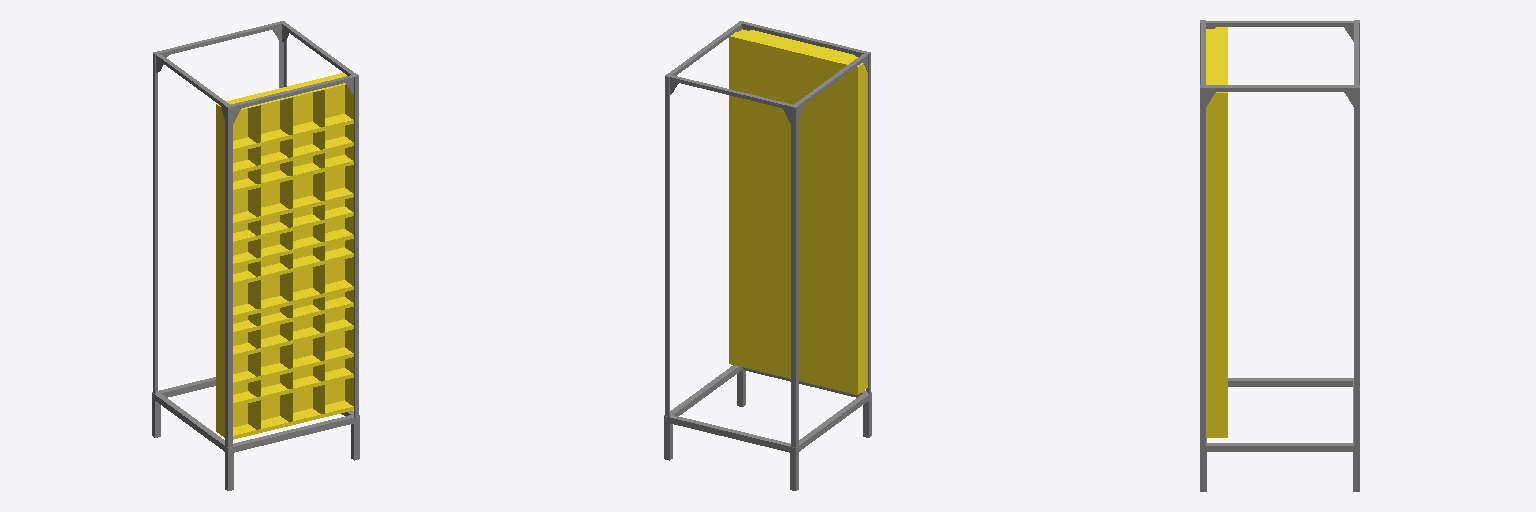
--- What the picture shows (computed from the rendered views, not written in the file) ---
The picture shows the robot from 3 angles, left to right: view 1: azimuth 30°, elevation 25°; view 2: azimuth 150°, elevation 25°; view 3: azimuth 270°, elevation 25°; orthographic projection.
Robot: pod1 — 380 links, 379 joints (379 fixed); root link pod_base_link; default pose: every joint at zero.
Visible links, largest first — view 1: pod_base_link, pod_bin_4m_back, pod_bin_3m_back, pod_bin_2m_back; view 2: pod_base_link, pod_bin_3m_back, pod_bin_4m_back, pod_bin_2m_back, pod_bin_1m_back, pod_bin_1f_back, pod_bin_1j_back, pod_bin_1a_back, pod_bin_4a_back, pod_bin_4f_back, pod_bin_4j_back, pod_bin_3a_back (+28 smaller); view 3: pod_base_link, pod_bin_4m_right, pod_bin_4j_right, pod_bin_4a_right, pod_bin_4f_right, pod_bin_4c_right.
Boxes of the visible links, x1,y1,x2,y2 form: pod_base_link: [152, 21, 359, 490]; pod_bin_4m_back: [325, 73, 344, 117]; pod_bin_3m_back: [291, 83, 312, 125]; pod_bin_2m_back: [250, 93, 279, 133]; pod_base_link: [664, 21, 871, 490]; pod_bin_3m_back: [761, 44, 792, 92]; pod_bin_4m_back: [729, 36, 760, 84]; pod_bin_2m_back: [793, 52, 824, 99]; pod_bin_1m_back: [825, 60, 857, 107]; pod_bin_1f_back: [825, 234, 857, 274]; pod_bin_1j_back: [825, 142, 857, 181]; pod_bin_1a_back: [825, 355, 857, 394]; pod_bin_4a_back: [729, 331, 760, 371]; pod_bin_4f_back: [729, 211, 760, 250]; pod_bin_4j_back: [729, 118, 760, 158]; pod_bin_3a_back: [761, 339, 790, 378]; pod_base_link: [1200, 20, 1359, 491]; pod_bin_4m_right: [1206, 93, 1226, 135]; pod_bin_4j_right: [1206, 179, 1226, 213]; pod_bin_4a_right: [1206, 404, 1226, 437]; pod_bin_4f_right: [1206, 277, 1226, 310]; pod_bin_4c_right: [1206, 352, 1226, 381].
Bounding box of the posed robot: 0.9398 × 0.9398 × 2.61 m (x, y, z).
1 mesh visuals loaded from 1 distinct referenced files (1 binary STL).

URDF robot description (pod1):
<?xml version="1.0" ?>
<!-- =================================================================================== -->
<!-- |    This document was autogenerated by xacro from pod1.xacro                     | -->
<!-- |    EDITING THIS FILE BY HAND IS NOT RECOMMENDED                                 | -->
<!-- =================================================================================== -->
<robot name="pod1">
  <material name="yellow_fabric">
    <color rgba="1 .91 .2 1"/>
  </material>
  <material name="aluminum">
    <color rgba=".6 .6 .6 1"/>
  </material>
  <link name="pod_base_link">
    <inertial>
      <mass value="30.0"/>
      <inertia ixx="0.0002835" ixy="0.0" ixz="0.0" iyy="0.0002835" iyz="0.0" izz="0.000324"/>
    </inertial>
    <visual>
      <origin rpy="0 0 0" xyz=".4699 .4699 1.303"/>
      <geometry>
        <mesh filename="package://tahoma_description/meshes/pod/pod_frame.stl"/>
      </geometry>
      <material name="aluminum"/>
    </visual>
    <collision>
      <origin rpy="0 0 0" xyz=".4699 .4699 1.303"/>
      <geometry>
        <mesh filename="package://tahoma_description/meshes/pod/pod_frame.stl"/>
      </geometry>
    </collision>
  </link>
  <link name="pod_brace"/>
  <joint name="pod_base_link_pod_brace_joint" type="fixed">
    <origin xyz="0 0 .294"/>
    <parent link="pod_base_link"/>
    <child link="pod_brace"/>
  </joint>
  <link name="pod_fabric_base"/>
  <joint name="pod_brace_pod_fabric_base" type="fixed">
    <origin xyz="0.01 0.01 .045"/>
    <parent link="pod_brace"/>
    <child link="pod_fabric_base"/>
  </joint>
  <link name="pod_shelf_a"/>
  <link name="pod_bin_1a"/>
  <link name="pod_bin_1a_bottom">
    <inertial>
      <mass value="0.01"/>
      <inertia ixx="0.0002835" ixy="0.0" ixz="0.0" iyy="0.0002835" iyz="0.0" izz="0.000324"/>
    </inertial>
    <visual>
      <origin xyz="0.1143 0.07619999999999999 -0.0005"/>
      <geometry>
        <box size="0.2286 0.15239999999999998 0.001"/>
      </geometry>
      <material name="yellow_fabric"/>
    </visual>
    <collision>
      <origin xyz="0.1143 0.07619999999999999 -0.0005"/>
      <geometry>
        <box size="0.2286 0.15239999999999998 0.001"/>
      </geometry>
    </collision>
  </link>
  <link name="pod_bin_1a_left">
    <inertial>
      <mass value="0.01"/>
      <inertia ixx="0.0002835" ixy="0.0" ixz="0.0" iyy="0.0002835" iyz="0.0" izz="0.000324"/>
    </inertial>
    <visual>
      <origin xyz="0.07619999999999999 0.111125 -0.0005"/>
      <geometry>
        <box size="0.15239999999999998 0.22225 0.001"/>
      </geometry>
      <material name="yellow_fabric"/>
    </visual>
    <collision>
      <origin xyz="0.07619999999999999 0.111125 -0.0005"/>
      <geometry>
        <box size="0.15239999999999998 0.22225 0.001"/>
      </geometry>
    </collision>
  </link>
  <link name="pod_bin_1a_right">
    <inertial>
      <mass value="0.01"/>
      <inertia ixx="0.0002835" ixy="0.0" ixz="0.0" iyy="0.0002835" iyz="0.0" izz="0.000324"/>
    </inertial>
    <visual>
      <origin xyz="0.07619999999999999 0.111125 -0.0005"/>
      <geometry>
        <box size="0.15239999999999998 0.22225 0.001"/>
      </geometry>
      <material name="yellow_fabric"/>
    </visual>
    <collision>
      <origin xyz="0.07619999999999999 0.111125 -0.0005"/>
      <geometry>
        <box size="0.15239999999999998 0.22225 0.001"/>
      </geometry>
    </collision>
  </link>
  <link name="pod_bin_1a_top">
    <inertial>
      <mass value="0.01"/>
      <inertia ixx="0.0002835" ixy="0.0" ixz="0.0" iyy="0.0002835" iyz="0.0" izz="0.000324"/>
    </inertial>
    <visual>
      <origin xyz="0.1143 0.07619999999999999 -0.0005"/>
      <geometry>
        <box size="0.2286 0.15239999999999998 0.001"/>
      </geometry>
      <material name="yellow_fabric"/>
    </visual>
    <collision>
      <origin xyz="0.1143 0.07619999999999999 -0.0005"/>
      <geometry>
        <box size="0.2286 0.15239999999999998 0.001"/>
      </geometry>
    </collision>
  </link>
  <link name="pod_bin_1a_back">
    <inertial>
      <mass value="0.01"/>
      <inertia ixx="0.0002835" ixy="0.0" ixz="0.0" iyy="0.0002835" iyz="0.0" izz="0.000324"/>
    </inertial>
    <visual>
      <origin xyz="0.1143 0.111125 -0.0005"/>
      <geometry>
        <box size="0.2286 0.22225 0.001"/>
      </geometry>
      <material name="yellow_fabric"/>
    </visual>
    <collision>
      <origin xyz="0.1143 0.111125 -0.0005"/>
      <geometry>
        <box size="0.2286 0.22225 0.001"/>
      </geometry>
    </collision>
  </link>
  <link name="pod_bin_1a_flap">
    <inertial>
      <mass value="0.01"/>
      <inertia ixx="0.0002835" ixy="0.0" ixz="0.0" iyy="0.0002835" iyz="0.0" izz="0.000324"/>
    </inertial>
    <visual>
      <origin xyz="0.1143 0.0127 -0.0005"/>
      <geometry>
        <box size="0.2286 0.0254 0.001"/>
      </geometry>
      <material name="yellow_fabric"/>
    </visual>
    <collision>
      <origin xyz="0.1143 0.0127 -0.0005"/>
      <geometry>
        <box size="0.2286 0.0254 0.001"/>
      </geometry>
    </collision>
  </link>
  <joint name="pod_bin_1a_pod_bin_1a_bottom" type="fixed">
    <parent link="pod_bin_1a"/>
    <child link="pod_bin_1a_bottom"/>
  </joint>
  <joint name="pod_bin_1a_pod_bin_1a_left" type="fixed">
    <origin rpy="1.5707963267948966 0 1.5707963267948966 " xyz="0 0 0"/>
    <parent link="pod_bin_1a"/>
    <child link="pod_bin_1a_left"/>
  </joint>
  <joint name="pod_bin_1a_pod_bin_1a_right" type="fixed">
    <origin rpy="1.5707963267948966 0 1.5707963267948966 " xyz="0.2286 0 0"/>
    <parent link="pod_bin_1a"/>
    <child link="pod_bin_1a_right"/>
  </joint>
  <joint name="pod_bin_1a_pod_bin_1a_top" type="fixed">
    <origin rpy="0 0 0" xyz="0 0 0.22225"/>
    <parent link="pod_bin_1a"/>
    <child link="pod_bin_1a_top"/>
  </joint>
  <joint name="pod_bin_1a_pod_bin_1a_back" type="fixed">
    <origin rpy="1.5707963267948966 0 0" xyz="0 0.15239999999999998 0"/>
    <parent link="pod_bin_1a"/>
    <child link="pod_bin_1a_back"/>
  </joint>
  <joint name="pod_bin_1a_pod_bin_1a_flap" type="fixed">
    <origin rpy="1.5707963267948966 0 0" xyz="0 0 0"/>
    <parent link="pod_bin_1a"/>
    <child link="pod_bin_1a_flap"/>
  </joint>
  <joint name="pod_shelf_a_pod_bin_1a_joint" type="fixed">
    <origin xyz="0.0 0 0"/>
    <parent link="pod_shelf_a"/>
    <child link="pod_bin_1a"/>
  </joint>
  <link name="pod_bin_2a"/>
  <link name="pod_bin_2a_bottom">
    <inertial>
      <mass value="0.01"/>
      <inertia ixx="0.0002835" ixy="0.0" ixz="0.0" iyy="0.0002835" iyz="0.0" izz="0.000324"/>
    </inertial>
    <visual>
      <origin xyz="0.1143 0.07619999999999999 -0.0005"/>
      <geometry>
        <box size="0.2286 0.15239999999999998 0.001"/>
      </geometry>
      <material name="yellow_fabric"/>
    </visual>
    <collision>
      <origin xyz="0.1143 0.07619999999999999 -0.0005"/>
      <geometry>
        <box size="0.2286 0.15239999999999998 0.001"/>
      </geometry>
    </collision>
  </link>
  <link name="pod_bin_2a_left">
    <inertial>
      <mass value="0.01"/>
      <inertia ixx="0.0002835" ixy="0.0" ixz="0.0" iyy="0.0002835" iyz="0.0" izz="0.000324"/>
    </inertial>
    <visual>
      <origin xyz="0.07619999999999999 0.111125 -0.0005"/>
      <geometry>
        <box size="0.15239999999999998 0.22225 0.001"/>
      </geometry>
      <material name="yellow_fabric"/>
    </visual>
    <collision>
      <origin xyz="0.07619999999999999 0.111125 -0.0005"/>
      <geometry>
        <box size="0.15239999999999998 0.22225 0.001"/>
      </geometry>
    </collision>
  </link>
  <link name="pod_bin_2a_right">
    <inertial>
      <mass value="0.01"/>
      <inertia ixx="0.0002835" ixy="0.0" ixz="0.0" iyy="0.0002835" iyz="0.0" izz="0.000324"/>
    </inertial>
    <visual>
      <origin xyz="0.07619999999999999 0.111125 -0.0005"/>
      <geometry>
        <box size="0.15239999999999998 0.22225 0.001"/>
      </geometry>
      <material name="yellow_fabric"/>
    </visual>
    <collision>
      <origin xyz="0.07619999999999999 0.111125 -0.0005"/>
      <geometry>
        <box size="0.15239999999999998 0.22225 0.001"/>
      </geometry>
    </collision>
  </link>
  <link name="pod_bin_2a_top">
    <inertial>
      <mass value="0.01"/>
      <inertia ixx="0.0002835" ixy="0.0" ixz="0.0" iyy="0.0002835" iyz="0.0" izz="0.000324"/>
    </inertial>
    <visual>
      <origin xyz="0.1143 0.07619999999999999 -0.0005"/>
      <geometry>
        <box size="0.2286 0.15239999999999998 0.001"/>
      </geometry>
      <material name="yellow_fabric"/>
    </visual>
    <collision>
      <origin xyz="0.1143 0.07619999999999999 -0.0005"/>
      <geometry>
        <box size="0.2286 0.15239999999999998 0.001"/>
      </geometry>
    </collision>
  </link>
  <link name="pod_bin_2a_back">
    <inertial>
      <mass value="0.01"/>
      <inertia ixx="0.0002835" ixy="0.0" ixz="0.0" iyy="0.0002835" iyz="0.0" izz="0.000324"/>
    </inertial>
    <visual>
      <origin xyz="0.1143 0.111125 -0.0005"/>
      <geometry>
        <box size="0.2286 0.22225 0.001"/>
      </geometry>
      <material name="yellow_fabric"/>
    </visual>
    <collision>
      <origin xyz="0.1143 0.111125 -0.0005"/>
      <geometry>
        <box size="0.2286 0.22225 0.001"/>
      </geometry>
    </collision>
  </link>
  <link name="pod_bin_2a_flap">
    <inertial>
      <mass value="0.01"/>
      <inertia ixx="0.0002835" ixy="0.0" ixz="0.0" iyy="0.0002835" iyz="0.0" izz="0.000324"/>
    </inertial>
    <visual>
      <origin xyz="0.1143 0.0127 -0.0005"/>
      <geometry>
        <box size="0.2286 0.0254 0.001"/>
      </geometry>
      <material name="yellow_fabric"/>
    </visual>
    <collision>
      <origin xyz="0.1143 0.0127 -0.0005"/>
      <geometry>
        <box size="0.2286 0.0254 0.001"/>
      </geometry>
    </collision>
  </link>
  <joint name="pod_bin_2a_pod_bin_2a_bottom" type="fixed">
    <parent link="pod_bin_2a"/>
    <child link="pod_bin_2a_bottom"/>
  </joint>
  <joint name="pod_bin_2a_pod_bin_2a_left" type="fixed">
    <origin rpy="1.5707963267948966 0 1.5707963267948966 " xyz="0 0 0"/>
    <parent link="pod_bin_2a"/>
    <child link="pod_bin_2a_left"/>
  </joint>
  <joint name="pod_bin_2a_pod_bin_2a_right" type="fixed">
    <origin rpy="1.5707963267948966 0 1.5707963267948966 " xyz="0.2286 0 0"/>
    <parent link="pod_bin_2a"/>
    <child link="pod_bin_2a_right"/>
  </joint>
  <joint name="pod_bin_2a_pod_bin_2a_top" type="fixed">
    <origin rpy="0 0 0" xyz="0 0 0.22225"/>
    <parent link="pod_bin_2a"/>
    <child link="pod_bin_2a_top"/>
  </joint>
  <joint name="pod_bin_2a_pod_bin_2a_back" type="fixed">
    <origin rpy="1.5707963267948966 0 0" xyz="0 0.15239999999999998 0"/>
    <parent link="pod_bin_2a"/>
    <child link="pod_bin_2a_back"/>
  </joint>
  <joint name="pod_bin_2a_pod_bin_2a_flap" type="fixed">
    <origin rpy="1.5707963267948966 0 0" xyz="0 0 0"/>
    <parent link="pod_bin_2a"/>
    <child link="pod_bin_2a_flap"/>
  </joint>
  <joint name="pod_shelf_a_pod_bin_2a_joint" type="fixed">
    <origin xyz="0.2286 0 0"/>
    <parent link="pod_shelf_a"/>
    <child link="pod_bin_2a"/>
  </joint>
  <link name="pod_bin_3a"/>
  <link name="pod_bin_3a_bottom">
    <inertial>
      <mass value="0.01"/>
      <inertia ixx="0.0002835" ixy="0.0" ixz="0.0" iyy="0.0002835" iyz="0.0" izz="0.000324"/>
    </inertial>
    <visual>
      <origin xyz="0.1143 0.07619999999999999 -0.0005"/>
      <geometry>
        <box size="0.2286 0.15239999999999998 0.001"/>
      </geometry>
      <material name="yellow_fabric"/>
    </visual>
    <collision>
      <origin xyz="0.1143 0.07619999999999999 -0.0005"/>
      <geometry>
        <box size="0.2286 0.15239999999999998 0.001"/>
      </geometry>
    </collision>
  </link>
  <link name="pod_bin_3a_left">
    <inertial>
      <mass value="0.01"/>
      <inertia ixx="0.0002835" ixy="0.0" ixz="0.0" iyy="0.0002835" iyz="0.0" izz="0.000324"/>
    </inertial>
    <visual>
      <origin xyz="0.07619999999999999 0.111125 -0.0005"/>
      <geometry>
        <box size="0.15239999999999998 0.22225 0.001"/>
      </geometry>
      <material name="yellow_fabric"/>
    </visual>
    <collision>
      <origin xyz="0.07619999999999999 0.111125 -0.0005"/>
      <geometry>
        <box size="0.15239999999999998 0.22225 0.001"/>
      </geometry>
    </collision>
  </link>
  <link name="pod_bin_3a_right">
    <inertial>
      <mass value="0.01"/>
      <inertia ixx="0.0002835" ixy="0.0" ixz="0.0" iyy="0.0002835" iyz="0.0" izz="0.000324"/>
    </inertial>
    <visual>
      <origin xyz="0.07619999999999999 0.111125 -0.0005"/>
      <geometry>
        <box size="0.15239999999999998 0.22225 0.001"/>
      </geometry>
      <material name="yellow_fabric"/>
    </visual>
    <collision>
      <origin xyz="0.07619999999999999 0.111125 -0.0005"/>
      <geometry>
        <box size="0.15239999999999998 0.22225 0.001"/>
      </geometry>
    </collision>
  </link>
  <link name="pod_bin_3a_top">
    <inertial>
      <mass value="0.01"/>
      <inertia ixx="0.0002835" ixy="0.0" ixz="0.0" iyy="0.0002835" iyz="0.0" izz="0.000324"/>
    </inertial>
    <visual>
      <origin xyz="0.1143 0.07619999999999999 -0.0005"/>
      <geometry>
        <box size="0.2286 0.15239999999999998 0.001"/>
      </geometry>
      <material name="yellow_fabric"/>
    </visual>
    <collision>
      <origin xyz="0.1143 0.07619999999999999 -0.0005"/>
      <geometry>
        <box size="0.2286 0.15239999999999998 0.001"/>
      </geometry>
    </collision>
  </link>
  <link name="pod_bin_3a_back">
    <inertial>
      <mass value="0.01"/>
      <inertia ixx="0.0002835" ixy="0.0" ixz="0.0" iyy="0.0002835" iyz="0.0" izz="0.000324"/>
    </inertial>
    <visual>
      <origin xyz="0.1143 0.111125 -0.0005"/>
      <geometry>
        <box size="0.2286 0.22225 0.001"/>
      </geometry>
      <material name="yellow_fabric"/>
    </visual>
    <collision>
      <origin xyz="0.1143 0.111125 -0.0005"/>
      <geometry>
        <box size="0.2286 0.22225 0.001"/>
      </geometry>
    </collision>
  </link>
  <link name="pod_bin_3a_flap">
    <inertial>
      <mass value="0.01"/>
      <inertia ixx="0.0002835" ixy="0.0" ixz="0.0" iyy="0.0002835" iyz="0.0" izz="0.000324"/>
    </inertial>
    <visual>
      <origin xyz="0.1143 0.0127 -0.0005"/>
      <geometry>
        <box size="0.2286 0.0254 0.001"/>
      </geometry>
      <material name="yellow_fabric"/>
    </visual>
    <collision>
      <origin xyz="0.1143 0.0127 -0.0005"/>
      <geometry>
        <box size="0.2286 0.0254 0.001"/>
      </geometry>
    </collision>
  </link>
  <joint name="pod_bin_3a_pod_bin_3a_bottom" type="fixed">
    <parent link="pod_bin_3a"/>
    <child link="pod_bin_3a_bottom"/>
  </joint>
  <joint name="pod_bin_3a_pod_bin_3a_left" type="fixed">
    <origin rpy="1.5707963267948966 0 1.5707963267948966 " xyz="0 0 0"/>
    <parent link="pod_bin_3a"/>
    <child link="pod_bin_3a_left"/>
  </joint>
  <joint name="pod_bin_3a_pod_bin_3a_right" type="fixed">
    <origin rpy="1.5707963267948966 0 1.5707963267948966 " xyz="0.2286 0 0"/>
    <parent link="pod_bin_3a"/>
    <child link="pod_bin_3a_right"/>
  </joint>
  <joint name="pod_bin_3a_pod_bin_3a_top" type="fixed">
    <origin rpy="0 0 0" xyz="0 0 0.22225"/>
    <parent link="pod_bin_3a"/>
    <child link="pod_bin_3a_top"/>
  </joint>
  <joint name="pod_bin_3a_pod_bin_3a_back" type="fixed">
    <origin rpy="1.5707963267948966 0 0" xyz="0 0.15239999999999998 0"/>
    <parent link="pod_bin_3a"/>
    <child link="pod_bin_3a_back"/>
  </joint>
  <joint name="pod_bin_3a_pod_bin_3a_flap" type="fixed">
    <origin rpy="1.5707963267948966 0 0" xyz="0 0 0"/>
    <parent link="pod_bin_3a"/>
    <child link="pod_bin_3a_flap"/>
  </joint>
  <joint name="pod_shelf_a_pod_bin_3a_joint" type="fixed">
    <origin xyz="0.4572 0 0"/>
    <parent link="pod_shelf_a"/>
    <child link="pod_bin_3a"/>
  </joint>
  <link name="pod_bin_4a"/>
  <link name="pod_bin_4a_bottom">
    <inertial>
      <mass value="0.01"/>
      <inertia ixx="0.0002835" ixy="0.0" ixz="0.0" iyy="0.0002835" iyz="0.0" izz="0.000324"/>
    </inertial>
    <visual>
      <origin xyz="0.1143 0.07619999999999999 -0.0005"/>
      <geometry>
        <box size="0.2286 0.15239999999999998 0.001"/>
      </geometry>
      <material name="yellow_fabric"/>
    </visual>
    <collision>
      <origin xyz="0.1143 0.07619999999999999 -0.0005"/>
      <geometry>
        <box size="0.2286 0.15239999999999998 0.001"/>
      </geometry>
    </collision>
  </link>
  <link name="pod_bin_4a_left">
    <inertial>
      <mass value="0.01"/>
      <inertia ixx="0.0002835" ixy="0.0" ixz="0.0" iyy="0.0002835" iyz="0.0" izz="0.000324"/>
    </inertial>
    <visual>
      <origin xyz="0.07619999999999999 0.111125 -0.0005"/>
      <geometry>
        <box size="0.15239999999999998 0.22225 0.001"/>
      </geometry>
      <material name="yellow_fabric"/>
    </visual>
    <collision>
      <origin xyz="0.07619999999999999 0.111125 -0.0005"/>
      <geometry>
        <box size="0.15239999999999998 0.22225 0.001"/>
      </geometry>
    </collision>
  </link>
  <link name="pod_bin_4a_right">
    <inertial>
      <mass value="0.01"/>
      <inertia ixx="0.0002835" ixy="0.0" ixz="0.0" iyy="0.0002835" iyz="0.0" izz="0.000324"/>
    </inertial>
    <visual>
      <origin xyz="0.07619999999999999 0.111125 -0.0005"/>
      <geometry>
        <box size="0.15239999999999998 0.22225 0.001"/>
      </geometry>
      <material name="yellow_fabric"/>
    </visual>
    <collision>
      <origin xyz="0.07619999999999999 0.111125 -0.0005"/>
      <geometry>
        <box size="0.15239999999999998 0.22225 0.001"/>
      </geometry>
    </collision>
  </link>
  <link name="pod_bin_4a_top">
    <inertial>
      <mass value="0.01"/>
      <inertia ixx="0.0002835" ixy="0.0" ixz="0.0" iyy="0.0002835" iyz="0.0" izz="0.000324"/>
    </inertial>
    <visual>
      <origin xyz="0.1143 0.07619999999999999 -0.0005"/>
      <geometry>
        <box size="0.2286 0.15239999999999998 0.001"/>
      </geometry>
      <material name="yellow_fabric"/>
    </visual>
    <collision>
      <origin xyz="0.1143 0.07619999999999999 -0.0005"/>
      <geometry>
        <box size="0.2286 0.15239999999999998 0.001"/>
      </geometry>
    </collision>
  </link>
  <link name="pod_bin_4a_back">
    <inertial>
      <mass value="0.01"/>
      <inertia ixx="0.0002835" ixy="0.0" ixz="0.0" iyy="0.0002835" iyz="0.0" izz="0.000324"/>
    </inertial>
    <visual>
      <origin xyz="0.1143 0.111125 -0.0005"/>
      <geometry>
        <box size="0.2286 0.22225 0.001"/>
      </geometry>
      <material name="yellow_fabric"/>
    </visual>
    <collision>
      <origin xyz="0.1143 0.111125 -0.0005"/>
      <geometry>
        <box size="0.2286 0.22225 0.001"/>
      </geometry>
    </collision>
  </link>
  <link name="pod_bin_4a_flap">
    <inertial>
      <mass value="0.01"/>
      <inertia ixx="0.0002835" ixy="0.0" ixz="0.0" iyy="0.0002835" iyz="0.0" izz="0.000324"/>
    </inertial>
    <visual>
      <origin xyz="0.1143 0.0127 -0.0005"/>
      <geometry>
        <box size="0.2286 0.0254 0.001"/>
      </geometry>
      <material name="yellow_fabric"/>
    </visual>
    <collision>
      <origin xyz="0.1143 0.0127 -0.0005"/>
      <geometry>
        <box size="0.2286 0.0254 0.001"/>
      </geometry>
    </collision>
  </link>
  <joint name="pod_bin_4a_pod_bin_4a_bottom" type="fixed">
    <parent link="pod_bin_4a"/>
    <child link="pod_bin_4a_bottom"/>
  </joint>
  <joint name="pod_bin_4a_pod_bin_4a_left" type="fixed">
    <origin rpy="1.5707963267948966 0 1.5707963267948966 " xyz="0 0 0"/>
    <parent link="pod_bin_4a"/>
    <child link="pod_bin_4a_left"/>
  </joint>
  <joint name="pod_bin_4a_pod_bin_4a_right" type="fixed">
    <origin rpy="1.5707963267948966 0 1.5707963267948966 " xyz="0.2286 0 0"/>
    <parent link="pod_bin_4a"/>
    <child link="pod_bin_4a_right"/>
  </joint>
  <joint name="pod_bin_4a_pod_bin_4a_top" type="fixed">
    <origin rpy="0 0 0" xyz="0 0 0.22225"/>
    <parent link="pod_bin_4a"/>
    <child link="pod_bin_4a_top"/>
  </joint>
  <joint name="pod_bin_4a_pod_bin_4a_back" type="fixed">
    <origin rpy="1.5707963267948966 0 0" xyz="0 0.15239999999999998 0"/>
    <parent link="pod_bin_4a"/>
    <child link="pod_bin_4a_back"/>
  </joint>
  <joint name="pod_bin_4a_pod_bin_4a_flap" type="fixed">
    <origin rpy="1.5707963267948966 0 0" xyz="0 0 0"/>
    <parent link="pod_bin_4a"/>
    <child link="pod_bin_4a_flap"/>
  </joint>
  <joint name="pod_shelf_a_pod_bin_4a_joint" type="fixed">
    <origin xyz="0.6858 0 0"/>
    <parent link="pod_shelf_a"/>
    <child link="pod_bin_4a"/>
  </joint>
  <joint name="pod_fabric_base_pod_shelf_a_joint" type="fixed">
    <origin xyz="0 0 0"/>
    <parent link="pod_fabric_base"/>
    <child link="pod_shelf_a"/>
  </joint>
  <link name="pod_shelf_b"/>
  <link name="pod_bin_1b"/>
  <link name="pod_bin_1b_bottom">
    <inertial>
      <mass value="0.01"/>
      <inertia ixx="0.0002835" ixy="0.0" ixz="0.0" iyy="0.0002835" iyz="0.0" izz="0.000324"/>
    </inertial>
    <visual>
      <origin xyz="0.1143 0.07619999999999999 -0.0005"/>
      <geometry>
        <box size="0.2286 0.15239999999999998 0.001"/>
      </geometry>
      <material name="yellow_fabric"/>
    </visual>
    <collision>
      <origin xyz="0.1143 0.07619999999999999 -0.0005"/>
      <geometry>
        <box size="0.2286 0.15239999999999998 0.001"/>
      </geometry>
    </collision>
  </link>
  <link name="pod_bin_1b_left">
    <inertial>
      <mass value="0.01"/>
      <inertia ixx="0.0002835" ixy="0.0" ixz="0.0" iyy="0.0002835" iyz="0.0" izz="0.000324"/>
    </inertial>
    <visual>
      <origin xyz="0.07619999999999999 0.06985 -0.0005"/>
      <geometry>
        <box size="0.15239999999999998 0.1397 0.001"/>
      </geometry>
      <material name="yellow_fabric"/>
    </visual>
    <collision>
      <origin xyz="0.07619999999999999 0.06985 -0.0005"/>
      <geometry>
        <box size="0.15239999999999998 0.1397 0.001"/>
      </geometry>
    </collision>
  </link>
  <link name="pod_bin_1b_right">
    <inertial>
      <mass value="0.01"/>
      <inertia ixx="0.0002835" ixy="0.0" ixz="0.0" iyy="0.0002835" iyz="0.0" izz="0.000324"/>
    </inertial>
    <visual>
      <origin xyz="0.07619999999999999 0.06985 -0.0005"/>
      <geometry>
        <box size="0.15239999999999998 0.1397 0.001"/>
      </geometry>
      <material name="yellow_fabric"/>
    </visual>
    <collision>
      <origin xyz="0.07619999999999999 0.06985 -0.0005"/>
      <geometry>
        <box size="0.15239999999999998 0.1397 0.001"/>
      </geometry>
    </collision>
  </link>
  <link name="pod_bin_1b_top">
    <inertial>
      <mass value="0.01"/>
      <inertia ixx="0.0002835" ixy="0.0" ixz="0.0" iyy="0.0002835" iyz="0.0" izz="0.000324"/>
    </inertial>
    <visual>
      <origin xyz="0.1143 0.07619999999999999 -0.0005"/>
      <geometry>
        <box size="0.2286 0.15239999999999998 0.001"/>
      </geometry>
      <material name="yellow_fabric"/>
    </visual>
    <collision>
      <origin xyz="0.1143 0.07619999999999999 -0.0005"/>
      <geometry>
        <box size="0.2286 0.15239999999999998 0.001"/>
      </geometry>
    </collision>
  </link>
  <link name="pod_bin_1b_back">
    <inertial>
      <mass value="0.01"/>
      <inertia ixx="0.0002835" ixy="0.0" ixz="0.0" iyy="0.0002835" iyz="0.0" izz="0.000324"/>
    </inertial>
    <visual>
      <origin xyz="0.1143 0.06985 -0.0005"/>
      <geometry>
        <box size="0.2286 0.1397 0.001"/>
      </geometry>
      <material name="yellow_fabric"/>
    </visual>
    <collision>
      <origin xyz="0.1143 0.06985 -0.0005"/>
      <geometry>
        <box size="0.2286 0.1397 0.001"/>
      </geometry>
    </collision>
  </link>
  <link name="pod_bin_1b_flap">
    <inertial>
      <mass value="0.01"/>
      <inertia ixx="0.0002835" ixy="0.0" ixz="0.0" iyy="0.0002835" iyz="0.0" izz="0.000324"/>
    </inertial>
    <visual>
      <origin xyz="0.1143 0.0127 -0.0005"/>
      <geometry>
        <box size="0.2286 0.0254 0.001"/>
      </geometry>
      <material name="yellow_fabric"/>
    </visual>
    <collision>
      <origin xyz="0.1143 0.0127 -0.0005"/>
      <geometry>
        <box size="0.2286 0.0254 0.001"/>
      </geometry>
    </collision>
  </link>
  <joint name="pod_bin_1b_pod_bin_1b_bottom" type="fixed">
    <parent link="pod_bin_1b"/>
    <child link="pod_bin_1b_bottom"/>
  </joint>
  <joint name="pod_bin_1b_pod_bin_1b_left" type="fixed">
    <origin rpy="1.5707963267948966 0 1.5707963267948966 " xyz="0 0 0"/>
    <parent link="pod_bin_1b"/>
    <child link="pod_bin_1b_left"/>
  </joint>
  <joint name="pod_bin_1b_pod_bin_1b_right" type="fixed">
    <origin rpy="1.5707963267948966 0 1.5707963267948966 " xyz="0.2286 0 0"/>
    <parent link="pod_bin_1b"/>
    <child link="pod_bin_1b_right"/>
  </joint>
  <joint name="pod_bin_1b_pod_bin_1b_top" type="fixed">
    <origin rpy="0 0 0" xyz="0 0 0.1397"/>
    <parent link="pod_bin_1b"/>
    <child link="pod_bin_1b_top"/>
  </joint>
  <joint name="pod_bin_1b_pod_bin_1b_back" type="fixed">
    <origin rpy="1.5707963267948966 0 0" xyz="0 0.15239999999999998 0"/>
    <parent link="pod_bin_1b"/>
    <child link="pod_bin_1b_back"/>
  </joint>
  <joint name="pod_bin_1b_pod_bin_1b_flap" type="fixed">
    <origin rpy="1.5707963267948966 0 0" xyz="0 0 0"/>
    <parent link="pod_bin_1b"/>
    <child link="pod_bin_1b_flap"/>
  </joint>
  <joint name="pod_shelf_b_pod_bin_1b_joint" type="fixed">
    <origin xyz="0.0 0 0"/>
    <parent link="pod_shelf_b"/>
    <child link="pod_bin_1b"/>
  </joint>
  <link name="pod_bin_2b"/>
  <link name="pod_bin_2b_bottom">
    <inertial>
      <mass value="0.01"/>
      <inertia ixx="0.0002835" ixy="0.0" ixz="0.0" iyy="0.0002835" iyz="0.0" izz="0.000324"/>
    </inertial>
    <visual>
      <origin xyz="0.1143 0.07619999999999999 -0.0005"/>
      <geometry>
        <box size="0.2286 0.15239999999999998 0.001"/>
      </geometry>
      <material name="yellow_fabric"/>
    </visual>
    <collision>
      <origin xyz="0.1143 0.07619999999999999 -0.0005"/>
      <geometry>
        <box size="0.2286 0.15239999999999998 0.001"/>
      </geometry>
    </collision>
  </link>
  <link name="pod_bin_2b_left">
    <inertial>
      <mass value="0.01"/>
      <inertia ixx="0.0002835" ixy="0.0" ixz="0.0" iyy="0.0002835" iyz="0.0" izz="0.000324"/>
    </inertial>
    <visual>
      <origin xyz="0.07619999999999999 0.06985 -0.0005"/>
      <geometry>
        <box size="0.15239999999999998 0.1397 0.001"/>
      </geometry>
      <material name="yellow_fabric"/>
    </visual>
    <collision>
      <origin xyz="0.07619999999999999 0.06985 -0.0005"/>
      <geometry>
        <box size="0.15239999999999998 0.1397 0.001"/>
      </geometry>
    </collision>
  </link>
  <link name="pod_bin_2b_right">
    <inertial>
      <mass value="0.01"/>
      <inertia ixx="0.0002835" ixy="0.0" ixz="0.0" iyy="0.0002835" iyz="0.0" izz="0.000324"/>
    </inertial>
    <visual>
      <origin xyz="0.07619999999999999 0.06985 -0.0005"/>
      <geometry>
        <box size="0.15239999999999998 0.1397 0.001"/>
      </geometry>
      <material name="yellow_fabric"/>
    </visual>
    <collision>
      <origin xyz="0.07619999999999999 0.06985 -0.0005"/>
      <geometry>
        <box size="0.15239999999999998 0.1397 0.001"/>
      </geometry>
    </collision>
  </link>
  <link name="pod_bin_2b_top">
    <inertial>
      <mass value="0.01"/>
      <inertia ixx="0.0002835" ixy="0.0" ixz="0.0" iyy="0.0002835" iyz="0.0" izz="0.000324"/>
    </inertial>
    <visual>
      <origin xyz="0.1143 0.07619999999999999 -0.0005"/>
      <geometry>
        <box size="0.2286 0.15239999999999998 0.001"/>
      </geometry>
      <material name="yellow_fabric"/>
    </visual>
    <collision>
      <origin xyz="0.1143 0.07619999999999999 -0.0005"/>
      <geometry>
        <box size="0.2286 0.15239999999999998 0.001"/>
      </geometry>
    </collision>
  </link>
  <link name="pod_bin_2b_back">
    <inertial>
      <mass value="0.01"/>
      <inertia ixx="0.0002835" ixy="0.0" ixz="0.0" iyy="0.0002835" iyz="0.0" izz="0.000324"/>
    </inertial>
    <visual>
      <origin xyz="0.1143 0.06985 -0.0005"/>
      <geometry>
        <box size="0.2286 0.1397 0.001"/>
      </geometry>
      <material name="yellow_fabric"/>
    </visual>
    <collision>
      <origin xyz="0.1143 0.06985 -0.0005"/>
      <geometry>
        <box size="0.2286 0.1397 0.001"/>
      </geometry>
    </collision>
  </link>
  <link name="pod_bin_2b_flap">
    <inertial>
      <mass value="0.01"/>
      <inertia ixx="0.0002835" ixy="0.0" ixz="0.0" iyy="0.0002835" iyz="0.0" izz="0.000324"/>
    </inertial>
    <visual>
      <origin xyz="0.1143 0.0127 -0.0005"/>
      <geometry>
        <box size="0.2286 0.0254 0.001"/>
      </geometry>
      <material name="yellow_fabric"/>
    </visual>
    <collision>
      <origin xyz="0.1143 0.0127 -0.0005"/>
      <geometry>
        <box size="0.2286 0.0254 0.001"/>
      </geometry>
    </collision>
  </link>
  <joint name="pod_bin_2b_pod_bin_2b_bottom" type="fixed">
    <parent link="pod_bin_2b"/>
    <child link="pod_bin_2b_bottom"/>
  </joint>
  <joint name="pod_bin_2b_pod_bin_2b_left" type="fixed">
    <origin rpy="1.5707963267948966 0 1.5707963267948966 " xyz="0 0 0"/>
    <parent link="pod_bin_2b"/>
    <child link="pod_bin_2b_left"/>
  </joint>
  <joint name="pod_bin_2b_pod_bin_2b_right" type="fixed">
    <origin rpy="1.5707963267948966 0 1.5707963267948966 " xyz="0.2286 0 0"/>
    <parent link="pod_bin_2b"/>
    <child link="pod_bin_2b_right"/>
  </joint>
  <joint name="pod_bin_2b_pod_bin_2b_top" type="fixed">
    <origin rpy="0 0 0" xyz="0 0 0.1397"/>
    <parent link="pod_bin_2b"/>
    <child link="pod_bin_2b_top"/>
  </joint>
  <joint name="pod_bin_2b_pod_bin_2b_back" type="fixed">
    <origin rpy="1.5707963267948966 0 0" xyz="0 0.15239999999999998 0"/>
    <parent link="pod_bin_2b"/>
    <child link="pod_bin_2b_back"/>
  </joint>
  <joint name="pod_bin_2b_pod_bin_2b_flap" type="fixed">
    <origin rpy="1.5707963267948966 0 0" xyz="0 0 0"/>
    <parent link="pod_bin_2b"/>
    <child link="pod_bin_2b_flap"/>
  </joint>
  <joint name="pod_shelf_b_pod_bin_2b_joint" type="fixed">
    <origin xyz="0.2286 0 0"/>
    <parent link="pod_shelf_b"/>
    <child link="pod_bin_2b"/>
  </joint>
  <link name="pod_bin_3b"/>
  <link name="pod_bin_3b_bottom">
    <inertial>
      <mass value="0.01"/>
      <inertia ixx="0.0002835" ixy="0.0" ixz="0.0" iyy="0.0002835" iyz="0.0" izz="0.000324"/>
    </inertial>
    <visual>
      <origin xyz="0.1143 0.07619999999999999 -0.0005"/>
      <geometry>
        <box size="0.2286 0.15239999999999998 0.001"/>
      </geometry>
      <material name="yellow_fabric"/>
    </visual>
    <collision>
      <origin xyz="0.1143 0.07619999999999999 -0.0005"/>
      <geometry>
        <box size="0.2286 0.15239999999999998 0.001"/>
      </geometry>
    </collision>
  </link>
  <link name="pod_bin_3b_left">
    <inertial>
      <mass value="0.01"/>
      <inertia ixx="0.0002835" ixy="0.0" ixz="0.0" iyy="0.0002835" iyz="0.0" izz="0.000324"/>
    </inertial>
    <visual>
      <origin xyz="0.07619999999999999 0.06985 -0.0005"/>
      <geometry>
        <box size="0.15239999999999998 0.1397 0.001"/>
      </geometry>
      <material name="yellow_fabric"/>
    </visual>
    <collision>
      <origin xyz="0.07619999999999999 0.06985 -0.0005"/>
      <geometry>
        <box size="0.15239999999999998 0.1397 0.001"/>
      </geometry>
    </collision>
  </link>
  <link name="pod_bin_3b_right">
    <inertial>
      <mass value="0.01"/>
      <inertia ixx="0.0002835" ixy="0.0" ixz="0.0" iyy="0.0002835" iyz="0.0" izz="0.000324"/>
    </inertial>
    <visual>
      <origin xyz="0.07619999999999999 0.06985 -0.0005"/>
      <geometry>
        <box size="0.15239999999999998 0.1397 0.001"/>
      </geometry>
      <material name="yellow_fabric"/>
    </visual>
    <collision>
      <origin xyz="0.07619999999999999 0.06985 -0.0005"/>
      <geometry>
        <box size="0.15239999999999998 0.1397 0.001"/>
      </geometry>
    </collision>
  </link>
  <link name="pod_bin_3b_top">
    <inertial>
      <mass value="0.01"/>
      <inertia ixx="0.0002835" ixy="0.0" ixz="0.0" iyy="0.0002835" iyz="0.0" izz="0.000324"/>
    </inertial>
    <visual>
      <origin xyz="0.1143 0.07619999999999999 -0.0005"/>
      <geometry>
        <box size="0.2286 0.15239999999999998 0.001"/>
      </geometry>
      <material name="yellow_fabric"/>
    </visual>
    <collision>
      <origin xyz="0.1143 0.07619999999999999 -0.0005"/>
      <geometry>
        <box size="0.2286 0.15239999999999998 0.001"/>
      </geometry>
    </collision>
  </link>
  <link name="pod_bin_3b_back">
    <inertial>
      <mass value="0.01"/>
      <inertia ixx="0.0002835" ixy="0.0" ixz="0.0" iyy="0.0002835" iyz="0.0" izz="0.000324"/>
    </inertial>
    <visual>
      <origin xyz="0.1143 0.06985 -0.0005"/>
      <geometry>
        <box size="0.2286 0.1397 0.001"/>
      </geometry>
      <material name="yellow_fabric"/>
    </visual>
    <collision>
      <origin xyz="0.1143 0.06985 -0.0005"/>
      <geometry>
        <box size="0.2286 0.1397 0.001"/>
      </geometry>
    </collision>
  </link>
  <link name="pod_bin_3b_flap">
    <inertial>
      <mass value="0.01"/>
      <inertia ixx="0.0002835" ixy="0.0" ixz="0.0" iyy="0.0002835" iyz="0.0" izz="0.000324"/>
    </inertial>
    <visual>
      <origin xyz="0.1143 0.0127 -0.0005"/>
      <geometry>
        <box size="0.2286 0.0254 0.001"/>
      </geometry>
      <material name="yellow_fabric"/>
    </visual>
    <collision>
      <origin xyz="0.1143 0.0127 -0.0005"/>
      <geometry>
        <box size="0.2286 0.0254 0.001"/>
      </geometry>
    </collision>
  </link>
  <joint name="pod_bin_3b_pod_bin_3b_bottom" type="fixed">
    <parent link="pod_bin_3b"/>
    <child link="pod_bin_3b_bottom"/>
  </joint>
  <joint name="pod_bin_3b_pod_bin_3b_left" type="fixed">
    <origin rpy="1.5707963267948966 0 1.5707963267948966 " xyz="0 0 0"/>
    <parent link="pod_bin_3b"/>
    <child link="pod_bin_3b_left"/>
  </joint>
  <joint name="pod_bin_3b_pod_bin_3b_right" type="fixed">
    <origin rpy="1.5707963267948966 0 1.5707963267948966 " xyz="0.2286 0 0"/>
    <parent link="pod_bin_3b"/>
    <child link="pod_bin_3b_right"/>
  </joint>
  <joint name="pod_bin_3b_pod_bin_3b_top" type="fixed">
    <origin rpy="0 0 0" xyz="0 0 0.1397"/>
    <parent link="pod_bin_3b"/>
    <child link="pod_bin_3b_top"/>
  </joint>
  <joint name="pod_bin_3b_pod_bin_3b_back" type="fixed">
    <origin rpy="1.5707963267948966 0 0" xyz="0 0.15239999999999998 0"/>
    <parent link="pod_bin_3b"/>
    <child link="pod_bin_3b_back"/>
  </joint>
  <joint name="pod_bin_3b_pod_bin_3b_flap" type="fixed">
    <origin rpy="1.5707963267948966 0 0" xyz="0 0 0"/>
    <parent link="pod_bin_3b"/>
    <child link="pod_bin_3b_flap"/>
  </joint>
  <joint name="pod_shelf_b_pod_bin_3b_joint" type="fixed">
    <origin xyz="0.4572 0 0"/>
    <parent link="pod_shelf_b"/>
    <child link="pod_bin_3b"/>
  </joint>
  <link name="pod_bin_4b"/>
  <link name="pod_bin_4b_bottom">
    <inertial>
      <mass value="0.01"/>
      <inertia ixx="0.0002835" ixy="0.0" ixz="0.0" iyy="0.0002835" iyz="0.0" izz="0.000324"/>
    </inertial>
    <visual>
      <origin xyz="0.1143 0.07619999999999999 -0.0005"/>
      <geometry>
        <box size="0.2286 0.15239999999999998 0.001"/>
      </geometry>
      <material name="yellow_fabric"/>
    </visual>
    <collision>
      <origin xyz="0.1143 0.07619999999999999 -0.0005"/>
      <geometry>
        <box size="0.2286 0.15239999999999998 0.001"/>
      </geometry>
    </collision>
  </link>
  <link name="pod_bin_4b_left">
    <inertial>
      <mass value="0.01"/>
      <inertia ixx="0.0002835" ixy="0.0" ixz="0.0" iyy="0.0002835" iyz="0.0" izz="0.000324"/>
    </inertial>
    <visual>
      <origin xyz="0.07619999999999999 0.06985 -0.0005"/>
      <geometry>
        <box size="0.15239999999999998 0.1397 0.001"/>
      </geometry>
      <material name="yellow_fabric"/>
    </visual>
    <collision>
      <origin xyz="0.07619999999999999 0.06985 -0.0005"/>
      <geometry>
        <box size="0.15239999999999998 0.1397 0.001"/>
      </geometry>
    </collision>
  </link>
  <link name="pod_bin_4b_right">
    <inertial>
      <mass value="0.01"/>
      <inertia ixx="0.0002835" ixy="0.0" ixz="0.0" iyy="0.0002835" iyz="0.0" izz="0.000324"/>
    </inertial>
    <visual>
      <origin xyz="0.07619999999999999 0.06985 -0.0005"/>
      <geometry>
        <box size="0.15239999999999998 0.1397 0.001"/>
      </geometry>
      <material name="yellow_fabric"/>
    </visual>
    <collision>
      <origin xyz="0.07619999999999999 0.06985 -0.0005"/>
      <geometry>
        <box size="0.15239999999999998 0.1397 0.001"/>
      </geometry>
    </collision>
  </link>
  <link name="pod_bin_4b_top">
    <inertial>
      <mass value="0.01"/>
      <inertia ixx="0.0002835" ixy="0.0" ixz="0.0" iyy="0.0002835" iyz="0.0" izz="0.000324"/>
    </inertial>
    <visual>
      <origin xyz="0.1143 0.07619999999999999 -0.0005"/>
      <geometry>
        <box size="0.2286 0.15239999999999998 0.001"/>
      </geometry>
      <material name="yellow_fabric"/>
    </visual>
    <collision>
      <origin xyz="0.1143 0.07619999999999999 -0.0005"/>
      <geometry>
        <box size="0.2286 0.15239999999999998 0.001"/>
      </geometry>
    </collision>
  </link>
  <link name="pod_bin_4b_back">
    <inertial>
      <mass value="0.01"/>
      <inertia ixx="0.0002835" ixy="0.0" ixz="0.0" iyy="0.0002835" iyz="0.0" izz="0.000324"/>
    </inertial>
    <visual>
      <origin xyz="0.1143 0.06985 -0.0005"/>
      <geometry>
        <box size="0.2286 0.1397 0.001"/>
      </geometry>
      <material name="yellow_fabric"/>
    </visual>
    <collision>
      <origin xyz="0.1143 0.06985 -0.0005"/>
      <geometry>
        <box size="0.2286 0.1397 0.001"/>
      </geometry>
    </collision>
  </link>
  <link name="pod_bin_4b_flap">
    <inertial>
      <mass value="0.01"/>
      <inertia ixx="0.0002835" ixy="0.0" ixz="0.0" iyy="0.0002835" iyz="0.0" izz="0.000324"/>
    </inertial>
    <visual>
      <origin xyz="0.1143 0.0127 -0.0005"/>
      <geometry>
        <box size="0.2286 0.0254 0.001"/>
      </geometry>
      <material name="yellow_fabric"/>
    </visual>
    <collision>
      <origin xyz="0.1143 0.0127 -0.0005"/>
      <geometry>
        <box size="0.2286 0.0254 0.001"/>
      </geometry>
    </collision>
  </link>
  <joint name="pod_bin_4b_pod_bin_4b_bottom" type="fixed">
    <parent link="pod_bin_4b"/>
    <child link="pod_bin_4b_bottom"/>
  </joint>
  <joint name="pod_bin_4b_pod_bin_4b_left" type="fixed">
    <origin rpy="1.5707963267948966 0 1.5707963267948966 " xyz="0 0 0"/>
    <parent link="pod_bin_4b"/>
    <child link="pod_bin_4b_left"/>
  </joint>
  <joint name="pod_bin_4b_pod_bin_4b_right" type="fixed">
    <origin rpy="1.5707963267948966 0 1.5707963267948966 " xyz="0.2286 0 0"/>
    <parent link="pod_bin_4b"/>
    <child link="pod_bin_4b_right"/>
  </joint>
  <joint name="pod_bin_4b_pod_bin_4b_top" type="fixed">
    <origin rpy="0 0 0" xyz="0 0 0.1397"/>
    <parent link="pod_bin_4b"/>
    <child link="pod_bin_4b_top"/>
  </joint>
  <joint name="pod_bin_4b_pod_bin_4b_back" type="fixed">
    <origin rpy="1.5707963267948966 0 0" xyz="0 0.15239999999999998 0"/>
    <parent link="pod_bin_4b"/>
    <child link="pod_bin_4b_back"/>
  </joint>
  <joint name="pod_bin_4b_pod_bin_4b_flap" type="fixed">
    <origin rpy="1.5707963267948966 0 0" xyz="0 0 0"/>
    <parent link="pod_bin_4b"/>
    <child link="pod_bin_4b_flap"/>
  </joint>
  <joint name="pod_shelf_b_pod_bin_4b_joint" type="fixed">
    <origin xyz="0.6858 0 0"/>
    <parent link="pod_shelf_b"/>
    <child link="pod_bin_4b"/>
  </joint>
  <joint name="pod_fabric_base_pod_shelf_b_joint" type="fixed">
    <origin xyz="0 0 0.22225"/>
    <parent link="pod_fabric_base"/>
    <child link="pod_shelf_b"/>
  </joint>
  <link name="pod_shelf_c"/>
  <link name="pod_bin_1c"/>
  <link name="pod_bin_1c_bottom">
    <inertial>
      <mass value="0.01"/>
      <inertia ixx="0.0002835" ixy="0.0" ixz="0.0" iyy="0.0002835" iyz="0.0" izz="0.000324"/>
    </inertial>
    <visual>
      <origin xyz="0.1143 0.07619999999999999 -0.0005"/>
      <geometry>
        <box size="0.2286 0.15239999999999998 0.001"/>
      </geometry>
      <material name="yellow_fabric"/>
    </visual>
    <collision>
      <origin xyz="0.1143 0.07619999999999999 -0.0005"/>
      <geometry>
        <box size="0.2286 0.15239999999999998 0.001"/>
      </geometry>
    </collision>
  </link>
  <link name="pod_bin_1c_left">
    <inertial>
      <mass value="0.01"/>
      <inertia ixx="0.0002835" ixy="0.0" ixz="0.0" iyy="0.0002835" iyz="0.0" izz="0.000324"/>
    </inertial>
    <visual>
      <origin xyz="0.07619999999999999 0.09525 -0.0005"/>
      <geometry>
        <box size="0.15239999999999998 0.1905 0.001"/>
      </geometry>
      <material name="yellow_fabric"/>
    </visual>
    <collision>
      <origin xyz="0.07619999999999999 0.09525 -0.0005"/>
      <geometry>
        <box size="0.15239999999999998 0.1905 0.001"/>
      </geometry>
    </collision>
  </link>
  <link name="pod_bin_1c_right">
    <inertial>
      <mass value="0.01"/>
      <inertia ixx="0.0002835" ixy="0.0" ixz="0.0" iyy="0.0002835" iyz="0.0" izz="0.000324"/>
    </inertial>
    <visual>
      <origin xyz="0.07619999999999999 0.09525 -0.0005"/>
      <geometry>
        <box size="0.15239999999999998 0.1905 0.001"/>
      </geometry>
      <material name="yellow_fabric"/>
    </visual>
    <collision>
      <origin xyz="0.07619999999999999 0.09525 -0.0005"/>
      <geometry>
        <box size="0.15239999999999998 0.1905 0.001"/>
      </geometry>
    </collision>
  </link>
  <link name="pod_bin_1c_top">
    <inertial>
      <mass value="0.01"/>
      <inertia ixx="0.0002835" ixy="0.0" ixz="0.0" iyy="0.0002835" iyz="0.0" izz="0.000324"/>
    </inertial>
    <visual>
      <origin xyz="0.1143 0.07619999999999999 -0.0005"/>
      <geometry>
        <box size="0.2286 0.15239999999999998 0.001"/>
      </geometry>
      <material name="yellow_fabric"/>
    </visual>
    <collision>
      <origin xyz="0.1143 0.07619999999999999 -0.0005"/>
      <geometry>
        <box size="0.2286 0.15239999999999998 0.001"/>
      </geometry>
    </collision>
  </link>
  <link name="pod_bin_1c_back">
    <inertial>
      <mass value="0.01"/>
      <inertia ixx="0.0002835" ixy="0.0" ixz="0.0" iyy="0.0002835" iyz="0.0" izz="0.000324"/>
    </inertial>
    <visual>
      <origin xyz="0.1143 0.09525 -0.0005"/>
      <geometry>
        <box size="0.2286 0.1905 0.001"/>
      </geometry>
      <material name="yellow_fabric"/>
    </visual>
    <collision>
      <origin xyz="0.1143 0.09525 -0.0005"/>
      <geometry>
        <box size="0.2286 0.1905 0.001"/>
      </geometry>
    </collision>
  </link>
  <link name="pod_bin_1c_flap">
    <inertial>
      <mass value="0.01"/>
      <inertia ixx="0.0002835" ixy="0.0" ixz="0.0" iyy="0.0002835" iyz="0.0" izz="0.000324"/>
    </inertial>
    <visual>
      <origin xyz="0.1143 0.0127 -0.0005"/>
      <geometry>
        <box size="0.2286 0.0254 0.001"/>
      </geometry>
      <material name="yellow_fabric"/>
    </visual>
    <collision>
      <origin xyz="0.1143 0.0127 -0.0005"/>
      <geometry>
        <box size="0.2286 0.0254 0.001"/>
      </geometry>
    </collision>
  </link>
  <joint name="pod_bin_1c_pod_bin_1c_bottom" type="fixed">
    <parent link="pod_bin_1c"/>
    <child link="pod_bin_1c_bottom"/>
  </joint>
  <joint name="pod_bin_1c_pod_bin_1c_left" type="fixed">
    <origin rpy="1.5707963267948966 0 1.5707963267948966 " xyz="0 0 0"/>
    <parent link="pod_bin_1c"/>
    <child link="pod_bin_1c_left"/>
  </joint>
  <joint name="pod_bin_1c_pod_bin_1c_right" type="fixed">
    <origin rpy="1.5707963267948966 0 1.5707963267948966 " xyz="0.2286 0 0"/>
    <parent link="pod_bin_1c"/>
    <child link="pod_bin_1c_right"/>
  </joint>
  <joint name="pod_bin_1c_pod_bin_1c_top" type="fixed">
    <origin rpy="0 0 0" xyz="0 0 0.1905"/>
    <parent link="pod_bin_1c"/>
    <child link="pod_bin_1c_top"/>
  </joint>
  <joint name="pod_bin_1c_pod_bin_1c_back" type="fixed">
    <origin rpy="1.5707963267948966 0 0" xyz="0 0.15239999999999998 0"/>
    <parent link="pod_bin_1c"/>
    <child link="pod_bin_1c_back"/>
  </joint>
  <joint name="pod_bin_1c_pod_bin_1c_flap" type="fixed">
    <origin rpy="1.5707963267948966 0 0" xyz="0 0 0"/>
    <parent link="pod_bin_1c"/>
    <child link="pod_bin_1c_flap"/>
  </joint>
  <joint name="pod_shelf_c_pod_bin_1c_joint" type="fixed">
    <origin xyz="0.0 0 0"/>
    <parent link="pod_shelf_c"/>
    <child link="pod_bin_1c"/>
  </joint>
  <link name="pod_bin_2c"/>
  <link name="pod_bin_2c_bottom">
    <inertial>
      <mass value="0.01"/>
      <inertia ixx="0.0002835" ixy="0.0" ixz="0.0" iyy="0.0002835" iyz="0.0" izz="0.000324"/>
    </inertial>
    <visual>
      <origin xyz="0.1143 0.07619999999999999 -0.0005"/>
      <geometry>
        <box size="0.2286 0.15239999999999998 0.001"/>
      </geometry>
      <material name="yellow_fabric"/>
    </visual>
    <collision>
      <origin xyz="0.1143 0.07619999999999999 -0.0005"/>
      <geometry>
        <box size="0.2286 0.15239999999999998 0.001"/>
      </geometry>
    </collision>
  </link>
  <link name="pod_bin_2c_left">
    <inertial>
      <mass value="0.01"/>
      <inertia ixx="0.0002835" ixy="0.0" ixz="0.0" iyy="0.0002835" iyz="0.0" izz="0.000324"/>
    </inertial>
    <visual>
      <origin xyz="0.07619999999999999 0.09525 -0.0005"/>
      <geometry>
        <box size="0.15239999999999998 0.1905 0.001"/>
      </geometry>
      <material name="yellow_fabric"/>
    </visual>
    <collision>
      <origin xyz="0.07619999999999999 0.09525 -0.0005"/>
      <geometry>
        <box size="0.15239999999999998 0.1905 0.001"/>
      </geometry>
    </collision>
  </link>
  <link name="pod_bin_2c_right">
    <inertial>
      <mass value="0.01"/>
      <inertia ixx="0.0002835" ixy="0.0" ixz="0.0" iyy="0.0002835" iyz="0.0" izz="0.000324"/>
    </inertial>
    <visual>
      <origin xyz="0.07619999999999999 0.09525 -0.0005"/>
      <geometry>
        <box size="0.15239999999999998 0.1905 0.001"/>
      </geometry>
      <material name="yellow_fabric"/>
    </visual>
    <collision>
      <origin xyz="0.07619999999999999 0.09525 -0.0005"/>
      <geometry>
        <box size="0.15239999999999998 0.1905 0.001"/>
      </geometry>
    </collision>
  </link>
  <link name="pod_bin_2c_top">
    <inertial>
      <mass value="0.01"/>
      <inertia ixx="0.0002835" ixy="0.0" ixz="0.0" iyy="0.0002835" iyz="0.0" izz="0.000324"/>
    </inertial>
    <visual>
      <origin xyz="0.1143 0.07619999999999999 -0.0005"/>
      <geometry>
        <box size="0.2286 0.15239999999999998 0.001"/>
      </geometry>
      <material name="yellow_fabric"/>
    </visual>
    <collision>
      <origin xyz="0.1143 0.07619999999999999 -0.0005"/>
      <geometry>
        <box size="0.2286 0.15239999999999998 0.001"/>
      </geometry>
    </collision>
  </link>
  <link name="pod_bin_2c_back">
    <inertial>
      <mass value="0.01"/>
      <inertia ixx="0.0002835" ixy="0.0" ixz="0.0" iyy="0.0002835" iyz="0.0" izz="0.000324"/>
    </inertial>
    <visual>
      <origin xyz="0.1143 0.09525 -0.0005"/>
      <geometry>
        <box size="0.2286 0.1905 0.001"/>
      </geometry>
      <material name="yellow_fabric"/>
    </visual>
    <collision>
      <origin xyz="0.1143 0.09525 -0.0005"/>
      <geometry>
        <box size="0.2286 0.1905 0.001"/>
      </geometry>
    </collision>
  </link>
  <link name="pod_bin_2c_flap">
    <inertial>
      <mass value="0.01"/>
      <inertia ixx="0.0002835" ixy="0.0" ixz="0.0" iyy="0.0002835" iyz="0.0" izz="0.000324"/>
    </inertial>
    <visual>
      <origin xyz="0.1143 0.0127 -0.0005"/>
      <geometry>
        <box size="0.2286 0.0254 0.001"/>
      </geometry>
      <material name="yellow_fabric"/>
    </visual>
    <collision>
      <origin xyz="0.1143 0.0127 -0.0005"/>
      <geometry>
        <box size="0.2286 0.0254 0.001"/>
      </geometry>
    </collision>
  </link>
  <joint name="pod_bin_2c_pod_bin_2c_bottom" type="fixed">
    <parent link="pod_bin_2c"/>
    <child link="pod_bin_2c_bottom"/>
  </joint>
  <joint name="pod_bin_2c_pod_bin_2c_left" type="fixed">
    <origin rpy="1.5707963267948966 0 1.5707963267948966 " xyz="0 0 0"/>
    <parent link="pod_bin_2c"/>
    <child link="pod_bin_2c_left"/>
  </joint>
  <joint name="pod_bin_2c_pod_bin_2c_right" type="fixed">
    <origin rpy="1.5707963267948966 0 1.5707963267948966 " xyz="0.2286 0 0"/>
    <parent link="pod_bin_2c"/>
    <child link="pod_bin_2c_right"/>
  </joint>
  <joint name="pod_bin_2c_pod_bin_2c_top" type="fixed">
    <origin rpy="0 0 0" xyz="0 0 0.1905"/>
    <parent link="pod_bin_2c"/>
    <child link="pod_bin_2c_top"/>
  </joint>
  <joint name="pod_bin_2c_pod_bin_2c_back" type="fixed">
    <origin rpy="1.5707963267948966 0 0" xyz="0 0.15239999999999998 0"/>
    <parent link="pod_bin_2c"/>
    <child link="pod_bin_2c_back"/>
  </joint>
  <joint name="pod_bin_2c_pod_bin_2c_flap" type="fixed">
    <origin rpy="1.5707963267948966 0 0" xyz="0 0 0"/>
    <parent link="pod_bin_2c"/>
    <child link="pod_bin_2c_flap"/>
  </joint>
  <joint name="pod_shelf_c_pod_bin_2c_joint" type="fixed">
    <origin xyz="0.2286 0 0"/>
    <parent link="pod_shelf_c"/>
    <child link="pod_bin_2c"/>
  </joint>
  <link name="pod_bin_3c"/>
  <link name="pod_bin_3c_bottom">
    <inertial>
      <mass value="0.01"/>
      <inertia ixx="0.0002835" ixy="0.0" ixz="0.0" iyy="0.0002835" iyz="0.0" izz="0.000324"/>
    </inertial>
    <visual>
      <origin xyz="0.1143 0.07619999999999999 -0.0005"/>
      <geometry>
        <box size="0.2286 0.15239999999999998 0.001"/>
      </geometry>
      <material name="yellow_fabric"/>
    </visual>
    <collision>
      <origin xyz="0.1143 0.07619999999999999 -0.0005"/>
      <geometry>
        <box size="0.2286 0.15239999999999998 0.001"/>
      </geometry>
    </collision>
  </link>
  <link name="pod_bin_3c_left">
    <inertial>
      <mass value="0.01"/>
      <inertia ixx="0.0002835" ixy="0.0" ixz="0.0" iyy="0.0002835" iyz="0.0" izz="0.000324"/>
    </inertial>
    <visual>
      <origin xyz="0.07619999999999999 0.09525 -0.0005"/>
      <geometry>
        <box size="0.15239999999999998 0.1905 0.001"/>
      </geometry>
      <material name="yellow_fabric"/>
    </visual>
    <collision>
      <origin xyz="0.07619999999999999 0.09525 -0.0005"/>
      <geometry>
        <box size="0.15239999999999998 0.1905 0.001"/>
      </geometry>
    </collision>
  </link>
  <link name="pod_bin_3c_right">
    <inertial>
      <mass value="0.01"/>
      <inertia ixx="0.0002835" ixy="0.0" ixz="0.0" iyy="0.0002835" iyz="0.0" izz="0.000324"/>
    </inertial>
    <visual>
      <origin xyz="0.07619999999999999 0.09525 -0.0005"/>
      <geometry>
        <box size="0.15239999999999998 0.1905 0.001"/>
      </geometry>
      <material name="yellow_fabric"/>
    </visual>
    <collision>
      <origin xyz="0.07619999999999999 0.09525 -0.0005"/>
      <geometry>
        <box size="0.15239999999999998 0.1905 0.001"/>
      </geometry>
    </collision>
  </link>
  <link name="pod_bin_3c_top">
    <inertial>
      <mass value="0.01"/>
      <inertia ixx="0.0002835" ixy="0.0" ixz="0.0" iyy="0.0002835" iyz="0.0" izz="0.000324"/>
    </inertial>
    <visual>
      <origin xyz="0.1143 0.07619999999999999 -0.0005"/>
      <geometry>
        <box size="0.2286 0.15239999999999998 0.001"/>
      </geometry>
      <material name="yellow_fabric"/>
    </visual>
    <collision>
      <origin xyz="0.1143 0.07619999999999999 -0.0005"/>
      <geometry>
        <box size="0.2286 0.15239999999999998 0.001"/>
      </geometry>
    </collision>
  </link>
  <link name="pod_bin_3c_back">
    <inertial>
      <mass value="0.01"/>
      <inertia ixx="0.0002835" ixy="0.0" ixz="0.0" iyy="0.0002835" iyz="0.0" izz="0.000324"/>
    </inertial>
    <visual>
      <origin xyz="0.1143 0.09525 -0.0005"/>
      <geometry>
        <box size="0.2286 0.1905 0.001"/>
      </geometry>
      <material name="yellow_fabric"/>
    </visual>
    <collision>
      <origin xyz="0.1143 0.09525 -0.0005"/>
      <geometry>
        <box size="0.2286 0.1905 0.001"/>
      </geometry>
    </collision>
  </link>
  <link name="pod_bin_3c_flap">
    <inertial>
      <mass value="0.01"/>
      <inertia ixx="0.0002835" ixy="0.0" ixz="0.0" iyy="0.0002835" iyz="0.0" izz="0.000324"/>
    </inertial>
    <visual>
      <origin xyz="0.1143 0.0127 -0.0005"/>
      <geometry>
        <box size="0.2286 0.0254 0.001"/>
      </geometry>
      <material name="yellow_fabric"/>
    </visual>
    <collision>
      <origin xyz="0.1143 0.0127 -0.0005"/>
      <geometry>
        <box size="0.2286 0.0254 0.001"/>
      </geometry>
    </collision>
  </link>
  <joint name="pod_bin_3c_pod_bin_3c_bottom" type="fixed">
    <parent link="pod_bin_3c"/>
    <child link="pod_bin_3c_bottom"/>
  </joint>
  <joint name="pod_bin_3c_pod_bin_3c_left" type="fixed">
    <origin rpy="1.5707963267948966 0 1.5707963267948966 " xyz="0 0 0"/>
    <parent link="pod_bin_3c"/>
    <child link="pod_bin_3c_left"/>
  </joint>
  <joint name="pod_bin_3c_pod_bin_3c_right" type="fixed">
    <origin rpy="1.5707963267948966 0 1.5707963267948966 " xyz="0.2286 0 0"/>
    <parent link="pod_bin_3c"/>
    <child link="pod_bin_3c_right"/>
  </joint>
  <joint name="pod_bin_3c_pod_bin_3c_top" type="fixed">
    <origin rpy="0 0 0" xyz="0 0 0.1905"/>
    <parent link="pod_bin_3c"/>
    <child link="pod_bin_3c_top"/>
  </joint>
  <joint name="pod_bin_3c_pod_bin_3c_back" type="fixed">
    <origin rpy="1.5707963267948966 0 0" xyz="0 0.15239999999999998 0"/>
    <parent link="pod_bin_3c"/>
    <child link="pod_bin_3c_back"/>
  </joint>
  <joint name="pod_bin_3c_pod_bin_3c_flap" type="fixed">
    <origin rpy="1.5707963267948966 0 0" xyz="0 0 0"/>
    <parent link="pod_bin_3c"/>
    <child link="pod_bin_3c_flap"/>
  </joint>
  <joint name="pod_shelf_c_pod_bin_3c_joint" type="fixed">
    <origin xyz="0.4572 0 0"/>
    <parent link="pod_shelf_c"/>
    <child link="pod_bin_3c"/>
  </joint>
  <link name="pod_bin_4c"/>
  <link name="pod_bin_4c_bottom">
    <inertial>
      <mass value="0.01"/>
      <inertia ixx="0.0002835" ixy="0.0" ixz="0.0" iyy="0.0002835" iyz="0.0" izz="0.000324"/>
    </inertial>
    <visual>
      <origin xyz="0.1143 0.07619999999999999 -0.0005"/>
      <geometry>
        <box size="0.2286 0.15239999999999998 0.001"/>
      </geometry>
      <material name="yellow_fabric"/>
    </visual>
    <collision>
      <origin xyz="0.1143 0.07619999999999999 -0.0005"/>
      <geometry>
        <box size="0.2286 0.15239999999999998 0.001"/>
      </geometry>
    </collision>
  </link>
  <link name="pod_bin_4c_left">
    <inertial>
      <mass value="0.01"/>
      <inertia ixx="0.0002835" ixy="0.0" ixz="0.0" iyy="0.0002835" iyz="0.0" izz="0.000324"/>
    </inertial>
    <visual>
      <origin xyz="0.07619999999999999 0.09525 -0.0005"/>
      <geometry>
        <box size="0.15239999999999998 0.1905 0.001"/>
      </geometry>
      <material name="yellow_fabric"/>
    </visual>
    <collision>
      <origin xyz="0.07619999999999999 0.09525 -0.0005"/>
      <geometry>
        <box size="0.15239999999999998 0.1905 0.001"/>
      </geometry>
    </collision>
  </link>
  <link name="pod_bin_4c_right">
    <inertial>
      <mass value="0.01"/>
      <inertia ixx="0.0002835" ixy="0.0" ixz="0.0" iyy="0.0002835" iyz="0.0" izz="0.000324"/>
    </inertial>
    <visual>
      <origin xyz="0.07619999999999999 0.09525 -0.0005"/>
      <geometry>
        <box size="0.15239999999999998 0.1905 0.001"/>
      </geometry>
      <material name="yellow_fabric"/>
    </visual>
    <collision>
      <origin xyz="0.07619999999999999 0.09525 -0.0005"/>
      <geometry>
        <box size="0.15239999999999998 0.1905 0.001"/>
      </geometry>
    </collision>
  </link>
  <link name="pod_bin_4c_top">
    <inertial>
      <mass value="0.01"/>
      <inertia ixx="0.0002835" ixy="0.0" ixz="0.0" iyy="0.0002835" iyz="0.0" izz="0.000324"/>
    </inertial>
    <visual>
      <origin xyz="0.1143 0.07619999999999999 -0.0005"/>
      <geometry>
        <box size="0.2286 0.15239999999999998 0.001"/>
      </geometry>
      <material name="yellow_fabric"/>
    </visual>
    <collision>
      <origin xyz="0.1143 0.07619999999999999 -0.0005"/>
      <geometry>
        <box size="0.2286 0.15239999999999998 0.001"/>
      </geometry>
    </collision>
  </link>
  <link name="pod_bin_4c_back">
    <inertial>
      <mass value="0.01"/>
      <inertia ixx="0.0002835" ixy="0.0" ixz="0.0" iyy="0.0002835" iyz="0.0" izz="0.000324"/>
    </inertial>
    <visual>
      <origin xyz="0.1143 0.09525 -0.0005"/>
      <geometry>
        <box size="0.2286 0.1905 0.001"/>
      </geometry>
      <material name="yellow_fabric"/>
    </visual>
    <collision>
      <origin xyz="0.1143 0.09525 -0.0005"/>
      <geometry>
        <box size="0.2286 0.1905 0.001"/>
      </geometry>
    </collision>
  </link>
  <link name="pod_bin_4c_flap">
    <inertial>
      <mass value="0.01"/>
      <inertia ixx="0.0002835" ixy="0.0" ixz="0.0" iyy="0.0002835" iyz="0.0" izz="0.000324"/>
    </inertial>
    <visual>
      <origin xyz="0.1143 0.0127 -0.0005"/>
      <geometry>
        <box size="0.2286 0.0254 0.001"/>
      </geometry>
      <material name="yellow_fabric"/>
    </visual>
    <collision>
      <origin xyz="0.1143 0.0127 -0.0005"/>
      <geometry>
        <box size="0.2286 0.0254 0.001"/>
      </geometry>
    </collision>
  </link>
  <joint name="pod_bin_4c_pod_bin_4c_bottom" type="fixed">
    <parent link="pod_bin_4c"/>
    <child link="pod_bin_4c_bottom"/>
  </joint>
  <joint name="pod_bin_4c_pod_bin_4c_left" type="fixed">
    <origin rpy="1.5707963267948966 0 1.5707963267948966 " xyz="0 0 0"/>
    <parent link="pod_bin_4c"/>
    <child link="pod_bin_4c_left"/>
  </joint>
  <joint name="pod_bin_4c_pod_bin_4c_right" type="fixed">
    <origin rpy="1.5707963267948966 0 1.5707963267948966 " xyz="0.2286 0 0"/>
    <parent link="pod_bin_4c"/>
    <child link="pod_bin_4c_right"/>
  </joint>
  <joint name="pod_bin_4c_pod_bin_4c_top" type="fixed">
    <origin rpy="0 0 0" xyz="0 0 0.1905"/>
    <parent link="pod_bin_4c"/>
    <child link="pod_bin_4c_top"/>
  </joint>
  <joint name="pod_bin_4c_pod_bin_4c_back" type="fixed">
    <origin rpy="1.5707963267948966 0 0" xyz="0 0.15239999999999998 0"/>
    <parent link="pod_bin_4c"/>
    <child link="pod_bin_4c_back"/>
  </joint>
  <joint name="pod_bin_4c_pod_bin_4c_flap" type="fixed">
    <origin rpy="1.5707963267948966 0 0" xyz="0 0 0"/>
    <parent link="pod_bin_4c"/>
    <child link="pod_bin_4c_flap"/>
  </joint>
  <joint name="pod_shelf_c_pod_bin_4c_joint" type="fixed">
    <origin xyz="0.6858 0 0"/>
    <parent link="pod_shelf_c"/>
    <child link="pod_bin_4c"/>
  </joint>
  <joint name="pod_fabric_base_pod_shelf_c_joint" type="fixed">
    <origin xyz="0 0 0.36195"/>
    <parent link="pod_fabric_base"/>
    <child link="pod_shelf_c"/>
  </joint>
  <link name="pod_shelf_d"/>
  <link name="pod_bin_1d"/>
  <link name="pod_bin_1d_bottom">
    <inertial>
      <mass value="0.01"/>
      <inertia ixx="0.0002835" ixy="0.0" ixz="0.0" iyy="0.0002835" iyz="0.0" izz="0.000324"/>
    </inertial>
    <visual>
      <origin xyz="0.1143 0.07619999999999999 -0.0005"/>
      <geometry>
        <box size="0.2286 0.15239999999999998 0.001"/>
      </geometry>
      <material name="yellow_fabric"/>
    </visual>
    <collision>
      <origin xyz="0.1143 0.07619999999999999 -0.0005"/>
      <geometry>
        <box size="0.2286 0.15239999999999998 0.001"/>
      </geometry>
    </collision>
  </link>
  <link name="pod_bin_1d_left">
    <inertial>
      <mass value="0.01"/>
      <inertia ixx="0.0002835" ixy="0.0" ixz="0.0" iyy="0.0002835" iyz="0.0" izz="0.000324"/>
    </inertial>
    <visual>
      <origin xyz="0.07619999999999999 0.07619999999999999 -0.0005"/>
      <geometry>
        <box size="0.15239999999999998 0.15239999999999998 0.001"/>
      </geometry>
      <material name="yellow_fabric"/>
    </visual>
    <collision>
      <origin xyz="0.07619999999999999 0.07619999999999999 -0.0005"/>
      <geometry>
        <box size="0.15239999999999998 0.15239999999999998 0.001"/>
      </geometry>
    </collision>
  </link>
  <link name="pod_bin_1d_right">
    <inertial>
      <mass value="0.01"/>
      <inertia ixx="0.0002835" ixy="0.0" ixz="0.0" iyy="0.0002835" iyz="0.0" izz="0.000324"/>
    </inertial>
    <visual>
      <origin xyz="0.07619999999999999 0.07619999999999999 -0.0005"/>
      <geometry>
        <box size="0.15239999999999998 0.15239999999999998 0.001"/>
      </geometry>
      <material name="yellow_fabric"/>
    </visual>
    <collision>
      <origin xyz="0.07619999999999999 0.07619999999999999 -0.0005"/>
      <geometry>
        <box size="0.15239999999999998 0.15239999999999998 0.001"/>
      </geometry>
    </collision>
  </link>
  <link name="pod_bin_1d_top">
    <inertial>
      <mass value="0.01"/>
      <inertia ixx="0.0002835" ixy="0.0" ixz="0.0" iyy="0.0002835" iyz="0.0" izz="0.000324"/>
    </inertial>
    <visual>
      <origin xyz="0.1143 0.07619999999999999 -0.0005"/>
      <geometry>
        <box size="0.2286 0.15239999999999998 0.001"/>
      </geometry>
      <material name="yellow_fabric"/>
    </visual>
    <collision>
      <origin xyz="0.1143 0.07619999999999999 -0.0005"/>
      <geometry>
        <box size="0.2286 0.15239999999999998 0.001"/>
      </geometry>
    </collision>
  </link>
  <link name="pod_bin_1d_back">
    <inertial>
      <mass value="0.01"/>
      <inertia ixx="0.0002835" ixy="0.0" ixz="0.0" iyy="0.0002835" iyz="0.0" izz="0.000324"/>
    </inertial>
    <visual>
      <origin xyz="0.1143 0.07619999999999999 -0.0005"/>
      <geometry>
        <box size="0.2286 0.15239999999999998 0.001"/>
      </geometry>
      <material name="yellow_fabric"/>
    </visual>
    <collision>
      <origin xyz="0.1143 0.07619999999999999 -0.0005"/>
      <geometry>
        <box size="0.2286 0.15239999999999998 0.001"/>
      </geometry>
    </collision>
  </link>
  <link name="pod_bin_1d_flap">
    <inertial>
      <mass value="0.01"/>
      <inertia ixx="0.0002835" ixy="0.0" ixz="0.0" iyy="0.0002835" iyz="0.0" izz="0.000324"/>
    </inertial>
    <visual>
      <origin xyz="0.1143 0.0127 -0.0005"/>
      <geometry>
        <box size="0.2286 0.0254 0.001"/>
      </geometry>
      <material name="yellow_fabric"/>
    </visual>
    <collision>
      <origin xyz="0.1143 0.0127 -0.0005"/>
      <geometry>
        <box size="0.2286 0.0254 0.001"/>
      </geometry>
    </collision>
  </link>
  <joint name="pod_bin_1d_pod_bin_1d_bottom" type="fixed">
    <parent link="pod_bin_1d"/>
    <child link="pod_bin_1d_bottom"/>
  </joint>
  <joint name="pod_bin_1d_pod_bin_1d_left" type="fixed">
    <origin rpy="1.5707963267948966 0 1.5707963267948966 " xyz="0 0 0"/>
    <parent link="pod_bin_1d"/>
    <child link="pod_bin_1d_left"/>
  </joint>
  <joint name="pod_bin_1d_pod_bin_1d_right" type="fixed">
    <origin rpy="1.5707963267948966 0 1.5707963267948966 " xyz="0.2286 0 0"/>
    <parent link="pod_bin_1d"/>
    <child link="pod_bin_1d_right"/>
  </joint>
  <joint name="pod_bin_1d_pod_bin_1d_top" type="fixed">
    <origin rpy="0 0 0" xyz="0 0 0.15239999999999998"/>
    <parent link="pod_bin_1d"/>
    <child link="pod_bin_1d_top"/>
  </joint>
  <joint name="pod_bin_1d_pod_bin_1d_back" type="fixed">
    <origin rpy="1.5707963267948966 0 0" xyz="0 0.15239999999999998 0"/>
    <parent link="pod_bin_1d"/>
    <child link="pod_bin_1d_back"/>
  </joint>
  <joint name="pod_bin_1d_pod_bin_1d_flap" type="fixed">
    <origin rpy="1.5707963267948966 0 0" xyz="0 0 0"/>
    <parent link="pod_bin_1d"/>
    <child link="pod_bin_1d_flap"/>
  </joint>
  <joint name="pod_shelf_d_pod_bin_1d_joint" type="fixed">
    <origin xyz="0.0 0 0"/>
    <parent link="pod_shelf_d"/>
    <child link="pod_bin_1d"/>
  </joint>
  <link name="pod_bin_2d"/>
  <link name="pod_bin_2d_bottom">
    <inertial>
      <mass value="0.01"/>
      <inertia ixx="0.0002835" ixy="0.0" ixz="0.0" iyy="0.0002835" iyz="0.0" izz="0.000324"/>
    </inertial>
    <visual>
      <origin xyz="0.1143 0.07619999999999999 -0.0005"/>
      <geometry>
        <box size="0.2286 0.15239999999999998 0.001"/>
      </geometry>
      <material name="yellow_fabric"/>
    </visual>
    <collision>
      <origin xyz="0.1143 0.07619999999999999 -0.0005"/>
      <geometry>
        <box size="0.2286 0.15239999999999998 0.001"/>
      </geometry>
    </collision>
  </link>
  <link name="pod_bin_2d_left">
    <inertial>
      <mass value="0.01"/>
      <inertia ixx="0.0002835" ixy="0.0" ixz="0.0" iyy="0.0002835" iyz="0.0" izz="0.000324"/>
    </inertial>
    <visual>
      <origin xyz="0.07619999999999999 0.07619999999999999 -0.0005"/>
      <geometry>
        <box size="0.15239999999999998 0.15239999999999998 0.001"/>
      </geometry>
      <material name="yellow_fabric"/>
    </visual>
    <collision>
      <origin xyz="0.07619999999999999 0.07619999999999999 -0.0005"/>
      <geometry>
        <box size="0.15239999999999998 0.15239999999999998 0.001"/>
      </geometry>
    </collision>
  </link>
  <link name="pod_bin_2d_right">
    <inertial>
      <mass value="0.01"/>
      <inertia ixx="0.0002835" ixy="0.0" ixz="0.0" iyy="0.0002835" iyz="0.0" izz="0.000324"/>
    </inertial>
    <visual>
      <origin xyz="0.07619999999999999 0.07619999999999999 -0.0005"/>
      <geometry>
        <box size="0.15239999999999998 0.15239999999999998 0.001"/>
      </geometry>
      <material name="yellow_fabric"/>
    </visual>
    <collision>
      <origin xyz="0.07619999999999999 0.07619999999999999 -0.0005"/>
      <geometry>
        <box size="0.15239999999999998 0.15239999999999998 0.001"/>
      </geometry>
    </collision>
  </link>
  <link name="pod_bin_2d_top">
    <inertial>
      <mass value="0.01"/>
      <inertia ixx="0.0002835" ixy="0.0" ixz="0.0" iyy="0.0002835" iyz="0.0" izz="0.000324"/>
    </inertial>
    <visual>
      <origin xyz="0.1143 0.07619999999999999 -0.0005"/>
      <geometry>
        <box size="0.2286 0.15239999999999998 0.001"/>
      </geometry>
      <material name="yellow_fabric"/>
    </visual>
    <collision>
      <origin xyz="0.1143 0.07619999999999999 -0.0005"/>
      <geometry>
        <box size="0.2286 0.15239999999999998 0.001"/>
      </geometry>
    </collision>
  </link>
  <link name="pod_bin_2d_back">
    <inertial>
      <mass value="0.01"/>
      <inertia ixx="0.0002835" ixy="0.0" ixz="0.0" iyy="0.0002835" iyz="0.0" izz="0.000324"/>
    </inertial>
    <visual>
      <origin xyz="0.1143 0.07619999999999999 -0.0005"/>
      <geometry>
        <box size="0.2286 0.15239999999999998 0.001"/>
      </geometry>
      <material name="yellow_fabric"/>
    </visual>
    <collision>
      <origin xyz="0.1143 0.07619999999999999 -0.0005"/>
      <geometry>
        <box size="0.2286 0.15239999999999998 0.001"/>
      </geometry>
    </collision>
  </link>
  <link name="pod_bin_2d_flap">
    <inertial>
      <mass value="0.01"/>
      <inertia ixx="0.0002835" ixy="0.0" ixz="0.0" iyy="0.0002835" iyz="0.0" izz="0.000324"/>
    </inertial>
    <visual>
      <origin xyz="0.1143 0.0127 -0.0005"/>
      <geometry>
        <box size="0.2286 0.0254 0.001"/>
      </geometry>
      <material name="yellow_fabric"/>
    </visual>
    <collision>
      <origin xyz="0.1143 0.0127 -0.0005"/>
      <geometry>
        <box size="0.2286 0.0254 0.001"/>
      </geometry>
    </collision>
  </link>
  <joint name="pod_bin_2d_pod_bin_2d_bottom" type="fixed">
    <parent link="pod_bin_2d"/>
    <child link="pod_bin_2d_bottom"/>
  </joint>
  <joint name="pod_bin_2d_pod_bin_2d_left" type="fixed">
    <origin rpy="1.5707963267948966 0 1.5707963267948966 " xyz="0 0 0"/>
    <parent link="pod_bin_2d"/>
    <child link="pod_bin_2d_left"/>
  </joint>
  <joint name="pod_bin_2d_pod_bin_2d_right" type="fixed">
    <origin rpy="1.5707963267948966 0 1.5707963267948966 " xyz="0.2286 0 0"/>
    <parent link="pod_bin_2d"/>
    <child link="pod_bin_2d_right"/>
  </joint>
  <joint name="pod_bin_2d_pod_bin_2d_top" type="fixed">
    <origin rpy="0 0 0" xyz="0 0 0.15239999999999998"/>
    <parent link="pod_bin_2d"/>
    <child link="pod_bin_2d_top"/>
  </joint>
  <joint name="pod_bin_2d_pod_bin_2d_back" type="fixed">
    <origin rpy="1.5707963267948966 0 0" xyz="0 0.15239999999999998 0"/>
    <parent link="pod_bin_2d"/>
    <child link="pod_bin_2d_back"/>
  </joint>
  <joint name="pod_bin_2d_pod_bin_2d_flap" type="fixed">
    <origin rpy="1.5707963267948966 0 0" xyz="0 0 0"/>
    <parent link="pod_bin_2d"/>
    <child link="pod_bin_2d_flap"/>
  </joint>
  <joint name="pod_shelf_d_pod_bin_2d_joint" type="fixed">
    <origin xyz="0.2286 0 0"/>
    <parent link="pod_shelf_d"/>
    <child link="pod_bin_2d"/>
  </joint>
  <link name="pod_bin_3d"/>
  <link name="pod_bin_3d_bottom">
    <inertial>
      <mass value="0.01"/>
      <inertia ixx="0.0002835" ixy="0.0" ixz="0.0" iyy="0.0002835" iyz="0.0" izz="0.000324"/>
    </inertial>
    <visual>
      <origin xyz="0.1143 0.07619999999999999 -0.0005"/>
      <geometry>
        <box size="0.2286 0.15239999999999998 0.001"/>
      </geometry>
      <material name="yellow_fabric"/>
    </visual>
    <collision>
      <origin xyz="0.1143 0.07619999999999999 -0.0005"/>
      <geometry>
        <box size="0.2286 0.15239999999999998 0.001"/>
      </geometry>
    </collision>
  </link>
  <link name="pod_bin_3d_left">
    <inertial>
      <mass value="0.01"/>
      <inertia ixx="0.0002835" ixy="0.0" ixz="0.0" iyy="0.0002835" iyz="0.0" izz="0.000324"/>
    </inertial>
    <visual>
      <origin xyz="0.07619999999999999 0.07619999999999999 -0.0005"/>
      <geometry>
        <box size="0.15239999999999998 0.15239999999999998 0.001"/>
      </geometry>
      <material name="yellow_fabric"/>
    </visual>
    <collision>
      <origin xyz="0.07619999999999999 0.07619999999999999 -0.0005"/>
      <geometry>
        <box size="0.15239999999999998 0.15239999999999998 0.001"/>
      </geometry>
    </collision>
  </link>
  <link name="pod_bin_3d_right">
    <inertial>
      <mass value="0.01"/>
      <inertia ixx="0.0002835" ixy="0.0" ixz="0.0" iyy="0.0002835" iyz="0.0" izz="0.000324"/>
    </inertial>
    <visual>
      <origin xyz="0.07619999999999999 0.07619999999999999 -0.0005"/>
      <geometry>
        <box size="0.15239999999999998 0.15239999999999998 0.001"/>
      </geometry>
      <material name="yellow_fabric"/>
    </visual>
    <collision>
      <origin xyz="0.07619999999999999 0.07619999999999999 -0.0005"/>
      <geometry>
        <box size="0.15239999999999998 0.15239999999999998 0.001"/>
      </geometry>
    </collision>
  </link>
  <link name="pod_bin_3d_top">
    <inertial>
      <mass value="0.01"/>
      <inertia ixx="0.0002835" ixy="0.0" ixz="0.0" iyy="0.0002835" iyz="0.0" izz="0.000324"/>
    </inertial>
    <visual>
      <origin xyz="0.1143 0.07619999999999999 -0.0005"/>
      <geometry>
        <box size="0.2286 0.15239999999999998 0.001"/>
      </geometry>
      <material name="yellow_fabric"/>
    </visual>
    <collision>
      <origin xyz="0.1143 0.07619999999999999 -0.0005"/>
      <geometry>
        <box size="0.2286 0.15239999999999998 0.001"/>
      </geometry>
    </collision>
  </link>
  <link name="pod_bin_3d_back">
    <inertial>
      <mass value="0.01"/>
      <inertia ixx="0.0002835" ixy="0.0" ixz="0.0" iyy="0.0002835" iyz="0.0" izz="0.000324"/>
    </inertial>
    <visual>
      <origin xyz="0.1143 0.07619999999999999 -0.0005"/>
      <geometry>
        <box size="0.2286 0.15239999999999998 0.001"/>
      </geometry>
      <material name="yellow_fabric"/>
    </visual>
    <collision>
      <origin xyz="0.1143 0.07619999999999999 -0.0005"/>
      <geometry>
        <box size="0.2286 0.15239999999999998 0.001"/>
      </geometry>
    </collision>
  </link>
  <link name="pod_bin_3d_flap">
    <inertial>
      <mass value="0.01"/>
      <inertia ixx="0.0002835" ixy="0.0" ixz="0.0" iyy="0.0002835" iyz="0.0" izz="0.000324"/>
    </inertial>
    <visual>
      <origin xyz="0.1143 0.0127 -0.0005"/>
      <geometry>
        <box size="0.2286 0.0254 0.001"/>
      </geometry>
      <material name="yellow_fabric"/>
    </visual>
    <collision>
      <origin xyz="0.1143 0.0127 -0.0005"/>
      <geometry>
        <box size="0.2286 0.0254 0.001"/>
      </geometry>
    </collision>
  </link>
  <joint name="pod_bin_3d_pod_bin_3d_bottom" type="fixed">
    <parent link="pod_bin_3d"/>
    <child link="pod_bin_3d_bottom"/>
  </joint>
  <joint name="pod_bin_3d_pod_bin_3d_left" type="fixed">
    <origin rpy="1.5707963267948966 0 1.5707963267948966 " xyz="0 0 0"/>
    <parent link="pod_bin_3d"/>
    <child link="pod_bin_3d_left"/>
  </joint>
  <joint name="pod_bin_3d_pod_bin_3d_right" type="fixed">
    <origin rpy="1.5707963267948966 0 1.5707963267948966 " xyz="0.2286 0 0"/>
    <parent link="pod_bin_3d"/>
    <child link="pod_bin_3d_right"/>
  </joint>
  <joint name="pod_bin_3d_pod_bin_3d_top" type="fixed">
    <origin rpy="0 0 0" xyz="0 0 0.15239999999999998"/>
    <parent link="pod_bin_3d"/>
    <child link="pod_bin_3d_top"/>
  </joint>
  <joint name="pod_bin_3d_pod_bin_3d_back" type="fixed">
    <origin rpy="1.5707963267948966 0 0" xyz="0 0.15239999999999998 0"/>
    <parent link="pod_bin_3d"/>
    <child link="pod_bin_3d_back"/>
  </joint>
  <joint name="pod_bin_3d_pod_bin_3d_flap" type="fixed">
    <origin rpy="1.5707963267948966 0 0" xyz="0 0 0"/>
    <parent link="pod_bin_3d"/>
    <child link="pod_bin_3d_flap"/>
  </joint>
  <joint name="pod_shelf_d_pod_bin_3d_joint" type="fixed">
    <origin xyz="0.4572 0 0"/>
    <parent link="pod_shelf_d"/>
    <child link="pod_bin_3d"/>
  </joint>
  <link name="pod_bin_4d"/>
  <link name="pod_bin_4d_bottom">
    <inertial>
      <mass value="0.01"/>
      <inertia ixx="0.0002835" ixy="0.0" ixz="0.0" iyy="0.0002835" iyz="0.0" izz="0.000324"/>
    </inertial>
    <visual>
      <origin xyz="0.1143 0.07619999999999999 -0.0005"/>
      <geometry>
        <box size="0.2286 0.15239999999999998 0.001"/>
      </geometry>
      <material name="yellow_fabric"/>
    </visual>
    <collision>
      <origin xyz="0.1143 0.07619999999999999 -0.0005"/>
      <geometry>
        <box size="0.2286 0.15239999999999998 0.001"/>
      </geometry>
    </collision>
  </link>
  <link name="pod_bin_4d_left">
    <inertial>
      <mass value="0.01"/>
      <inertia ixx="0.0002835" ixy="0.0" ixz="0.0" iyy="0.0002835" iyz="0.0" izz="0.000324"/>
    </inertial>
    <visual>
      <origin xyz="0.07619999999999999 0.07619999999999999 -0.0005"/>
      <geometry>
        <box size="0.15239999999999998 0.15239999999999998 0.001"/>
      </geometry>
      <material name="yellow_fabric"/>
    </visual>
    <collision>
      <origin xyz="0.07619999999999999 0.07619999999999999 -0.0005"/>
      <geometry>
        <box size="0.15239999999999998 0.15239999999999998 0.001"/>
      </geometry>
    </collision>
  </link>
  <link name="pod_bin_4d_right">
    <inertial>
      <mass value="0.01"/>
      <inertia ixx="0.0002835" ixy="0.0" ixz="0.0" iyy="0.0002835" iyz="0.0" izz="0.000324"/>
    </inertial>
    <visual>
      <origin xyz="0.07619999999999999 0.07619999999999999 -0.0005"/>
      <geometry>
        <box size="0.15239999999999998 0.15239999999999998 0.001"/>
      </geometry>
      <material name="yellow_fabric"/>
    </visual>
    <collision>
      <origin xyz="0.07619999999999999 0.07619999999999999 -0.0005"/>
      <geometry>
        <box size="0.15239999999999998 0.15239999999999998 0.001"/>
      </geometry>
    </collision>
  </link>
  <link name="pod_bin_4d_top">
    <inertial>
      <mass value="0.01"/>
      <inertia ixx="0.0002835" ixy="0.0" ixz="0.0" iyy="0.0002835" iyz="0.0" izz="0.000324"/>
    </inertial>
    <visual>
      <origin xyz="0.1143 0.07619999999999999 -0.0005"/>
      <geometry>
        <box size="0.2286 0.15239999999999998 0.001"/>
      </geometry>
      <material name="yellow_fabric"/>
    </visual>
    <collision>
      <origin xyz="0.1143 0.07619999999999999 -0.0005"/>
      <geometry>
        <box size="0.2286 0.15239999999999998 0.001"/>
      </geometry>
    </collision>
  </link>
  <link name="pod_bin_4d_back">
    <inertial>
      <mass value="0.01"/>
      <inertia ixx="0.0002835" ixy="0.0" ixz="0.0" iyy="0.0002835" iyz="0.0" izz="0.000324"/>
    </inertial>
    <visual>
      <origin xyz="0.1143 0.07619999999999999 -0.0005"/>
      <geometry>
        <box size="0.2286 0.15239999999999998 0.001"/>
      </geometry>
      <material name="yellow_fabric"/>
    </visual>
    <collision>
      <origin xyz="0.1143 0.07619999999999999 -0.0005"/>
      <geometry>
        <box size="0.2286 0.15239999999999998 0.001"/>
      </geometry>
    </collision>
  </link>
  <link name="pod_bin_4d_flap">
    <inertial>
      <mass value="0.01"/>
      <inertia ixx="0.0002835" ixy="0.0" ixz="0.0" iyy="0.0002835" iyz="0.0" izz="0.000324"/>
    </inertial>
    <visual>
      <origin xyz="0.1143 0.0127 -0.0005"/>
      <geometry>
        <box size="0.2286 0.0254 0.001"/>
      </geometry>
      <material name="yellow_fabric"/>
    </visual>
    <collision>
      <origin xyz="0.1143 0.0127 -0.0005"/>
      <geometry>
        <box size="0.2286 0.0254 0.001"/>
      </geometry>
    </collision>
  </link>
  <joint name="pod_bin_4d_pod_bin_4d_bottom" type="fixed">
    <parent link="pod_bin_4d"/>
    <child link="pod_bin_4d_bottom"/>
  </joint>
  <joint name="pod_bin_4d_pod_bin_4d_left" type="fixed">
    <origin rpy="1.5707963267948966 0 1.5707963267948966 " xyz="0 0 0"/>
    <parent link="pod_bin_4d"/>
    <child link="pod_bin_4d_left"/>
  </joint>
  <joint name="pod_bin_4d_pod_bin_4d_right" type="fixed">
    <origin rpy="1.5707963267948966 0 1.5707963267948966 " xyz="0.2286 0 0"/>
    <parent link="pod_bin_4d"/>
    <child link="pod_bin_4d_right"/>
  </joint>
  <joint name="pod_bin_4d_pod_bin_4d_top" type="fixed">
    <origin rpy="0 0 0" xyz="0 0 0.15239999999999998"/>
    <parent link="pod_bin_4d"/>
    <child link="pod_bin_4d_top"/>
  </joint>
  <joint name="pod_bin_4d_pod_bin_4d_back" type="fixed">
    <origin rpy="1.5707963267948966 0 0" xyz="0 0.15239999999999998 0"/>
    <parent link="pod_bin_4d"/>
    <child link="pod_bin_4d_back"/>
  </joint>
  <joint name="pod_bin_4d_pod_bin_4d_flap" type="fixed">
    <origin rpy="1.5707963267948966 0 0" xyz="0 0 0"/>
    <parent link="pod_bin_4d"/>
    <child link="pod_bin_4d_flap"/>
  </joint>
  <joint name="pod_shelf_d_pod_bin_4d_joint" type="fixed">
    <origin xyz="0.6858 0 0"/>
    <parent link="pod_shelf_d"/>
    <child link="pod_bin_4d"/>
  </joint>
  <joint name="pod_fabric_base_pod_shelf_d_joint" type="fixed">
    <origin xyz="0 0 0.55245"/>
    <parent link="pod_fabric_base"/>
    <child link="pod_shelf_d"/>
  </joint>
  <link name="pod_shelf_e"/>
  <link name="pod_bin_1e"/>
  <link name="pod_bin_1e_bottom">
    <inertial>
      <mass value="0.01"/>
      <inertia ixx="0.0002835" ixy="0.0" ixz="0.0" iyy="0.0002835" iyz="0.0" izz="0.000324"/>
    </inertial>
    <visual>
      <origin xyz="0.1143 0.07619999999999999 -0.0005"/>
      <geometry>
        <box size="0.2286 0.15239999999999998 0.001"/>
      </geometry>
      <material name="yellow_fabric"/>
    </visual>
    <collision>
      <origin xyz="0.1143 0.07619999999999999 -0.0005"/>
      <geometry>
        <box size="0.2286 0.15239999999999998 0.001"/>
      </geometry>
    </collision>
  </link>
  <link name="pod_bin_1e_left">
    <inertial>
      <mass value="0.01"/>
      <inertia ixx="0.0002835" ixy="0.0" ixz="0.0" iyy="0.0002835" iyz="0.0" izz="0.000324"/>
    </inertial>
    <visual>
      <origin xyz="0.07619999999999999 0.05715 -0.0005"/>
      <geometry>
        <box size="0.15239999999999998 0.1143 0.001"/>
      </geometry>
      <material name="yellow_fabric"/>
    </visual>
    <collision>
      <origin xyz="0.07619999999999999 0.05715 -0.0005"/>
      <geometry>
        <box size="0.15239999999999998 0.1143 0.001"/>
      </geometry>
    </collision>
  </link>
  <link name="pod_bin_1e_right">
    <inertial>
      <mass value="0.01"/>
      <inertia ixx="0.0002835" ixy="0.0" ixz="0.0" iyy="0.0002835" iyz="0.0" izz="0.000324"/>
    </inertial>
    <visual>
      <origin xyz="0.07619999999999999 0.05715 -0.0005"/>
      <geometry>
        <box size="0.15239999999999998 0.1143 0.001"/>
      </geometry>
      <material name="yellow_fabric"/>
    </visual>
    <collision>
      <origin xyz="0.07619999999999999 0.05715 -0.0005"/>
      <geometry>
        <box size="0.15239999999999998 0.1143 0.001"/>
      </geometry>
    </collision>
  </link>
  <link name="pod_bin_1e_top">
    <inertial>
      <mass value="0.01"/>
      <inertia ixx="0.0002835" ixy="0.0" ixz="0.0" iyy="0.0002835" iyz="0.0" izz="0.000324"/>
    </inertial>
    <visual>
      <origin xyz="0.1143 0.07619999999999999 -0.0005"/>
      <geometry>
        <box size="0.2286 0.15239999999999998 0.001"/>
      </geometry>
      <material name="yellow_fabric"/>
    </visual>
    <collision>
      <origin xyz="0.1143 0.07619999999999999 -0.0005"/>
      <geometry>
        <box size="0.2286 0.15239999999999998 0.001"/>
      </geometry>
    </collision>
  </link>
  <link name="pod_bin_1e_back">
    <inertial>
      <mass value="0.01"/>
      <inertia ixx="0.0002835" ixy="0.0" ixz="0.0" iyy="0.0002835" iyz="0.0" izz="0.000324"/>
    </inertial>
    <visual>
      <origin xyz="0.1143 0.05715 -0.0005"/>
      <geometry>
        <box size="0.2286 0.1143 0.001"/>
      </geometry>
      <material name="yellow_fabric"/>
    </visual>
    <collision>
      <origin xyz="0.1143 0.05715 -0.0005"/>
      <geometry>
        <box size="0.2286 0.1143 0.001"/>
      </geometry>
    </collision>
  </link>
  <link name="pod_bin_1e_flap">
    <inertial>
      <mass value="0.01"/>
      <inertia ixx="0.0002835" ixy="0.0" ixz="0.0" iyy="0.0002835" iyz="0.0" izz="0.000324"/>
    </inertial>
    <visual>
      <origin xyz="0.1143 0.0127 -0.0005"/>
      <geometry>
        <box size="0.2286 0.0254 0.001"/>
      </geometry>
      <material name="yellow_fabric"/>
    </visual>
    <collision>
      <origin xyz="0.1143 0.0127 -0.0005"/>
      <geometry>
        <box size="0.2286 0.0254 0.001"/>
      </geometry>
    </collision>
  </link>
  <joint name="pod_bin_1e_pod_bin_1e_bottom" type="fixed">
    <parent link="pod_bin_1e"/>
    <child link="pod_bin_1e_bottom"/>
  </joint>
  <joint name="pod_bin_1e_pod_bin_1e_left" type="fixed">
    <origin rpy="1.5707963267948966 0 1.5707963267948966 " xyz="0 0 0"/>
    <parent link="pod_bin_1e"/>
    <child link="pod_bin_1e_left"/>
  </joint>
  <joint name="pod_bin_1e_pod_bin_1e_right" type="fixed">
    <origin rpy="1.5707963267948966 0 1.5707963267948966 " xyz="0.2286 0 0"/>
    <parent link="pod_bin_1e"/>
    <child link="pod_bin_1e_right"/>
  </joint>
  <joint name="pod_bin_1e_pod_bin_1e_top" type="fixed">
    <origin rpy="0 0 0" xyz="0 0 0.1143"/>
    <parent link="pod_bin_1e"/>
    <child link="pod_bin_1e_top"/>
  </joint>
  <joint name="pod_bin_1e_pod_bin_1e_back" type="fixed">
    <origin rpy="1.5707963267948966 0 0" xyz="0 0.15239999999999998 0"/>
    <parent link="pod_bin_1e"/>
    <child link="pod_bin_1e_back"/>
  </joint>
  <joint name="pod_bin_1e_pod_bin_1e_flap" type="fixed">
    <origin rpy="1.5707963267948966 0 0" xyz="0 0 0"/>
    <parent link="pod_bin_1e"/>
    <child link="pod_bin_1e_flap"/>
  </joint>
  <joint name="pod_shelf_e_pod_bin_1e_joint" type="fixed">
    <origin xyz="0.0 0 0"/>
    <parent link="pod_shelf_e"/>
    <child link="pod_bin_1e"/>
  </joint>
  <link name="pod_bin_2e"/>
  <link name="pod_bin_2e_bottom">
    <inertial>
      <mass value="0.01"/>
      <inertia ixx="0.0002835" ixy="0.0" ixz="0.0" iyy="0.0002835" iyz="0.0" izz="0.000324"/>
    </inertial>
    <visual>
      <origin xyz="0.1143 0.07619999999999999 -0.0005"/>
      <geometry>
        <box size="0.2286 0.15239999999999998 0.001"/>
      </geometry>
      <material name="yellow_fabric"/>
    </visual>
    <collision>
      <origin xyz="0.1143 0.07619999999999999 -0.0005"/>
      <geometry>
        <box size="0.2286 0.15239999999999998 0.001"/>
      </geometry>
    </collision>
  </link>
  <link name="pod_bin_2e_left">
    <inertial>
      <mass value="0.01"/>
      <inertia ixx="0.0002835" ixy="0.0" ixz="0.0" iyy="0.0002835" iyz="0.0" izz="0.000324"/>
    </inertial>
    <visual>
      <origin xyz="0.07619999999999999 0.05715 -0.0005"/>
      <geometry>
        <box size="0.15239999999999998 0.1143 0.001"/>
      </geometry>
      <material name="yellow_fabric"/>
    </visual>
    <collision>
      <origin xyz="0.07619999999999999 0.05715 -0.0005"/>
      <geometry>
        <box size="0.15239999999999998 0.1143 0.001"/>
      </geometry>
    </collision>
  </link>
  <link name="pod_bin_2e_right">
    <inertial>
      <mass value="0.01"/>
      <inertia ixx="0.0002835" ixy="0.0" ixz="0.0" iyy="0.0002835" iyz="0.0" izz="0.000324"/>
    </inertial>
    <visual>
      <origin xyz="0.07619999999999999 0.05715 -0.0005"/>
      <geometry>
        <box size="0.15239999999999998 0.1143 0.001"/>
      </geometry>
      <material name="yellow_fabric"/>
    </visual>
    <collision>
      <origin xyz="0.07619999999999999 0.05715 -0.0005"/>
      <geometry>
        <box size="0.15239999999999998 0.1143 0.001"/>
      </geometry>
    </collision>
  </link>
  <link name="pod_bin_2e_top">
    <inertial>
      <mass value="0.01"/>
      <inertia ixx="0.0002835" ixy="0.0" ixz="0.0" iyy="0.0002835" iyz="0.0" izz="0.000324"/>
    </inertial>
    <visual>
      <origin xyz="0.1143 0.07619999999999999 -0.0005"/>
      <geometry>
        <box size="0.2286 0.15239999999999998 0.001"/>
      </geometry>
      <material name="yellow_fabric"/>
    </visual>
    <collision>
      <origin xyz="0.1143 0.07619999999999999 -0.0005"/>
      <geometry>
        <box size="0.2286 0.15239999999999998 0.001"/>
      </geometry>
    </collision>
  </link>
  <link name="pod_bin_2e_back">
    <inertial>
      <mass value="0.01"/>
      <inertia ixx="0.0002835" ixy="0.0" ixz="0.0" iyy="0.0002835" iyz="0.0" izz="0.000324"/>
    </inertial>
    <visual>
      <origin xyz="0.1143 0.05715 -0.0005"/>
      <geometry>
        <box size="0.2286 0.1143 0.001"/>
      </geometry>
      <material name="yellow_fabric"/>
    </visual>
    <collision>
      <origin xyz="0.1143 0.05715 -0.0005"/>
      <geometry>
        <box size="0.2286 0.1143 0.001"/>
      </geometry>
    </collision>
  </link>
  <link name="pod_bin_2e_flap">
    <inertial>
      <mass value="0.01"/>
      <inertia ixx="0.0002835" ixy="0.0" ixz="0.0" iyy="0.0002835" iyz="0.0" izz="0.000324"/>
    </inertial>
    <visual>
      <origin xyz="0.1143 0.0127 -0.0005"/>
      <geometry>
        <box size="0.2286 0.0254 0.001"/>
      </geometry>
      <material name="yellow_fabric"/>
    </visual>
    <collision>
      <origin xyz="0.1143 0.0127 -0.0005"/>
      <geometry>
        <box size="0.2286 0.0254 0.001"/>
      </geometry>
    </collision>
  </link>
  <joint name="pod_bin_2e_pod_bin_2e_bottom" type="fixed">
    <parent link="pod_bin_2e"/>
    <child link="pod_bin_2e_bottom"/>
  </joint>
  <joint name="pod_bin_2e_pod_bin_2e_left" type="fixed">
    <origin rpy="1.5707963267948966 0 1.5707963267948966 " xyz="0 0 0"/>
    <parent link="pod_bin_2e"/>
    <child link="pod_bin_2e_left"/>
  </joint>
  <joint name="pod_bin_2e_pod_bin_2e_right" type="fixed">
    <origin rpy="1.5707963267948966 0 1.5707963267948966 " xyz="0.2286 0 0"/>
    <parent link="pod_bin_2e"/>
    <child link="pod_bin_2e_right"/>
  </joint>
  <joint name="pod_bin_2e_pod_bin_2e_top" type="fixed">
    <origin rpy="0 0 0" xyz="0 0 0.1143"/>
    <parent link="pod_bin_2e"/>
    <child link="pod_bin_2e_top"/>
  </joint>
  <joint name="pod_bin_2e_pod_bin_2e_back" type="fixed">
    <origin rpy="1.5707963267948966 0 0" xyz="0 0.15239999999999998 0"/>
    <parent link="pod_bin_2e"/>
    <child link="pod_bin_2e_back"/>
  </joint>
  <joint name="pod_bin_2e_pod_bin_2e_flap" type="fixed">
    <origin rpy="1.5707963267948966 0 0" xyz="0 0 0"/>
    <parent link="pod_bin_2e"/>
    <child link="pod_bin_2e_flap"/>
  </joint>
  <joint name="pod_shelf_e_pod_bin_2e_joint" type="fixed">
    <origin xyz="0.2286 0 0"/>
    <parent link="pod_shelf_e"/>
    <child link="pod_bin_2e"/>
  </joint>
  <link name="pod_bin_3e"/>
  <link name="pod_bin_3e_bottom">
    <inertial>
      <mass value="0.01"/>
      <inertia ixx="0.0002835" ixy="0.0" ixz="0.0" iyy="0.0002835" iyz="0.0" izz="0.000324"/>
    </inertial>
    <visual>
      <origin xyz="0.1143 0.07619999999999999 -0.0005"/>
      <geometry>
        <box size="0.2286 0.15239999999999998 0.001"/>
      </geometry>
      <material name="yellow_fabric"/>
    </visual>
    <collision>
      <origin xyz="0.1143 0.07619999999999999 -0.0005"/>
      <geometry>
        <box size="0.2286 0.15239999999999998 0.001"/>
      </geometry>
    </collision>
  </link>
  <link name="pod_bin_3e_left">
    <inertial>
      <mass value="0.01"/>
      <inertia ixx="0.0002835" ixy="0.0" ixz="0.0" iyy="0.0002835" iyz="0.0" izz="0.000324"/>
    </inertial>
    <visual>
      <origin xyz="0.07619999999999999 0.05715 -0.0005"/>
      <geometry>
        <box size="0.15239999999999998 0.1143 0.001"/>
      </geometry>
      <material name="yellow_fabric"/>
    </visual>
    <collision>
      <origin xyz="0.07619999999999999 0.05715 -0.0005"/>
      <geometry>
        <box size="0.15239999999999998 0.1143 0.001"/>
      </geometry>
    </collision>
  </link>
  <link name="pod_bin_3e_right">
    <inertial>
      <mass value="0.01"/>
      <inertia ixx="0.0002835" ixy="0.0" ixz="0.0" iyy="0.0002835" iyz="0.0" izz="0.000324"/>
    </inertial>
    <visual>
      <origin xyz="0.07619999999999999 0.05715 -0.0005"/>
      <geometry>
        <box size="0.15239999999999998 0.1143 0.001"/>
      </geometry>
      <material name="yellow_fabric"/>
    </visual>
    <collision>
      <origin xyz="0.07619999999999999 0.05715 -0.0005"/>
      <geometry>
        <box size="0.15239999999999998 0.1143 0.001"/>
      </geometry>
    </collision>
  </link>
  <link name="pod_bin_3e_top">
    <inertial>
      <mass value="0.01"/>
      <inertia ixx="0.0002835" ixy="0.0" ixz="0.0" iyy="0.0002835" iyz="0.0" izz="0.000324"/>
    </inertial>
    <visual>
      <origin xyz="0.1143 0.07619999999999999 -0.0005"/>
      <geometry>
        <box size="0.2286 0.15239999999999998 0.001"/>
      </geometry>
      <material name="yellow_fabric"/>
    </visual>
    <collision>
      <origin xyz="0.1143 0.07619999999999999 -0.0005"/>
      <geometry>
        <box size="0.2286 0.15239999999999998 0.001"/>
      </geometry>
    </collision>
  </link>
  <link name="pod_bin_3e_back">
    <inertial>
      <mass value="0.01"/>
      <inertia ixx="0.0002835" ixy="0.0" ixz="0.0" iyy="0.0002835" iyz="0.0" izz="0.000324"/>
    </inertial>
    <visual>
      <origin xyz="0.1143 0.05715 -0.0005"/>
      <geometry>
        <box size="0.2286 0.1143 0.001"/>
      </geometry>
      <material name="yellow_fabric"/>
    </visual>
    <collision>
      <origin xyz="0.1143 0.05715 -0.0005"/>
      <geometry>
        <box size="0.2286 0.1143 0.001"/>
      </geometry>
    </collision>
  </link>
  <link name="pod_bin_3e_flap">
    <inertial>
      <mass value="0.01"/>
      <inertia ixx="0.0002835" ixy="0.0" ixz="0.0" iyy="0.0002835" iyz="0.0" izz="0.000324"/>
    </inertial>
    <visual>
      <origin xyz="0.1143 0.0127 -0.0005"/>
      <geometry>
        <box size="0.2286 0.0254 0.001"/>
      </geometry>
      <material name="yellow_fabric"/>
    </visual>
    <collision>
      <origin xyz="0.1143 0.0127 -0.0005"/>
      <geometry>
        <box size="0.2286 0.0254 0.001"/>
      </geometry>
    </collision>
  </link>
  <joint name="pod_bin_3e_pod_bin_3e_bottom" type="fixed">
    <parent link="pod_bin_3e"/>
    <child link="pod_bin_3e_bottom"/>
  </joint>
  <joint name="pod_bin_3e_pod_bin_3e_left" type="fixed">
    <origin rpy="1.5707963267948966 0 1.5707963267948966 " xyz="0 0 0"/>
    <parent link="pod_bin_3e"/>
    <child link="pod_bin_3e_left"/>
  </joint>
  <joint name="pod_bin_3e_pod_bin_3e_right" type="fixed">
    <origin rpy="1.5707963267948966 0 1.5707963267948966 " xyz="0.2286 0 0"/>
    <parent link="pod_bin_3e"/>
    <child link="pod_bin_3e_right"/>
  </joint>
  <joint name="pod_bin_3e_pod_bin_3e_top" type="fixed">
    <origin rpy="0 0 0" xyz="0 0 0.1143"/>
    <parent link="pod_bin_3e"/>
    <child link="pod_bin_3e_top"/>
  </joint>
  <joint name="pod_bin_3e_pod_bin_3e_back" type="fixed">
    <origin rpy="1.5707963267948966 0 0" xyz="0 0.15239999999999998 0"/>
    <parent link="pod_bin_3e"/>
    <child link="pod_bin_3e_back"/>
  </joint>
  <joint name="pod_bin_3e_pod_bin_3e_flap" type="fixed">
    <origin rpy="1.5707963267948966 0 0" xyz="0 0 0"/>
    <parent link="pod_bin_3e"/>
    <child link="pod_bin_3e_flap"/>
  </joint>
  <joint name="pod_shelf_e_pod_bin_3e_joint" type="fixed">
    <origin xyz="0.4572 0 0"/>
    <parent link="pod_shelf_e"/>
    <child link="pod_bin_3e"/>
  </joint>
  <link name="pod_bin_4e"/>
  <link name="pod_bin_4e_bottom">
    <inertial>
      <mass value="0.01"/>
      <inertia ixx="0.0002835" ixy="0.0" ixz="0.0" iyy="0.0002835" iyz="0.0" izz="0.000324"/>
    </inertial>
    <visual>
      <origin xyz="0.1143 0.07619999999999999 -0.0005"/>
      <geometry>
        <box size="0.2286 0.15239999999999998 0.001"/>
      </geometry>
      <material name="yellow_fabric"/>
    </visual>
    <collision>
      <origin xyz="0.1143 0.07619999999999999 -0.0005"/>
      <geometry>
        <box size="0.2286 0.15239999999999998 0.001"/>
      </geometry>
    </collision>
  </link>
  <link name="pod_bin_4e_left">
    <inertial>
      <mass value="0.01"/>
      <inertia ixx="0.0002835" ixy="0.0" ixz="0.0" iyy="0.0002835" iyz="0.0" izz="0.000324"/>
    </inertial>
    <visual>
      <origin xyz="0.07619999999999999 0.05715 -0.0005"/>
      <geometry>
        <box size="0.15239999999999998 0.1143 0.001"/>
      </geometry>
      <material name="yellow_fabric"/>
    </visual>
    <collision>
      <origin xyz="0.07619999999999999 0.05715 -0.0005"/>
      <geometry>
        <box size="0.15239999999999998 0.1143 0.001"/>
      </geometry>
    </collision>
  </link>
  <link name="pod_bin_4e_right">
    <inertial>
      <mass value="0.01"/>
      <inertia ixx="0.0002835" ixy="0.0" ixz="0.0" iyy="0.0002835" iyz="0.0" izz="0.000324"/>
    </inertial>
    <visual>
      <origin xyz="0.07619999999999999 0.05715 -0.0005"/>
      <geometry>
        <box size="0.15239999999999998 0.1143 0.001"/>
      </geometry>
      <material name="yellow_fabric"/>
    </visual>
    <collision>
      <origin xyz="0.07619999999999999 0.05715 -0.0005"/>
      <geometry>
        <box size="0.15239999999999998 0.1143 0.001"/>
      </geometry>
    </collision>
  </link>
  <link name="pod_bin_4e_top">
    <inertial>
      <mass value="0.01"/>
      <inertia ixx="0.0002835" ixy="0.0" ixz="0.0" iyy="0.0002835" iyz="0.0" izz="0.000324"/>
    </inertial>
    <visual>
      <origin xyz="0.1143 0.07619999999999999 -0.0005"/>
      <geometry>
        <box size="0.2286 0.15239999999999998 0.001"/>
      </geometry>
      <material name="yellow_fabric"/>
    </visual>
    <collision>
      <origin xyz="0.1143 0.07619999999999999 -0.0005"/>
      <geometry>
        <box size="0.2286 0.15239999999999998 0.001"/>
      </geometry>
    </collision>
  </link>
  <link name="pod_bin_4e_back">
    <inertial>
      <mass value="0.01"/>
      <inertia ixx="0.0002835" ixy="0.0" ixz="0.0" iyy="0.0002835" iyz="0.0" izz="0.000324"/>
    </inertial>
    <visual>
      <origin xyz="0.1143 0.05715 -0.0005"/>
      <geometry>
        <box size="0.2286 0.1143 0.001"/>
      </geometry>
      <material name="yellow_fabric"/>
    </visual>
    <collision>
      <origin xyz="0.1143 0.05715 -0.0005"/>
      <geometry>
        <box size="0.2286 0.1143 0.001"/>
      </geometry>
    </collision>
  </link>
  <link name="pod_bin_4e_flap">
    <inertial>
      <mass value="0.01"/>
      <inertia ixx="0.0002835" ixy="0.0" ixz="0.0" iyy="0.0002835" iyz="0.0" izz="0.000324"/>
    </inertial>
    <visual>
      <origin xyz="0.1143 0.0127 -0.0005"/>
      <geometry>
        <box size="0.2286 0.0254 0.001"/>
      </geometry>
      <material name="yellow_fabric"/>
    </visual>
    <collision>
      <origin xyz="0.1143 0.0127 -0.0005"/>
      <geometry>
        <box size="0.2286 0.0254 0.001"/>
      </geometry>
    </collision>
  </link>
  <joint name="pod_bin_4e_pod_bin_4e_bottom" type="fixed">
    <parent link="pod_bin_4e"/>
    <child link="pod_bin_4e_bottom"/>
  </joint>
  <joint name="pod_bin_4e_pod_bin_4e_left" type="fixed">
    <origin rpy="1.5707963267948966 0 1.5707963267948966 " xyz="0 0 0"/>
    <parent link="pod_bin_4e"/>
    <child link="pod_bin_4e_left"/>
  </joint>
  <joint name="pod_bin_4e_pod_bin_4e_right" type="fixed">
    <origin rpy="1.5707963267948966 0 1.5707963267948966 " xyz="0.2286 0 0"/>
    <parent link="pod_bin_4e"/>
    <child link="pod_bin_4e_right"/>
  </joint>
  <joint name="pod_bin_4e_pod_bin_4e_top" type="fixed">
    <origin rpy="0 0 0" xyz="0 0 0.1143"/>
    <parent link="pod_bin_4e"/>
    <child link="pod_bin_4e_top"/>
  </joint>
  <joint name="pod_bin_4e_pod_bin_4e_back" type="fixed">
    <origin rpy="1.5707963267948966 0 0" xyz="0 0.15239999999999998 0"/>
    <parent link="pod_bin_4e"/>
    <child link="pod_bin_4e_back"/>
  </joint>
  <joint name="pod_bin_4e_pod_bin_4e_flap" type="fixed">
    <origin rpy="1.5707963267948966 0 0" xyz="0 0 0"/>
    <parent link="pod_bin_4e"/>
    <child link="pod_bin_4e_flap"/>
  </joint>
  <joint name="pod_shelf_e_pod_bin_4e_joint" type="fixed">
    <origin xyz="0.6858 0 0"/>
    <parent link="pod_shelf_e"/>
    <child link="pod_bin_4e"/>
  </joint>
  <joint name="pod_fabric_base_pod_shelf_e_joint" type="fixed">
    <origin xyz="0 0 0.70485"/>
    <parent link="pod_fabric_base"/>
    <child link="pod_shelf_e"/>
  </joint>
  <link name="pod_shelf_f"/>
  <link name="pod_bin_1f"/>
  <link name="pod_bin_1f_bottom">
    <inertial>
      <mass value="0.01"/>
      <inertia ixx="0.0002835" ixy="0.0" ixz="0.0" iyy="0.0002835" iyz="0.0" izz="0.000324"/>
    </inertial>
    <visual>
      <origin xyz="0.1143 0.07619999999999999 -0.0005"/>
      <geometry>
        <box size="0.2286 0.15239999999999998 0.001"/>
      </geometry>
      <material name="yellow_fabric"/>
    </visual>
    <collision>
      <origin xyz="0.1143 0.07619999999999999 -0.0005"/>
      <geometry>
        <box size="0.2286 0.15239999999999998 0.001"/>
      </geometry>
    </collision>
  </link>
  <link name="pod_bin_1f_left">
    <inertial>
      <mass value="0.01"/>
      <inertia ixx="0.0002835" ixy="0.0" ixz="0.0" iyy="0.0002835" iyz="0.0" izz="0.000324"/>
    </inertial>
    <visual>
      <origin xyz="0.07619999999999999 0.111125 -0.0005"/>
      <geometry>
        <box size="0.15239999999999998 0.22225 0.001"/>
      </geometry>
      <material name="yellow_fabric"/>
    </visual>
    <collision>
      <origin xyz="0.07619999999999999 0.111125 -0.0005"/>
      <geometry>
        <box size="0.15239999999999998 0.22225 0.001"/>
      </geometry>
    </collision>
  </link>
  <link name="pod_bin_1f_right">
    <inertial>
      <mass value="0.01"/>
      <inertia ixx="0.0002835" ixy="0.0" ixz="0.0" iyy="0.0002835" iyz="0.0" izz="0.000324"/>
    </inertial>
    <visual>
      <origin xyz="0.07619999999999999 0.111125 -0.0005"/>
      <geometry>
        <box size="0.15239999999999998 0.22225 0.001"/>
      </geometry>
      <material name="yellow_fabric"/>
    </visual>
    <collision>
      <origin xyz="0.07619999999999999 0.111125 -0.0005"/>
      <geometry>
        <box size="0.15239999999999998 0.22225 0.001"/>
      </geometry>
    </collision>
  </link>
  <link name="pod_bin_1f_top">
    <inertial>
      <mass value="0.01"/>
      <inertia ixx="0.0002835" ixy="0.0" ixz="0.0" iyy="0.0002835" iyz="0.0" izz="0.000324"/>
    </inertial>
    <visual>
      <origin xyz="0.1143 0.07619999999999999 -0.0005"/>
      <geometry>
        <box size="0.2286 0.15239999999999998 0.001"/>
      </geometry>
      <material name="yellow_fabric"/>
    </visual>
    <collision>
      <origin xyz="0.1143 0.07619999999999999 -0.0005"/>
      <geometry>
        <box size="0.2286 0.15239999999999998 0.001"/>
      </geometry>
    </collision>
  </link>
  <link name="pod_bin_1f_back">
    <inertial>
      <mass value="0.01"/>
      <inertia ixx="0.0002835" ixy="0.0" ixz="0.0" iyy="0.0002835" iyz="0.0" izz="0.000324"/>
    </inertial>
    <visual>
      <origin xyz="0.1143 0.111125 -0.0005"/>
      <geometry>
        <box size="0.2286 0.22225 0.001"/>
      </geometry>
      <material name="yellow_fabric"/>
    </visual>
    <collision>
      <origin xyz="0.1143 0.111125 -0.0005"/>
      <geometry>
        <box size="0.2286 0.22225 0.001"/>
      </geometry>
    </collision>
  </link>
  <link name="pod_bin_1f_flap">
    <inertial>
      <mass value="0.01"/>
      <inertia ixx="0.0002835" ixy="0.0" ixz="0.0" iyy="0.0002835" iyz="0.0" izz="0.000324"/>
    </inertial>
    <visual>
      <origin xyz="0.1143 0.0127 -0.0005"/>
      <geometry>
        <box size="0.2286 0.0254 0.001"/>
      </geometry>
      <material name="yellow_fabric"/>
    </visual>
    <collision>
      <origin xyz="0.1143 0.0127 -0.0005"/>
      <geometry>
        <box size="0.2286 0.0254 0.001"/>
      </geometry>
    </collision>
  </link>
  <joint name="pod_bin_1f_pod_bin_1f_bottom" type="fixed">
    <parent link="pod_bin_1f"/>
    <child link="pod_bin_1f_bottom"/>
  </joint>
  <joint name="pod_bin_1f_pod_bin_1f_left" type="fixed">
    <origin rpy="1.5707963267948966 0 1.5707963267948966 " xyz="0 0 0"/>
    <parent link="pod_bin_1f"/>
    <child link="pod_bin_1f_left"/>
  </joint>
  <joint name="pod_bin_1f_pod_bin_1f_right" type="fixed">
    <origin rpy="1.5707963267948966 0 1.5707963267948966 " xyz="0.2286 0 0"/>
    <parent link="pod_bin_1f"/>
    <child link="pod_bin_1f_right"/>
  </joint>
  <joint name="pod_bin_1f_pod_bin_1f_top" type="fixed">
    <origin rpy="0 0 0" xyz="0 0 0.22225"/>
    <parent link="pod_bin_1f"/>
    <child link="pod_bin_1f_top"/>
  </joint>
  <joint name="pod_bin_1f_pod_bin_1f_back" type="fixed">
    <origin rpy="1.5707963267948966 0 0" xyz="0 0.15239999999999998 0"/>
    <parent link="pod_bin_1f"/>
    <child link="pod_bin_1f_back"/>
  </joint>
  <joint name="pod_bin_1f_pod_bin_1f_flap" type="fixed">
    <origin rpy="1.5707963267948966 0 0" xyz="0 0 0"/>
    <parent link="pod_bin_1f"/>
    <child link="pod_bin_1f_flap"/>
  </joint>
  <joint name="pod_shelf_f_pod_bin_1f_joint" type="fixed">
    <origin xyz="0.0 0 0"/>
    <parent link="pod_shelf_f"/>
    <child link="pod_bin_1f"/>
  </joint>
  <link name="pod_bin_2f"/>
  <link name="pod_bin_2f_bottom">
    <inertial>
      <mass value="0.01"/>
      <inertia ixx="0.0002835" ixy="0.0" ixz="0.0" iyy="0.0002835" iyz="0.0" izz="0.000324"/>
    </inertial>
    <visual>
      <origin xyz="0.1143 0.07619999999999999 -0.0005"/>
      <geometry>
        <box size="0.2286 0.15239999999999998 0.001"/>
      </geometry>
      <material name="yellow_fabric"/>
    </visual>
    <collision>
      <origin xyz="0.1143 0.07619999999999999 -0.0005"/>
      <geometry>
        <box size="0.2286 0.15239999999999998 0.001"/>
      </geometry>
    </collision>
  </link>
  <link name="pod_bin_2f_left">
    <inertial>
      <mass value="0.01"/>
      <inertia ixx="0.0002835" ixy="0.0" ixz="0.0" iyy="0.0002835" iyz="0.0" izz="0.000324"/>
    </inertial>
    <visual>
      <origin xyz="0.07619999999999999 0.111125 -0.0005"/>
      <geometry>
        <box size="0.15239999999999998 0.22225 0.001"/>
      </geometry>
      <material name="yellow_fabric"/>
    </visual>
    <collision>
      <origin xyz="0.07619999999999999 0.111125 -0.0005"/>
      <geometry>
        <box size="0.15239999999999998 0.22225 0.001"/>
      </geometry>
    </collision>
  </link>
  <link name="pod_bin_2f_right">
    <inertial>
      <mass value="0.01"/>
      <inertia ixx="0.0002835" ixy="0.0" ixz="0.0" iyy="0.0002835" iyz="0.0" izz="0.000324"/>
    </inertial>
    <visual>
      <origin xyz="0.07619999999999999 0.111125 -0.0005"/>
      <geometry>
        <box size="0.15239999999999998 0.22225 0.001"/>
      </geometry>
      <material name="yellow_fabric"/>
    </visual>
    <collision>
      <origin xyz="0.07619999999999999 0.111125 -0.0005"/>
      <geometry>
        <box size="0.15239999999999998 0.22225 0.001"/>
      </geometry>
    </collision>
  </link>
  <link name="pod_bin_2f_top">
    <inertial>
      <mass value="0.01"/>
      <inertia ixx="0.0002835" ixy="0.0" ixz="0.0" iyy="0.0002835" iyz="0.0" izz="0.000324"/>
    </inertial>
    <visual>
      <origin xyz="0.1143 0.07619999999999999 -0.0005"/>
      <geometry>
        <box size="0.2286 0.15239999999999998 0.001"/>
      </geometry>
      <material name="yellow_fabric"/>
    </visual>
    <collision>
      <origin xyz="0.1143 0.07619999999999999 -0.0005"/>
      <geometry>
        <box size="0.2286 0.15239999999999998 0.001"/>
      </geometry>
    </collision>
  </link>
  <link name="pod_bin_2f_back">
    <inertial>
      <mass value="0.01"/>
      <inertia ixx="0.0002835" ixy="0.0" ixz="0.0" iyy="0.0002835" iyz="0.0" izz="0.000324"/>
    </inertial>
    <visual>
      <origin xyz="0.1143 0.111125 -0.0005"/>
      <geometry>
        <box size="0.2286 0.22225 0.001"/>
      </geometry>
      <material name="yellow_fabric"/>
    </visual>
    <collision>
      <origin xyz="0.1143 0.111125 -0.0005"/>
      <geometry>
        <box size="0.2286 0.22225 0.001"/>
      </geometry>
    </collision>
  </link>
  <link name="pod_bin_2f_flap">
    <inertial>
      <mass value="0.01"/>
      <inertia ixx="0.0002835" ixy="0.0" ixz="0.0" iyy="0.0002835" iyz="0.0" izz="0.000324"/>
    </inertial>
    <visual>
      <origin xyz="0.1143 0.0127 -0.0005"/>
      <geometry>
        <box size="0.2286 0.0254 0.001"/>
      </geometry>
      <material name="yellow_fabric"/>
    </visual>
    <collision>
      <origin xyz="0.1143 0.0127 -0.0005"/>
      <geometry>
        <box size="0.2286 0.0254 0.001"/>
      </geometry>
    </collision>
  </link>
  <joint name="pod_bin_2f_pod_bin_2f_bottom" type="fixed">
    <parent link="pod_bin_2f"/>
    <child link="pod_bin_2f_bottom"/>
  </joint>
  <joint name="pod_bin_2f_pod_bin_2f_left" type="fixed">
    <origin rpy="1.5707963267948966 0 1.5707963267948966 " xyz="0 0 0"/>
    <parent link="pod_bin_2f"/>
    <child link="pod_bin_2f_left"/>
  </joint>
  <joint name="pod_bin_2f_pod_bin_2f_right" type="fixed">
    <origin rpy="1.5707963267948966 0 1.5707963267948966 " xyz="0.2286 0 0"/>
    <parent link="pod_bin_2f"/>
    <child link="pod_bin_2f_right"/>
  </joint>
  <joint name="pod_bin_2f_pod_bin_2f_top" type="fixed">
    <origin rpy="0 0 0" xyz="0 0 0.22225"/>
    <parent link="pod_bin_2f"/>
    <child link="pod_bin_2f_top"/>
  </joint>
  <joint name="pod_bin_2f_pod_bin_2f_back" type="fixed">
    <origin rpy="1.5707963267948966 0 0" xyz="0 0.15239999999999998 0"/>
    <parent link="pod_bin_2f"/>
    <child link="pod_bin_2f_back"/>
  </joint>
  <joint name="pod_bin_2f_pod_bin_2f_flap" type="fixed">
    <origin rpy="1.5707963267948966 0 0" xyz="0 0 0"/>
    <parent link="pod_bin_2f"/>
    <child link="pod_bin_2f_flap"/>
  </joint>
  <joint name="pod_shelf_f_pod_bin_2f_joint" type="fixed">
    <origin xyz="0.2286 0 0"/>
    <parent link="pod_shelf_f"/>
    <child link="pod_bin_2f"/>
  </joint>
  <link name="pod_bin_3f"/>
  <link name="pod_bin_3f_bottom">
    <inertial>
      <mass value="0.01"/>
      <inertia ixx="0.0002835" ixy="0.0" ixz="0.0" iyy="0.0002835" iyz="0.0" izz="0.000324"/>
    </inertial>
    <visual>
      <origin xyz="0.1143 0.07619999999999999 -0.0005"/>
      <geometry>
        <box size="0.2286 0.15239999999999998 0.001"/>
      </geometry>
      <material name="yellow_fabric"/>
    </visual>
    <collision>
      <origin xyz="0.1143 0.07619999999999999 -0.0005"/>
      <geometry>
        <box size="0.2286 0.15239999999999998 0.001"/>
      </geometry>
    </collision>
  </link>
  <link name="pod_bin_3f_left">
    <inertial>
      <mass value="0.01"/>
      <inertia ixx="0.0002835" ixy="0.0" ixz="0.0" iyy="0.0002835" iyz="0.0" izz="0.000324"/>
    </inertial>
    <visual>
      <origin xyz="0.07619999999999999 0.111125 -0.0005"/>
      <geometry>
        <box size="0.15239999999999998 0.22225 0.001"/>
      </geometry>
      <material name="yellow_fabric"/>
    </visual>
    <collision>
      <origin xyz="0.07619999999999999 0.111125 -0.0005"/>
      <geometry>
        <box size="0.15239999999999998 0.22225 0.001"/>
      </geometry>
    </collision>
  </link>
  <link name="pod_bin_3f_right">
    <inertial>
      <mass value="0.01"/>
      <inertia ixx="0.0002835" ixy="0.0" ixz="0.0" iyy="0.0002835" iyz="0.0" izz="0.000324"/>
    </inertial>
    <visual>
      <origin xyz="0.07619999999999999 0.111125 -0.0005"/>
      <geometry>
        <box size="0.15239999999999998 0.22225 0.001"/>
      </geometry>
      <material name="yellow_fabric"/>
    </visual>
    <collision>
      <origin xyz="0.07619999999999999 0.111125 -0.0005"/>
      <geometry>
        <box size="0.15239999999999998 0.22225 0.001"/>
      </geometry>
    </collision>
  </link>
  <link name="pod_bin_3f_top">
    <inertial>
      <mass value="0.01"/>
      <inertia ixx="0.0002835" ixy="0.0" ixz="0.0" iyy="0.0002835" iyz="0.0" izz="0.000324"/>
    </inertial>
    <visual>
      <origin xyz="0.1143 0.07619999999999999 -0.0005"/>
      <geometry>
        <box size="0.2286 0.15239999999999998 0.001"/>
      </geometry>
      <material name="yellow_fabric"/>
    </visual>
    <collision>
      <origin xyz="0.1143 0.07619999999999999 -0.0005"/>
      <geometry>
        <box size="0.2286 0.15239999999999998 0.001"/>
      </geometry>
    </collision>
  </link>
  <link name="pod_bin_3f_back">
    <inertial>
      <mass value="0.01"/>
      <inertia ixx="0.0002835" ixy="0.0" ixz="0.0" iyy="0.0002835" iyz="0.0" izz="0.000324"/>
    </inertial>
    <visual>
      <origin xyz="0.1143 0.111125 -0.0005"/>
      <geometry>
        <box size="0.2286 0.22225 0.001"/>
      </geometry>
      <material name="yellow_fabric"/>
    </visual>
    <collision>
      <origin xyz="0.1143 0.111125 -0.0005"/>
      <geometry>
        <box size="0.2286 0.22225 0.001"/>
      </geometry>
    </collision>
  </link>
  <link name="pod_bin_3f_flap">
    <inertial>
      <mass value="0.01"/>
      <inertia ixx="0.0002835" ixy="0.0" ixz="0.0" iyy="0.0002835" iyz="0.0" izz="0.000324"/>
    </inertial>
    <visual>
      <origin xyz="0.1143 0.0127 -0.0005"/>
      <geometry>
        <box size="0.2286 0.0254 0.001"/>
      </geometry>
      <material name="yellow_fabric"/>
    </visual>
    <collision>
      <origin xyz="0.1143 0.0127 -0.0005"/>
      <geometry>
        <box size="0.2286 0.0254 0.001"/>
      </geometry>
    </collision>
  </link>
  <joint name="pod_bin_3f_pod_bin_3f_bottom" type="fixed">
    <parent link="pod_bin_3f"/>
    <child link="pod_bin_3f_bottom"/>
  </joint>
  <joint name="pod_bin_3f_pod_bin_3f_left" type="fixed">
    <origin rpy="1.5707963267948966 0 1.5707963267948966 " xyz="0 0 0"/>
    <parent link="pod_bin_3f"/>
    <child link="pod_bin_3f_left"/>
  </joint>
  <joint name="pod_bin_3f_pod_bin_3f_right" type="fixed">
    <origin rpy="1.5707963267948966 0 1.5707963267948966 " xyz="0.2286 0 0"/>
    <parent link="pod_bin_3f"/>
    <child link="pod_bin_3f_right"/>
  </joint>
  <joint name="pod_bin_3f_pod_bin_3f_top" type="fixed">
    <origin rpy="0 0 0" xyz="0 0 0.22225"/>
    <parent link="pod_bin_3f"/>
    <child link="pod_bin_3f_top"/>
  </joint>
  <joint name="pod_bin_3f_pod_bin_3f_back" type="fixed">
    <origin rpy="1.5707963267948966 0 0" xyz="0 0.15239999999999998 0"/>
    <parent link="pod_bin_3f"/>
    <child link="pod_bin_3f_back"/>
  </joint>
  <joint name="pod_bin_3f_pod_bin_3f_flap" type="fixed">
    <origin rpy="1.5707963267948966 0 0" xyz="0 0 0"/>
    <parent link="pod_bin_3f"/>
    <child link="pod_bin_3f_flap"/>
  </joint>
  <joint name="pod_shelf_f_pod_bin_3f_joint" type="fixed">
    <origin xyz="0.4572 0 0"/>
    <parent link="pod_shelf_f"/>
    <child link="pod_bin_3f"/>
  </joint>
  <link name="pod_bin_4f"/>
  <link name="pod_bin_4f_bottom">
    <inertial>
      <mass value="0.01"/>
      <inertia ixx="0.0002835" ixy="0.0" ixz="0.0" iyy="0.0002835" iyz="0.0" izz="0.000324"/>
    </inertial>
    <visual>
      <origin xyz="0.1143 0.07619999999999999 -0.0005"/>
      <geometry>
        <box size="0.2286 0.15239999999999998 0.001"/>
      </geometry>
      <material name="yellow_fabric"/>
    </visual>
    <collision>
      <origin xyz="0.1143 0.07619999999999999 -0.0005"/>
      <geometry>
        <box size="0.2286 0.15239999999999998 0.001"/>
      </geometry>
    </collision>
  </link>
  <link name="pod_bin_4f_left">
    <inertial>
      <mass value="0.01"/>
      <inertia ixx="0.0002835" ixy="0.0" ixz="0.0" iyy="0.0002835" iyz="0.0" izz="0.000324"/>
    </inertial>
    <visual>
      <origin xyz="0.07619999999999999 0.111125 -0.0005"/>
      <geometry>
        <box size="0.15239999999999998 0.22225 0.001"/>
      </geometry>
      <material name="yellow_fabric"/>
    </visual>
    <collision>
      <origin xyz="0.07619999999999999 0.111125 -0.0005"/>
      <geometry>
        <box size="0.15239999999999998 0.22225 0.001"/>
      </geometry>
    </collision>
  </link>
  <link name="pod_bin_4f_right">
    <inertial>
      <mass value="0.01"/>
      <inertia ixx="0.0002835" ixy="0.0" ixz="0.0" iyy="0.0002835" iyz="0.0" izz="0.000324"/>
    </inertial>
    <visual>
      <origin xyz="0.07619999999999999 0.111125 -0.0005"/>
      <geometry>
        <box size="0.15239999999999998 0.22225 0.001"/>
      </geometry>
      <material name="yellow_fabric"/>
    </visual>
    <collision>
      <origin xyz="0.07619999999999999 0.111125 -0.0005"/>
      <geometry>
        <box size="0.15239999999999998 0.22225 0.001"/>
      </geometry>
    </collision>
  </link>
  <link name="pod_bin_4f_top">
    <inertial>
      <mass value="0.01"/>
      <inertia ixx="0.0002835" ixy="0.0" ixz="0.0" iyy="0.0002835" iyz="0.0" izz="0.000324"/>
    </inertial>
    <visual>
      <origin xyz="0.1143 0.07619999999999999 -0.0005"/>
      <geometry>
        <box size="0.2286 0.15239999999999998 0.001"/>
      </geometry>
      <material name="yellow_fabric"/>
    </visual>
    <collision>
      <origin xyz="0.1143 0.07619999999999999 -0.0005"/>
      <geometry>
        <box size="0.2286 0.15239999999999998 0.001"/>
      </geometry>
    </collision>
  </link>
  <link name="pod_bin_4f_back">
    <inertial>
      <mass value="0.01"/>
      <inertia ixx="0.0002835" ixy="0.0" ixz="0.0" iyy="0.0002835" iyz="0.0" izz="0.000324"/>
    </inertial>
    <visual>
      <origin xyz="0.1143 0.111125 -0.0005"/>
      <geometry>
        <box size="0.2286 0.22225 0.001"/>
      </geometry>
      <material name="yellow_fabric"/>
    </visual>
    <collision>
      <origin xyz="0.1143 0.111125 -0.0005"/>
      <geometry>
        <box size="0.2286 0.22225 0.001"/>
      </geometry>
    </collision>
  </link>
  <link name="pod_bin_4f_flap">
    <inertial>
      <mass value="0.01"/>
      <inertia ixx="0.0002835" ixy="0.0" ixz="0.0" iyy="0.0002835" iyz="0.0" izz="0.000324"/>
    </inertial>
    <visual>
      <origin xyz="0.1143 0.0127 -0.0005"/>
      <geometry>
        <box size="0.2286 0.0254 0.001"/>
      </geometry>
      <material name="yellow_fabric"/>
    </visual>
    <collision>
      <origin xyz="0.1143 0.0127 -0.0005"/>
      <geometry>
        <box size="0.2286 0.0254 0.001"/>
      </geometry>
    </collision>
  </link>
  <joint name="pod_bin_4f_pod_bin_4f_bottom" type="fixed">
    <parent link="pod_bin_4f"/>
    <child link="pod_bin_4f_bottom"/>
  </joint>
  <joint name="pod_bin_4f_pod_bin_4f_left" type="fixed">
    <origin rpy="1.5707963267948966 0 1.5707963267948966 " xyz="0 0 0"/>
    <parent link="pod_bin_4f"/>
    <child link="pod_bin_4f_left"/>
  </joint>
  <joint name="pod_bin_4f_pod_bin_4f_right" type="fixed">
    <origin rpy="1.5707963267948966 0 1.5707963267948966 " xyz="0.2286 0 0"/>
    <parent link="pod_bin_4f"/>
    <child link="pod_bin_4f_right"/>
  </joint>
  <joint name="pod_bin_4f_pod_bin_4f_top" type="fixed">
    <origin rpy="0 0 0" xyz="0 0 0.22225"/>
    <parent link="pod_bin_4f"/>
    <child link="pod_bin_4f_top"/>
  </joint>
  <joint name="pod_bin_4f_pod_bin_4f_back" type="fixed">
    <origin rpy="1.5707963267948966 0 0" xyz="0 0.15239999999999998 0"/>
    <parent link="pod_bin_4f"/>
    <child link="pod_bin_4f_back"/>
  </joint>
  <joint name="pod_bin_4f_pod_bin_4f_flap" type="fixed">
    <origin rpy="1.5707963267948966 0 0" xyz="0 0 0"/>
    <parent link="pod_bin_4f"/>
    <child link="pod_bin_4f_flap"/>
  </joint>
  <joint name="pod_shelf_f_pod_bin_4f_joint" type="fixed">
    <origin xyz="0.6858 0 0"/>
    <parent link="pod_shelf_f"/>
    <child link="pod_bin_4f"/>
  </joint>
  <joint name="pod_fabric_base_pod_shelf_f_joint" type="fixed">
    <origin xyz="0 0 0.8191499999999999"/>
    <parent link="pod_fabric_base"/>
    <child link="pod_shelf_f"/>
  </joint>
  <link name="pod_shelf_g"/>
  <link name="pod_bin_1g"/>
  <link name="pod_bin_1g_bottom">
    <inertial>
      <mass value="0.01"/>
      <inertia ixx="0.0002835" ixy="0.0" ixz="0.0" iyy="0.0002835" iyz="0.0" izz="0.000324"/>
    </inertial>
    <visual>
      <origin xyz="0.1143 0.07619999999999999 -0.0005"/>
      <geometry>
        <box size="0.2286 0.15239999999999998 0.001"/>
      </geometry>
      <material name="yellow_fabric"/>
    </visual>
    <collision>
      <origin xyz="0.1143 0.07619999999999999 -0.0005"/>
      <geometry>
        <box size="0.2286 0.15239999999999998 0.001"/>
      </geometry>
    </collision>
  </link>
  <link name="pod_bin_1g_left">
    <inertial>
      <mass value="0.01"/>
      <inertia ixx="0.0002835" ixy="0.0" ixz="0.0" iyy="0.0002835" iyz="0.0" izz="0.000324"/>
    </inertial>
    <visual>
      <origin xyz="0.07619999999999999 0.0635 -0.0005"/>
      <geometry>
        <box size="0.15239999999999998 0.127 0.001"/>
      </geometry>
      <material name="yellow_fabric"/>
    </visual>
    <collision>
      <origin xyz="0.07619999999999999 0.0635 -0.0005"/>
      <geometry>
        <box size="0.15239999999999998 0.127 0.001"/>
      </geometry>
    </collision>
  </link>
  <link name="pod_bin_1g_right">
    <inertial>
      <mass value="0.01"/>
      <inertia ixx="0.0002835" ixy="0.0" ixz="0.0" iyy="0.0002835" iyz="0.0" izz="0.000324"/>
    </inertial>
    <visual>
      <origin xyz="0.07619999999999999 0.0635 -0.0005"/>
      <geometry>
        <box size="0.15239999999999998 0.127 0.001"/>
      </geometry>
      <material name="yellow_fabric"/>
    </visual>
    <collision>
      <origin xyz="0.07619999999999999 0.0635 -0.0005"/>
      <geometry>
        <box size="0.15239999999999998 0.127 0.001"/>
      </geometry>
    </collision>
  </link>
  <link name="pod_bin_1g_top">
    <inertial>
      <mass value="0.01"/>
      <inertia ixx="0.0002835" ixy="0.0" ixz="0.0" iyy="0.0002835" iyz="0.0" izz="0.000324"/>
    </inertial>
    <visual>
      <origin xyz="0.1143 0.07619999999999999 -0.0005"/>
      <geometry>
        <box size="0.2286 0.15239999999999998 0.001"/>
      </geometry>
      <material name="yellow_fabric"/>
    </visual>
    <collision>
      <origin xyz="0.1143 0.07619999999999999 -0.0005"/>
      <geometry>
        <box size="0.2286 0.15239999999999998 0.001"/>
      </geometry>
    </collision>
  </link>
  <link name="pod_bin_1g_back">
    <inertial>
      <mass value="0.01"/>
      <inertia ixx="0.0002835" ixy="0.0" ixz="0.0" iyy="0.0002835" iyz="0.0" izz="0.000324"/>
    </inertial>
    <visual>
      <origin xyz="0.1143 0.0635 -0.0005"/>
      <geometry>
        <box size="0.2286 0.127 0.001"/>
      </geometry>
      <material name="yellow_fabric"/>
    </visual>
    <collision>
      <origin xyz="0.1143 0.0635 -0.0005"/>
      <geometry>
        <box size="0.2286 0.127 0.001"/>
      </geometry>
    </collision>
  </link>
  <link name="pod_bin_1g_flap">
    <inertial>
      <mass value="0.01"/>
      <inertia ixx="0.0002835" ixy="0.0" ixz="0.0" iyy="0.0002835" iyz="0.0" izz="0.000324"/>
    </inertial>
    <visual>
      <origin xyz="0.1143 0.0127 -0.0005"/>
      <geometry>
        <box size="0.2286 0.0254 0.001"/>
      </geometry>
      <material name="yellow_fabric"/>
    </visual>
    <collision>
      <origin xyz="0.1143 0.0127 -0.0005"/>
      <geometry>
        <box size="0.2286 0.0254 0.001"/>
      </geometry>
    </collision>
  </link>
  <joint name="pod_bin_1g_pod_bin_1g_bottom" type="fixed">
    <parent link="pod_bin_1g"/>
    <child link="pod_bin_1g_bottom"/>
  </joint>
  <joint name="pod_bin_1g_pod_bin_1g_left" type="fixed">
    <origin rpy="1.5707963267948966 0 1.5707963267948966 " xyz="0 0 0"/>
    <parent link="pod_bin_1g"/>
    <child link="pod_bin_1g_left"/>
  </joint>
  <joint name="pod_bin_1g_pod_bin_1g_right" type="fixed">
    <origin rpy="1.5707963267948966 0 1.5707963267948966 " xyz="0.2286 0 0"/>
    <parent link="pod_bin_1g"/>
    <child link="pod_bin_1g_right"/>
  </joint>
  <joint name="pod_bin_1g_pod_bin_1g_top" type="fixed">
    <origin rpy="0 0 0" xyz="0 0 0.127"/>
    <parent link="pod_bin_1g"/>
    <child link="pod_bin_1g_top"/>
  </joint>
  <joint name="pod_bin_1g_pod_bin_1g_back" type="fixed">
    <origin rpy="1.5707963267948966 0 0" xyz="0 0.15239999999999998 0"/>
    <parent link="pod_bin_1g"/>
    <child link="pod_bin_1g_back"/>
  </joint>
  <joint name="pod_bin_1g_pod_bin_1g_flap" type="fixed">
    <origin rpy="1.5707963267948966 0 0" xyz="0 0 0"/>
    <parent link="pod_bin_1g"/>
    <child link="pod_bin_1g_flap"/>
  </joint>
  <joint name="pod_shelf_g_pod_bin_1g_joint" type="fixed">
    <origin xyz="0.0 0 0"/>
    <parent link="pod_shelf_g"/>
    <child link="pod_bin_1g"/>
  </joint>
  <link name="pod_bin_2g"/>
  <link name="pod_bin_2g_bottom">
    <inertial>
      <mass value="0.01"/>
      <inertia ixx="0.0002835" ixy="0.0" ixz="0.0" iyy="0.0002835" iyz="0.0" izz="0.000324"/>
    </inertial>
    <visual>
      <origin xyz="0.1143 0.07619999999999999 -0.0005"/>
      <geometry>
        <box size="0.2286 0.15239999999999998 0.001"/>
      </geometry>
      <material name="yellow_fabric"/>
    </visual>
    <collision>
      <origin xyz="0.1143 0.07619999999999999 -0.0005"/>
      <geometry>
        <box size="0.2286 0.15239999999999998 0.001"/>
      </geometry>
    </collision>
  </link>
  <link name="pod_bin_2g_left">
    <inertial>
      <mass value="0.01"/>
      <inertia ixx="0.0002835" ixy="0.0" ixz="0.0" iyy="0.0002835" iyz="0.0" izz="0.000324"/>
    </inertial>
    <visual>
      <origin xyz="0.07619999999999999 0.0635 -0.0005"/>
      <geometry>
        <box size="0.15239999999999998 0.127 0.001"/>
      </geometry>
      <material name="yellow_fabric"/>
    </visual>
    <collision>
      <origin xyz="0.07619999999999999 0.0635 -0.0005"/>
      <geometry>
        <box size="0.15239999999999998 0.127 0.001"/>
      </geometry>
    </collision>
  </link>
  <link name="pod_bin_2g_right">
    <inertial>
      <mass value="0.01"/>
      <inertia ixx="0.0002835" ixy="0.0" ixz="0.0" iyy="0.0002835" iyz="0.0" izz="0.000324"/>
    </inertial>
    <visual>
      <origin xyz="0.07619999999999999 0.0635 -0.0005"/>
      <geometry>
        <box size="0.15239999999999998 0.127 0.001"/>
      </geometry>
      <material name="yellow_fabric"/>
    </visual>
    <collision>
      <origin xyz="0.07619999999999999 0.0635 -0.0005"/>
      <geometry>
        <box size="0.15239999999999998 0.127 0.001"/>
      </geometry>
    </collision>
  </link>
  <link name="pod_bin_2g_top">
    <inertial>
      <mass value="0.01"/>
      <inertia ixx="0.0002835" ixy="0.0" ixz="0.0" iyy="0.0002835" iyz="0.0" izz="0.000324"/>
    </inertial>
    <visual>
      <origin xyz="0.1143 0.07619999999999999 -0.0005"/>
      <geometry>
        <box size="0.2286 0.15239999999999998 0.001"/>
      </geometry>
      <material name="yellow_fabric"/>
    </visual>
    <collision>
      <origin xyz="0.1143 0.07619999999999999 -0.0005"/>
      <geometry>
        <box size="0.2286 0.15239999999999998 0.001"/>
      </geometry>
    </collision>
  </link>
  <link name="pod_bin_2g_back">
    <inertial>
      <mass value="0.01"/>
      <inertia ixx="0.0002835" ixy="0.0" ixz="0.0" iyy="0.0002835" iyz="0.0" izz="0.000324"/>
    </inertial>
    <visual>
      <origin xyz="0.1143 0.0635 -0.0005"/>
      <geometry>
        <box size="0.2286 0.127 0.001"/>
      </geometry>
      <material name="yellow_fabric"/>
    </visual>
    <collision>
      <origin xyz="0.1143 0.0635 -0.0005"/>
      <geometry>
        <box size="0.2286 0.127 0.001"/>
      </geometry>
    </collision>
  </link>
  <link name="pod_bin_2g_flap">
    <inertial>
      <mass value="0.01"/>
      <inertia ixx="0.0002835" ixy="0.0" ixz="0.0" iyy="0.0002835" iyz="0.0" izz="0.000324"/>
    </inertial>
    <visual>
      <origin xyz="0.1143 0.0127 -0.0005"/>
      <geometry>
        <box size="0.2286 0.0254 0.001"/>
      </geometry>
      <material name="yellow_fabric"/>
    </visual>
    <collision>
      <origin xyz="0.1143 0.0127 -0.0005"/>
      <geometry>
        <box size="0.2286 0.0254 0.001"/>
      </geometry>
    </collision>
  </link>
  <joint name="pod_bin_2g_pod_bin_2g_bottom" type="fixed">
    <parent link="pod_bin_2g"/>
    <child link="pod_bin_2g_bottom"/>
  </joint>
  <joint name="pod_bin_2g_pod_bin_2g_left" type="fixed">
    <origin rpy="1.5707963267948966 0 1.5707963267948966 " xyz="0 0 0"/>
    <parent link="pod_bin_2g"/>
    <child link="pod_bin_2g_left"/>
  </joint>
  <joint name="pod_bin_2g_pod_bin_2g_right" type="fixed">
    <origin rpy="1.5707963267948966 0 1.5707963267948966 " xyz="0.2286 0 0"/>
    <parent link="pod_bin_2g"/>
    <child link="pod_bin_2g_right"/>
  </joint>
  <joint name="pod_bin_2g_pod_bin_2g_top" type="fixed">
    <origin rpy="0 0 0" xyz="0 0 0.127"/>
    <parent link="pod_bin_2g"/>
    <child link="pod_bin_2g_top"/>
  </joint>
  <joint name="pod_bin_2g_pod_bin_2g_back" type="fixed">
    <origin rpy="1.5707963267948966 0 0" xyz="0 0.15239999999999998 0"/>
    <parent link="pod_bin_2g"/>
    <child link="pod_bin_2g_back"/>
  </joint>
  <joint name="pod_bin_2g_pod_bin_2g_flap" type="fixed">
    <origin rpy="1.5707963267948966 0 0" xyz="0 0 0"/>
    <parent link="pod_bin_2g"/>
    <child link="pod_bin_2g_flap"/>
  </joint>
  <joint name="pod_shelf_g_pod_bin_2g_joint" type="fixed">
    <origin xyz="0.2286 0 0"/>
    <parent link="pod_shelf_g"/>
    <child link="pod_bin_2g"/>
  </joint>
  <link name="pod_bin_3g"/>
  <link name="pod_bin_3g_bottom">
    <inertial>
      <mass value="0.01"/>
      <inertia ixx="0.0002835" ixy="0.0" ixz="0.0" iyy="0.0002835" iyz="0.0" izz="0.000324"/>
    </inertial>
    <visual>
      <origin xyz="0.1143 0.07619999999999999 -0.0005"/>
      <geometry>
        <box size="0.2286 0.15239999999999998 0.001"/>
      </geometry>
      <material name="yellow_fabric"/>
    </visual>
    <collision>
      <origin xyz="0.1143 0.07619999999999999 -0.0005"/>
      <geometry>
        <box size="0.2286 0.15239999999999998 0.001"/>
      </geometry>
    </collision>
  </link>
  <link name="pod_bin_3g_left">
    <inertial>
      <mass value="0.01"/>
      <inertia ixx="0.0002835" ixy="0.0" ixz="0.0" iyy="0.0002835" iyz="0.0" izz="0.000324"/>
    </inertial>
    <visual>
      <origin xyz="0.07619999999999999 0.0635 -0.0005"/>
      <geometry>
        <box size="0.15239999999999998 0.127 0.001"/>
      </geometry>
      <material name="yellow_fabric"/>
    </visual>
    <collision>
      <origin xyz="0.07619999999999999 0.0635 -0.0005"/>
      <geometry>
        <box size="0.15239999999999998 0.127 0.001"/>
      </geometry>
    </collision>
  </link>
  <link name="pod_bin_3g_right">
    <inertial>
      <mass value="0.01"/>
      <inertia ixx="0.0002835" ixy="0.0" ixz="0.0" iyy="0.0002835" iyz="0.0" izz="0.000324"/>
    </inertial>
    <visual>
      <origin xyz="0.07619999999999999 0.0635 -0.0005"/>
      <geometry>
        <box size="0.15239999999999998 0.127 0.001"/>
      </geometry>
      <material name="yellow_fabric"/>
    </visual>
    <collision>
      <origin xyz="0.07619999999999999 0.0635 -0.0005"/>
      <geometry>
        <box size="0.15239999999999998 0.127 0.001"/>
      </geometry>
    </collision>
  </link>
  <link name="pod_bin_3g_top">
    <inertial>
      <mass value="0.01"/>
      <inertia ixx="0.0002835" ixy="0.0" ixz="0.0" iyy="0.0002835" iyz="0.0" izz="0.000324"/>
    </inertial>
    <visual>
      <origin xyz="0.1143 0.07619999999999999 -0.0005"/>
      <geometry>
        <box size="0.2286 0.15239999999999998 0.001"/>
      </geometry>
      <material name="yellow_fabric"/>
    </visual>
    <collision>
      <origin xyz="0.1143 0.07619999999999999 -0.0005"/>
      <geometry>
        <box size="0.2286 0.15239999999999998 0.001"/>
      </geometry>
    </collision>
  </link>
  <link name="pod_bin_3g_back">
    <inertial>
      <mass value="0.01"/>
      <inertia ixx="0.0002835" ixy="0.0" ixz="0.0" iyy="0.0002835" iyz="0.0" izz="0.000324"/>
    </inertial>
    <visual>
      <origin xyz="0.1143 0.0635 -0.0005"/>
      <geometry>
        <box size="0.2286 0.127 0.001"/>
      </geometry>
      <material name="yellow_fabric"/>
    </visual>
    <collision>
      <origin xyz="0.1143 0.0635 -0.0005"/>
      <geometry>
        <box size="0.2286 0.127 0.001"/>
      </geometry>
    </collision>
  </link>
  <link name="pod_bin_3g_flap">
    <inertial>
      <mass value="0.01"/>
      <inertia ixx="0.0002835" ixy="0.0" ixz="0.0" iyy="0.0002835" iyz="0.0" izz="0.000324"/>
    </inertial>
    <visual>
      <origin xyz="0.1143 0.0127 -0.0005"/>
      <geometry>
        <box size="0.2286 0.0254 0.001"/>
      </geometry>
      <material name="yellow_fabric"/>
    </visual>
    <collision>
      <origin xyz="0.1143 0.0127 -0.0005"/>
      <geometry>
        <box size="0.2286 0.0254 0.001"/>
      </geometry>
    </collision>
  </link>
  <joint name="pod_bin_3g_pod_bin_3g_bottom" type="fixed">
    <parent link="pod_bin_3g"/>
    <child link="pod_bin_3g_bottom"/>
  </joint>
  <joint name="pod_bin_3g_pod_bin_3g_left" type="fixed">
    <origin rpy="1.5707963267948966 0 1.5707963267948966 " xyz="0 0 0"/>
    <parent link="pod_bin_3g"/>
    <child link="pod_bin_3g_left"/>
  </joint>
  <joint name="pod_bin_3g_pod_bin_3g_right" type="fixed">
    <origin rpy="1.5707963267948966 0 1.5707963267948966 " xyz="0.2286 0 0"/>
    <parent link="pod_bin_3g"/>
    <child link="pod_bin_3g_right"/>
  </joint>
  <joint name="pod_bin_3g_pod_bin_3g_top" type="fixed">
    <origin rpy="0 0 0" xyz="0 0 0.127"/>
    <parent link="pod_bin_3g"/>
    <child link="pod_bin_3g_top"/>
  </joint>
  <joint name="pod_bin_3g_pod_bin_3g_back" type="fixed">
    <origin rpy="1.5707963267948966 0 0" xyz="0 0.15239999999999998 0"/>
    <parent link="pod_bin_3g"/>
    <child link="pod_bin_3g_back"/>
  </joint>
  <joint name="pod_bin_3g_pod_bin_3g_flap" type="fixed">
    <origin rpy="1.5707963267948966 0 0" xyz="0 0 0"/>
    <parent link="pod_bin_3g"/>
    <child link="pod_bin_3g_flap"/>
  </joint>
  <joint name="pod_shelf_g_pod_bin_3g_joint" type="fixed">
    <origin xyz="0.4572 0 0"/>
    <parent link="pod_shelf_g"/>
    <child link="pod_bin_3g"/>
  </joint>
  <link name="pod_bin_4g"/>
  <link name="pod_bin_4g_bottom">
    <inertial>
      <mass value="0.01"/>
      <inertia ixx="0.0002835" ixy="0.0" ixz="0.0" iyy="0.0002835" iyz="0.0" izz="0.000324"/>
    </inertial>
    <visual>
      <origin xyz="0.1143 0.07619999999999999 -0.0005"/>
      <geometry>
        <box size="0.2286 0.15239999999999998 0.001"/>
      </geometry>
      <material name="yellow_fabric"/>
    </visual>
    <collision>
      <origin xyz="0.1143 0.07619999999999999 -0.0005"/>
      <geometry>
        <box size="0.2286 0.15239999999999998 0.001"/>
      </geometry>
    </collision>
  </link>
  <link name="pod_bin_4g_left">
    <inertial>
      <mass value="0.01"/>
      <inertia ixx="0.0002835" ixy="0.0" ixz="0.0" iyy="0.0002835" iyz="0.0" izz="0.000324"/>
    </inertial>
    <visual>
      <origin xyz="0.07619999999999999 0.0635 -0.0005"/>
      <geometry>
        <box size="0.15239999999999998 0.127 0.001"/>
      </geometry>
      <material name="yellow_fabric"/>
    </visual>
    <collision>
      <origin xyz="0.07619999999999999 0.0635 -0.0005"/>
      <geometry>
        <box size="0.15239999999999998 0.127 0.001"/>
      </geometry>
    </collision>
  </link>
  <link name="pod_bin_4g_right">
    <inertial>
      <mass value="0.01"/>
      <inertia ixx="0.0002835" ixy="0.0" ixz="0.0" iyy="0.0002835" iyz="0.0" izz="0.000324"/>
    </inertial>
    <visual>
      <origin xyz="0.07619999999999999 0.0635 -0.0005"/>
      <geometry>
        <box size="0.15239999999999998 0.127 0.001"/>
      </geometry>
      <material name="yellow_fabric"/>
    </visual>
    <collision>
      <origin xyz="0.07619999999999999 0.0635 -0.0005"/>
      <geometry>
        <box size="0.15239999999999998 0.127 0.001"/>
      </geometry>
    </collision>
  </link>
  <link name="pod_bin_4g_top">
    <inertial>
      <mass value="0.01"/>
      <inertia ixx="0.0002835" ixy="0.0" ixz="0.0" iyy="0.0002835" iyz="0.0" izz="0.000324"/>
    </inertial>
    <visual>
      <origin xyz="0.1143 0.07619999999999999 -0.0005"/>
      <geometry>
        <box size="0.2286 0.15239999999999998 0.001"/>
      </geometry>
      <material name="yellow_fabric"/>
    </visual>
    <collision>
      <origin xyz="0.1143 0.07619999999999999 -0.0005"/>
      <geometry>
        <box size="0.2286 0.15239999999999998 0.001"/>
      </geometry>
    </collision>
  </link>
  <link name="pod_bin_4g_back">
    <inertial>
      <mass value="0.01"/>
      <inertia ixx="0.0002835" ixy="0.0" ixz="0.0" iyy="0.0002835" iyz="0.0" izz="0.000324"/>
    </inertial>
    <visual>
      <origin xyz="0.1143 0.0635 -0.0005"/>
      <geometry>
        <box size="0.2286 0.127 0.001"/>
      </geometry>
      <material name="yellow_fabric"/>
    </visual>
    <collision>
      <origin xyz="0.1143 0.0635 -0.0005"/>
      <geometry>
        <box size="0.2286 0.127 0.001"/>
      </geometry>
    </collision>
  </link>
  <link name="pod_bin_4g_flap">
    <inertial>
      <mass value="0.01"/>
      <inertia ixx="0.0002835" ixy="0.0" ixz="0.0" iyy="0.0002835" iyz="0.0" izz="0.000324"/>
    </inertial>
    <visual>
      <origin xyz="0.1143 0.0127 -0.0005"/>
      <geometry>
        <box size="0.2286 0.0254 0.001"/>
      </geometry>
      <material name="yellow_fabric"/>
    </visual>
    <collision>
      <origin xyz="0.1143 0.0127 -0.0005"/>
      <geometry>
        <box size="0.2286 0.0254 0.001"/>
      </geometry>
    </collision>
  </link>
  <joint name="pod_bin_4g_pod_bin_4g_bottom" type="fixed">
    <parent link="pod_bin_4g"/>
    <child link="pod_bin_4g_bottom"/>
  </joint>
  <joint name="pod_bin_4g_pod_bin_4g_left" type="fixed">
    <origin rpy="1.5707963267948966 0 1.5707963267948966 " xyz="0 0 0"/>
    <parent link="pod_bin_4g"/>
    <child link="pod_bin_4g_left"/>
  </joint>
  <joint name="pod_bin_4g_pod_bin_4g_right" type="fixed">
    <origin rpy="1.5707963267948966 0 1.5707963267948966 " xyz="0.2286 0 0"/>
    <parent link="pod_bin_4g"/>
    <child link="pod_bin_4g_right"/>
  </joint>
  <joint name="pod_bin_4g_pod_bin_4g_top" type="fixed">
    <origin rpy="0 0 0" xyz="0 0 0.127"/>
    <parent link="pod_bin_4g"/>
    <child link="pod_bin_4g_top"/>
  </joint>
  <joint name="pod_bin_4g_pod_bin_4g_back" type="fixed">
    <origin rpy="1.5707963267948966 0 0" xyz="0 0.15239999999999998 0"/>
    <parent link="pod_bin_4g"/>
    <child link="pod_bin_4g_back"/>
  </joint>
  <joint name="pod_bin_4g_pod_bin_4g_flap" type="fixed">
    <origin rpy="1.5707963267948966 0 0" xyz="0 0 0"/>
    <parent link="pod_bin_4g"/>
    <child link="pod_bin_4g_flap"/>
  </joint>
  <joint name="pod_shelf_g_pod_bin_4g_joint" type="fixed">
    <origin xyz="0.6858 0 0"/>
    <parent link="pod_shelf_g"/>
    <child link="pod_bin_4g"/>
  </joint>
  <joint name="pod_fabric_base_pod_shelf_g_joint" type="fixed">
    <origin xyz="0 0 1.0413999999999999"/>
    <parent link="pod_fabric_base"/>
    <child link="pod_shelf_g"/>
  </joint>
  <link name="pod_shelf_h"/>
  <link name="pod_bin_1h"/>
  <link name="pod_bin_1h_bottom">
    <inertial>
      <mass value="0.01"/>
      <inertia ixx="0.0002835" ixy="0.0" ixz="0.0" iyy="0.0002835" iyz="0.0" izz="0.000324"/>
    </inertial>
    <visual>
      <origin xyz="0.1143 0.07619999999999999 -0.0005"/>
      <geometry>
        <box size="0.2286 0.15239999999999998 0.001"/>
      </geometry>
      <material name="yellow_fabric"/>
    </visual>
    <collision>
      <origin xyz="0.1143 0.07619999999999999 -0.0005"/>
      <geometry>
        <box size="0.2286 0.15239999999999998 0.001"/>
      </geometry>
    </collision>
  </link>
  <link name="pod_bin_1h_left">
    <inertial>
      <mass value="0.01"/>
      <inertia ixx="0.0002835" ixy="0.0" ixz="0.0" iyy="0.0002835" iyz="0.0" izz="0.000324"/>
    </inertial>
    <visual>
      <origin xyz="0.07619999999999999 0.07619999999999999 -0.0005"/>
      <geometry>
        <box size="0.15239999999999998 0.15239999999999998 0.001"/>
      </geometry>
      <material name="yellow_fabric"/>
    </visual>
    <collision>
      <origin xyz="0.07619999999999999 0.07619999999999999 -0.0005"/>
      <geometry>
        <box size="0.15239999999999998 0.15239999999999998 0.001"/>
      </geometry>
    </collision>
  </link>
  <link name="pod_bin_1h_right">
    <inertial>
      <mass value="0.01"/>
      <inertia ixx="0.0002835" ixy="0.0" ixz="0.0" iyy="0.0002835" iyz="0.0" izz="0.000324"/>
    </inertial>
    <visual>
      <origin xyz="0.07619999999999999 0.07619999999999999 -0.0005"/>
      <geometry>
        <box size="0.15239999999999998 0.15239999999999998 0.001"/>
      </geometry>
      <material name="yellow_fabric"/>
    </visual>
    <collision>
      <origin xyz="0.07619999999999999 0.07619999999999999 -0.0005"/>
      <geometry>
        <box size="0.15239999999999998 0.15239999999999998 0.001"/>
      </geometry>
    </collision>
  </link>
  <link name="pod_bin_1h_top">
    <inertial>
      <mass value="0.01"/>
      <inertia ixx="0.0002835" ixy="0.0" ixz="0.0" iyy="0.0002835" iyz="0.0" izz="0.000324"/>
    </inertial>
    <visual>
      <origin xyz="0.1143 0.07619999999999999 -0.0005"/>
      <geometry>
        <box size="0.2286 0.15239999999999998 0.001"/>
      </geometry>
      <material name="yellow_fabric"/>
    </visual>
    <collision>
      <origin xyz="0.1143 0.07619999999999999 -0.0005"/>
      <geometry>
        <box size="0.2286 0.15239999999999998 0.001"/>
      </geometry>
    </collision>
  </link>
  <link name="pod_bin_1h_back">
    <inertial>
      <mass value="0.01"/>
      <inertia ixx="0.0002835" ixy="0.0" ixz="0.0" iyy="0.0002835" iyz="0.0" izz="0.000324"/>
    </inertial>
    <visual>
      <origin xyz="0.1143 0.07619999999999999 -0.0005"/>
      <geometry>
        <box size="0.2286 0.15239999999999998 0.001"/>
      </geometry>
      <material name="yellow_fabric"/>
    </visual>
    <collision>
      <origin xyz="0.1143 0.07619999999999999 -0.0005"/>
      <geometry>
        <box size="0.2286 0.15239999999999998 0.001"/>
      </geometry>
    </collision>
  </link>
  <link name="pod_bin_1h_flap">
    <inertial>
      <mass value="0.01"/>
      <inertia ixx="0.0002835" ixy="0.0" ixz="0.0" iyy="0.0002835" iyz="0.0" izz="0.000324"/>
    </inertial>
    <visual>
      <origin xyz="0.1143 0.0127 -0.0005"/>
      <geometry>
        <box size="0.2286 0.0254 0.001"/>
      </geometry>
      <material name="yellow_fabric"/>
    </visual>
    <collision>
      <origin xyz="0.1143 0.0127 -0.0005"/>
      <geometry>
        <box size="0.2286 0.0254 0.001"/>
      </geometry>
    </collision>
  </link>
  <joint name="pod_bin_1h_pod_bin_1h_bottom" type="fixed">
    <parent link="pod_bin_1h"/>
    <child link="pod_bin_1h_bottom"/>
  </joint>
  <joint name="pod_bin_1h_pod_bin_1h_left" type="fixed">
    <origin rpy="1.5707963267948966 0 1.5707963267948966 " xyz="0 0 0"/>
    <parent link="pod_bin_1h"/>
    <child link="pod_bin_1h_left"/>
  </joint>
  <joint name="pod_bin_1h_pod_bin_1h_right" type="fixed">
    <origin rpy="1.5707963267948966 0 1.5707963267948966 " xyz="0.2286 0 0"/>
    <parent link="pod_bin_1h"/>
    <child link="pod_bin_1h_right"/>
  </joint>
  <joint name="pod_bin_1h_pod_bin_1h_top" type="fixed">
    <origin rpy="0 0 0" xyz="0 0 0.15239999999999998"/>
    <parent link="pod_bin_1h"/>
    <child link="pod_bin_1h_top"/>
  </joint>
  <joint name="pod_bin_1h_pod_bin_1h_back" type="fixed">
    <origin rpy="1.5707963267948966 0 0" xyz="0 0.15239999999999998 0"/>
    <parent link="pod_bin_1h"/>
    <child link="pod_bin_1h_back"/>
  </joint>
  <joint name="pod_bin_1h_pod_bin_1h_flap" type="fixed">
    <origin rpy="1.5707963267948966 0 0" xyz="0 0 0"/>
    <parent link="pod_bin_1h"/>
    <child link="pod_bin_1h_flap"/>
  </joint>
  <joint name="pod_shelf_h_pod_bin_1h_joint" type="fixed">
    <origin xyz="0.0 0 0"/>
    <parent link="pod_shelf_h"/>
    <child link="pod_bin_1h"/>
  </joint>
  <link name="pod_bin_2h"/>
  <link name="pod_bin_2h_bottom">
    <inertial>
      <mass value="0.01"/>
      <inertia ixx="0.0002835" ixy="0.0" ixz="0.0" iyy="0.0002835" iyz="0.0" izz="0.000324"/>
    </inertial>
    <visual>
      <origin xyz="0.1143 0.07619999999999999 -0.0005"/>
      <geometry>
        <box size="0.2286 0.15239999999999998 0.001"/>
      </geometry>
      <material name="yellow_fabric"/>
    </visual>
    <collision>
      <origin xyz="0.1143 0.07619999999999999 -0.0005"/>
      <geometry>
        <box size="0.2286 0.15239999999999998 0.001"/>
      </geometry>
    </collision>
  </link>
  <link name="pod_bin_2h_left">
    <inertial>
      <mass value="0.01"/>
      <inertia ixx="0.0002835" ixy="0.0" ixz="0.0" iyy="0.0002835" iyz="0.0" izz="0.000324"/>
    </inertial>
    <visual>
      <origin xyz="0.07619999999999999 0.07619999999999999 -0.0005"/>
      <geometry>
        <box size="0.15239999999999998 0.15239999999999998 0.001"/>
      </geometry>
      <material name="yellow_fabric"/>
    </visual>
    <collision>
      <origin xyz="0.07619999999999999 0.07619999999999999 -0.0005"/>
      <geometry>
        <box size="0.15239999999999998 0.15239999999999998 0.001"/>
      </geometry>
    </collision>
  </link>
  <link name="pod_bin_2h_right">
    <inertial>
      <mass value="0.01"/>
      <inertia ixx="0.0002835" ixy="0.0" ixz="0.0" iyy="0.0002835" iyz="0.0" izz="0.000324"/>
    </inertial>
    <visual>
      <origin xyz="0.07619999999999999 0.07619999999999999 -0.0005"/>
      <geometry>
        <box size="0.15239999999999998 0.15239999999999998 0.001"/>
      </geometry>
      <material name="yellow_fabric"/>
    </visual>
    <collision>
      <origin xyz="0.07619999999999999 0.07619999999999999 -0.0005"/>
      <geometry>
        <box size="0.15239999999999998 0.15239999999999998 0.001"/>
      </geometry>
    </collision>
  </link>
  <link name="pod_bin_2h_top">
    <inertial>
      <mass value="0.01"/>
      <inertia ixx="0.0002835" ixy="0.0" ixz="0.0" iyy="0.0002835" iyz="0.0" izz="0.000324"/>
    </inertial>
    <visual>
      <origin xyz="0.1143 0.07619999999999999 -0.0005"/>
      <geometry>
        <box size="0.2286 0.15239999999999998 0.001"/>
      </geometry>
      <material name="yellow_fabric"/>
    </visual>
    <collision>
      <origin xyz="0.1143 0.07619999999999999 -0.0005"/>
      <geometry>
        <box size="0.2286 0.15239999999999998 0.001"/>
      </geometry>
    </collision>
  </link>
  <link name="pod_bin_2h_back">
    <inertial>
      <mass value="0.01"/>
      <inertia ixx="0.0002835" ixy="0.0" ixz="0.0" iyy="0.0002835" iyz="0.0" izz="0.000324"/>
    </inertial>
    <visual>
      <origin xyz="0.1143 0.07619999999999999 -0.0005"/>
      <geometry>
        <box size="0.2286 0.15239999999999998 0.001"/>
      </geometry>
      <material name="yellow_fabric"/>
    </visual>
    <collision>
      <origin xyz="0.1143 0.07619999999999999 -0.0005"/>
      <geometry>
        <box size="0.2286 0.15239999999999998 0.001"/>
      </geometry>
    </collision>
  </link>
  <link name="pod_bin_2h_flap">
    <inertial>
      <mass value="0.01"/>
      <inertia ixx="0.0002835" ixy="0.0" ixz="0.0" iyy="0.0002835" iyz="0.0" izz="0.000324"/>
    </inertial>
    <visual>
      <origin xyz="0.1143 0.0127 -0.0005"/>
      <geometry>
        <box size="0.2286 0.0254 0.001"/>
      </geometry>
      <material name="yellow_fabric"/>
    </visual>
    <collision>
      <origin xyz="0.1143 0.0127 -0.0005"/>
      <geometry>
        <box size="0.2286 0.0254 0.001"/>
      </geometry>
    </collision>
  </link>
  <joint name="pod_bin_2h_pod_bin_2h_bottom" type="fixed">
    <parent link="pod_bin_2h"/>
    <child link="pod_bin_2h_bottom"/>
  </joint>
  <joint name="pod_bin_2h_pod_bin_2h_left" type="fixed">
    <origin rpy="1.5707963267948966 0 1.5707963267948966 " xyz="0 0 0"/>
    <parent link="pod_bin_2h"/>
    <child link="pod_bin_2h_left"/>
  </joint>
  <joint name="pod_bin_2h_pod_bin_2h_right" type="fixed">
    <origin rpy="1.5707963267948966 0 1.5707963267948966 " xyz="0.2286 0 0"/>
    <parent link="pod_bin_2h"/>
    <child link="pod_bin_2h_right"/>
  </joint>
  <joint name="pod_bin_2h_pod_bin_2h_top" type="fixed">
    <origin rpy="0 0 0" xyz="0 0 0.15239999999999998"/>
    <parent link="pod_bin_2h"/>
    <child link="pod_bin_2h_top"/>
  </joint>
  <joint name="pod_bin_2h_pod_bin_2h_back" type="fixed">
    <origin rpy="1.5707963267948966 0 0" xyz="0 0.15239999999999998 0"/>
    <parent link="pod_bin_2h"/>
    <child link="pod_bin_2h_back"/>
  </joint>
  <joint name="pod_bin_2h_pod_bin_2h_flap" type="fixed">
    <origin rpy="1.5707963267948966 0 0" xyz="0 0 0"/>
    <parent link="pod_bin_2h"/>
    <child link="pod_bin_2h_flap"/>
  </joint>
  <joint name="pod_shelf_h_pod_bin_2h_joint" type="fixed">
    <origin xyz="0.2286 0 0"/>
    <parent link="pod_shelf_h"/>
    <child link="pod_bin_2h"/>
  </joint>
  <link name="pod_bin_3h"/>
  <link name="pod_bin_3h_bottom">
    <inertial>
      <mass value="0.01"/>
      <inertia ixx="0.0002835" ixy="0.0" ixz="0.0" iyy="0.0002835" iyz="0.0" izz="0.000324"/>
    </inertial>
    <visual>
      <origin xyz="0.1143 0.07619999999999999 -0.0005"/>
      <geometry>
        <box size="0.2286 0.15239999999999998 0.001"/>
      </geometry>
      <material name="yellow_fabric"/>
    </visual>
    <collision>
      <origin xyz="0.1143 0.07619999999999999 -0.0005"/>
      <geometry>
        <box size="0.2286 0.15239999999999998 0.001"/>
      </geometry>
    </collision>
  </link>
  <link name="pod_bin_3h_left">
    <inertial>
      <mass value="0.01"/>
      <inertia ixx="0.0002835" ixy="0.0" ixz="0.0" iyy="0.0002835" iyz="0.0" izz="0.000324"/>
    </inertial>
    <visual>
      <origin xyz="0.07619999999999999 0.07619999999999999 -0.0005"/>
      <geometry>
        <box size="0.15239999999999998 0.15239999999999998 0.001"/>
      </geometry>
      <material name="yellow_fabric"/>
    </visual>
    <collision>
      <origin xyz="0.07619999999999999 0.07619999999999999 -0.0005"/>
      <geometry>
        <box size="0.15239999999999998 0.15239999999999998 0.001"/>
      </geometry>
    </collision>
  </link>
  <link name="pod_bin_3h_right">
    <inertial>
      <mass value="0.01"/>
      <inertia ixx="0.0002835" ixy="0.0" ixz="0.0" iyy="0.0002835" iyz="0.0" izz="0.000324"/>
    </inertial>
    <visual>
      <origin xyz="0.07619999999999999 0.07619999999999999 -0.0005"/>
      <geometry>
        <box size="0.15239999999999998 0.15239999999999998 0.001"/>
      </geometry>
      <material name="yellow_fabric"/>
    </visual>
    <collision>
      <origin xyz="0.07619999999999999 0.07619999999999999 -0.0005"/>
      <geometry>
        <box size="0.15239999999999998 0.15239999999999998 0.001"/>
      </geometry>
    </collision>
  </link>
  <link name="pod_bin_3h_top">
    <inertial>
      <mass value="0.01"/>
      <inertia ixx="0.0002835" ixy="0.0" ixz="0.0" iyy="0.0002835" iyz="0.0" izz="0.000324"/>
    </inertial>
    <visual>
      <origin xyz="0.1143 0.07619999999999999 -0.0005"/>
      <geometry>
        <box size="0.2286 0.15239999999999998 0.001"/>
      </geometry>
      <material name="yellow_fabric"/>
    </visual>
    <collision>
      <origin xyz="0.1143 0.07619999999999999 -0.0005"/>
      <geometry>
        <box size="0.2286 0.15239999999999998 0.001"/>
      </geometry>
    </collision>
  </link>
  <link name="pod_bin_3h_back">
    <inertial>
      <mass value="0.01"/>
      <inertia ixx="0.0002835" ixy="0.0" ixz="0.0" iyy="0.0002835" iyz="0.0" izz="0.000324"/>
    </inertial>
    <visual>
      <origin xyz="0.1143 0.07619999999999999 -0.0005"/>
      <geometry>
        <box size="0.2286 0.15239999999999998 0.001"/>
      </geometry>
      <material name="yellow_fabric"/>
    </visual>
    <collision>
      <origin xyz="0.1143 0.07619999999999999 -0.0005"/>
      <geometry>
        <box size="0.2286 0.15239999999999998 0.001"/>
      </geometry>
    </collision>
  </link>
  <link name="pod_bin_3h_flap">
    <inertial>
      <mass value="0.01"/>
      <inertia ixx="0.0002835" ixy="0.0" ixz="0.0" iyy="0.0002835" iyz="0.0" izz="0.000324"/>
    </inertial>
    <visual>
      <origin xyz="0.1143 0.0127 -0.0005"/>
      <geometry>
        <box size="0.2286 0.0254 0.001"/>
      </geometry>
      <material name="yellow_fabric"/>
    </visual>
    <collision>
      <origin xyz="0.1143 0.0127 -0.0005"/>
      <geometry>
        <box size="0.2286 0.0254 0.001"/>
      </geometry>
    </collision>
  </link>
  <joint name="pod_bin_3h_pod_bin_3h_bottom" type="fixed">
    <parent link="pod_bin_3h"/>
    <child link="pod_bin_3h_bottom"/>
  </joint>
  <joint name="pod_bin_3h_pod_bin_3h_left" type="fixed">
    <origin rpy="1.5707963267948966 0 1.5707963267948966 " xyz="0 0 0"/>
    <parent link="pod_bin_3h"/>
    <child link="pod_bin_3h_left"/>
  </joint>
  <joint name="pod_bin_3h_pod_bin_3h_right" type="fixed">
    <origin rpy="1.5707963267948966 0 1.5707963267948966 " xyz="0.2286 0 0"/>
    <parent link="pod_bin_3h"/>
    <child link="pod_bin_3h_right"/>
  </joint>
  <joint name="pod_bin_3h_pod_bin_3h_top" type="fixed">
    <origin rpy="0 0 0" xyz="0 0 0.15239999999999998"/>
    <parent link="pod_bin_3h"/>
    <child link="pod_bin_3h_top"/>
  </joint>
  <joint name="pod_bin_3h_pod_bin_3h_back" type="fixed">
    <origin rpy="1.5707963267948966 0 0" xyz="0 0.15239999999999998 0"/>
    <parent link="pod_bin_3h"/>
    <child link="pod_bin_3h_back"/>
  </joint>
  <joint name="pod_bin_3h_pod_bin_3h_flap" type="fixed">
    <origin rpy="1.5707963267948966 0 0" xyz="0 0 0"/>
    <parent link="pod_bin_3h"/>
    <child link="pod_bin_3h_flap"/>
  </joint>
  <joint name="pod_shelf_h_pod_bin_3h_joint" type="fixed">
    <origin xyz="0.4572 0 0"/>
    <parent link="pod_shelf_h"/>
    <child link="pod_bin_3h"/>
  </joint>
  <link name="pod_bin_4h"/>
  <link name="pod_bin_4h_bottom">
    <inertial>
      <mass value="0.01"/>
      <inertia ixx="0.0002835" ixy="0.0" ixz="0.0" iyy="0.0002835" iyz="0.0" izz="0.000324"/>
    </inertial>
    <visual>
      <origin xyz="0.1143 0.07619999999999999 -0.0005"/>
      <geometry>
        <box size="0.2286 0.15239999999999998 0.001"/>
      </geometry>
      <material name="yellow_fabric"/>
    </visual>
    <collision>
      <origin xyz="0.1143 0.07619999999999999 -0.0005"/>
      <geometry>
        <box size="0.2286 0.15239999999999998 0.001"/>
      </geometry>
    </collision>
  </link>
  <link name="pod_bin_4h_left">
    <inertial>
      <mass value="0.01"/>
      <inertia ixx="0.0002835" ixy="0.0" ixz="0.0" iyy="0.0002835" iyz="0.0" izz="0.000324"/>
    </inertial>
    <visual>
      <origin xyz="0.07619999999999999 0.07619999999999999 -0.0005"/>
      <geometry>
        <box size="0.15239999999999998 0.15239999999999998 0.001"/>
      </geometry>
      <material name="yellow_fabric"/>
    </visual>
    <collision>
      <origin xyz="0.07619999999999999 0.07619999999999999 -0.0005"/>
      <geometry>
        <box size="0.15239999999999998 0.15239999999999998 0.001"/>
      </geometry>
    </collision>
  </link>
  <link name="pod_bin_4h_right">
    <inertial>
      <mass value="0.01"/>
      <inertia ixx="0.0002835" ixy="0.0" ixz="0.0" iyy="0.0002835" iyz="0.0" izz="0.000324"/>
    </inertial>
    <visual>
      <origin xyz="0.07619999999999999 0.07619999999999999 -0.0005"/>
      <geometry>
        <box size="0.15239999999999998 0.15239999999999998 0.001"/>
      </geometry>
      <material name="yellow_fabric"/>
    </visual>
    <collision>
      <origin xyz="0.07619999999999999 0.07619999999999999 -0.0005"/>
      <geometry>
        <box size="0.15239999999999998 0.15239999999999998 0.001"/>
      </geometry>
    </collision>
  </link>
  <link name="pod_bin_4h_top">
    <inertial>
      <mass value="0.01"/>
      <inertia ixx="0.0002835" ixy="0.0" ixz="0.0" iyy="0.0002835" iyz="0.0" izz="0.000324"/>
    </inertial>
    <visual>
      <origin xyz="0.1143 0.07619999999999999 -0.0005"/>
      <geometry>
        <box size="0.2286 0.15239999999999998 0.001"/>
      </geometry>
      <material name="yellow_fabric"/>
    </visual>
    <collision>
      <origin xyz="0.1143 0.07619999999999999 -0.0005"/>
      <geometry>
        <box size="0.2286 0.15239999999999998 0.001"/>
      </geometry>
    </collision>
  </link>
  <link name="pod_bin_4h_back">
    <inertial>
      <mass value="0.01"/>
      <inertia ixx="0.0002835" ixy="0.0" ixz="0.0" iyy="0.0002835" iyz="0.0" izz="0.000324"/>
    </inertial>
    <visual>
      <origin xyz="0.1143 0.07619999999999999 -0.0005"/>
      <geometry>
        <box size="0.2286 0.15239999999999998 0.001"/>
      </geometry>
      <material name="yellow_fabric"/>
    </visual>
    <collision>
      <origin xyz="0.1143 0.07619999999999999 -0.0005"/>
      <geometry>
        <box size="0.2286 0.15239999999999998 0.001"/>
      </geometry>
    </collision>
  </link>
  <link name="pod_bin_4h_flap">
    <inertial>
      <mass value="0.01"/>
      <inertia ixx="0.0002835" ixy="0.0" ixz="0.0" iyy="0.0002835" iyz="0.0" izz="0.000324"/>
    </inertial>
    <visual>
      <origin xyz="0.1143 0.0127 -0.0005"/>
      <geometry>
        <box size="0.2286 0.0254 0.001"/>
      </geometry>
      <material name="yellow_fabric"/>
    </visual>
    <collision>
      <origin xyz="0.1143 0.0127 -0.0005"/>
      <geometry>
        <box size="0.2286 0.0254 0.001"/>
      </geometry>
    </collision>
  </link>
  <joint name="pod_bin_4h_pod_bin_4h_bottom" type="fixed">
    <parent link="pod_bin_4h"/>
    <child link="pod_bin_4h_bottom"/>
  </joint>
  <joint name="pod_bin_4h_pod_bin_4h_left" type="fixed">
    <origin rpy="1.5707963267948966 0 1.5707963267948966 " xyz="0 0 0"/>
    <parent link="pod_bin_4h"/>
    <child link="pod_bin_4h_left"/>
  </joint>
  <joint name="pod_bin_4h_pod_bin_4h_right" type="fixed">
    <origin rpy="1.5707963267948966 0 1.5707963267948966 " xyz="0.2286 0 0"/>
    <parent link="pod_bin_4h"/>
    <child link="pod_bin_4h_right"/>
  </joint>
  <joint name="pod_bin_4h_pod_bin_4h_top" type="fixed">
    <origin rpy="0 0 0" xyz="0 0 0.15239999999999998"/>
    <parent link="pod_bin_4h"/>
    <child link="pod_bin_4h_top"/>
  </joint>
  <joint name="pod_bin_4h_pod_bin_4h_back" type="fixed">
    <origin rpy="1.5707963267948966 0 0" xyz="0 0.15239999999999998 0"/>
    <parent link="pod_bin_4h"/>
    <child link="pod_bin_4h_back"/>
  </joint>
  <joint name="pod_bin_4h_pod_bin_4h_flap" type="fixed">
    <origin rpy="1.5707963267948966 0 0" xyz="0 0 0"/>
    <parent link="pod_bin_4h"/>
    <child link="pod_bin_4h_flap"/>
  </joint>
  <joint name="pod_shelf_h_pod_bin_4h_joint" type="fixed">
    <origin xyz="0.6858 0 0"/>
    <parent link="pod_shelf_h"/>
    <child link="pod_bin_4h"/>
  </joint>
  <joint name="pod_fabric_base_pod_shelf_h_joint" type="fixed">
    <origin xyz="0 0 1.1683999999999999"/>
    <parent link="pod_fabric_base"/>
    <child link="pod_shelf_h"/>
  </joint>
  <link name="pod_shelf_i"/>
  <link name="pod_bin_1i"/>
  <link name="pod_bin_1i_bottom">
    <inertial>
      <mass value="0.01"/>
      <inertia ixx="0.0002835" ixy="0.0" ixz="0.0" iyy="0.0002835" iyz="0.0" izz="0.000324"/>
    </inertial>
    <visual>
      <origin xyz="0.1143 0.07619999999999999 -0.0005"/>
      <geometry>
        <box size="0.2286 0.15239999999999998 0.001"/>
      </geometry>
      <material name="yellow_fabric"/>
    </visual>
    <collision>
      <origin xyz="0.1143 0.07619999999999999 -0.0005"/>
      <geometry>
        <box size="0.2286 0.15239999999999998 0.001"/>
      </geometry>
    </collision>
  </link>
  <link name="pod_bin_1i_left">
    <inertial>
      <mass value="0.01"/>
      <inertia ixx="0.0002835" ixy="0.0" ixz="0.0" iyy="0.0002835" iyz="0.0" izz="0.000324"/>
    </inertial>
    <visual>
      <origin xyz="0.07619999999999999 0.0635 -0.0005"/>
      <geometry>
        <box size="0.15239999999999998 0.127 0.001"/>
      </geometry>
      <material name="yellow_fabric"/>
    </visual>
    <collision>
      <origin xyz="0.07619999999999999 0.0635 -0.0005"/>
      <geometry>
        <box size="0.15239999999999998 0.127 0.001"/>
      </geometry>
    </collision>
  </link>
  <link name="pod_bin_1i_right">
    <inertial>
      <mass value="0.01"/>
      <inertia ixx="0.0002835" ixy="0.0" ixz="0.0" iyy="0.0002835" iyz="0.0" izz="0.000324"/>
    </inertial>
    <visual>
      <origin xyz="0.07619999999999999 0.0635 -0.0005"/>
      <geometry>
        <box size="0.15239999999999998 0.127 0.001"/>
      </geometry>
      <material name="yellow_fabric"/>
    </visual>
    <collision>
      <origin xyz="0.07619999999999999 0.0635 -0.0005"/>
      <geometry>
        <box size="0.15239999999999998 0.127 0.001"/>
      </geometry>
    </collision>
  </link>
  <link name="pod_bin_1i_top">
    <inertial>
      <mass value="0.01"/>
      <inertia ixx="0.0002835" ixy="0.0" ixz="0.0" iyy="0.0002835" iyz="0.0" izz="0.000324"/>
    </inertial>
    <visual>
      <origin xyz="0.1143 0.07619999999999999 -0.0005"/>
      <geometry>
        <box size="0.2286 0.15239999999999998 0.001"/>
      </geometry>
      <material name="yellow_fabric"/>
    </visual>
    <collision>
      <origin xyz="0.1143 0.07619999999999999 -0.0005"/>
      <geometry>
        <box size="0.2286 0.15239999999999998 0.001"/>
      </geometry>
    </collision>
  </link>
  <link name="pod_bin_1i_back">
    <inertial>
      <mass value="0.01"/>
      <inertia ixx="0.0002835" ixy="0.0" ixz="0.0" iyy="0.0002835" iyz="0.0" izz="0.000324"/>
    </inertial>
    <visual>
      <origin xyz="0.1143 0.0635 -0.0005"/>
      <geometry>
        <box size="0.2286 0.127 0.001"/>
      </geometry>
      <material name="yellow_fabric"/>
    </visual>
    <collision>
      <origin xyz="0.1143 0.0635 -0.0005"/>
      <geometry>
        <box size="0.2286 0.127 0.001"/>
      </geometry>
    </collision>
  </link>
  <link name="pod_bin_1i_flap">
    <inertial>
      <mass value="0.01"/>
      <inertia ixx="0.0002835" ixy="0.0" ixz="0.0" iyy="0.0002835" iyz="0.0" izz="0.000324"/>
    </inertial>
    <visual>
      <origin xyz="0.1143 0.0127 -0.0005"/>
      <geometry>
        <box size="0.2286 0.0254 0.001"/>
      </geometry>
      <material name="yellow_fabric"/>
    </visual>
    <collision>
      <origin xyz="0.1143 0.0127 -0.0005"/>
      <geometry>
        <box size="0.2286 0.0254 0.001"/>
      </geometry>
    </collision>
  </link>
  <joint name="pod_bin_1i_pod_bin_1i_bottom" type="fixed">
    <parent link="pod_bin_1i"/>
    <child link="pod_bin_1i_bottom"/>
  </joint>
  <joint name="pod_bin_1i_pod_bin_1i_left" type="fixed">
    <origin rpy="1.5707963267948966 0 1.5707963267948966 " xyz="0 0 0"/>
    <parent link="pod_bin_1i"/>
    <child link="pod_bin_1i_left"/>
  </joint>
  <joint name="pod_bin_1i_pod_bin_1i_right" type="fixed">
    <origin rpy="1.5707963267948966 0 1.5707963267948966 " xyz="0.2286 0 0"/>
    <parent link="pod_bin_1i"/>
    <child link="pod_bin_1i_right"/>
  </joint>
  <joint name="pod_bin_1i_pod_bin_1i_top" type="fixed">
    <origin rpy="0 0 0" xyz="0 0 0.127"/>
    <parent link="pod_bin_1i"/>
    <child link="pod_bin_1i_top"/>
  </joint>
  <joint name="pod_bin_1i_pod_bin_1i_back" type="fixed">
    <origin rpy="1.5707963267948966 0 0" xyz="0 0.15239999999999998 0"/>
    <parent link="pod_bin_1i"/>
    <child link="pod_bin_1i_back"/>
  </joint>
  <joint name="pod_bin_1i_pod_bin_1i_flap" type="fixed">
    <origin rpy="1.5707963267948966 0 0" xyz="0 0 0"/>
    <parent link="pod_bin_1i"/>
    <child link="pod_bin_1i_flap"/>
  </joint>
  <joint name="pod_shelf_i_pod_bin_1i_joint" type="fixed">
    <origin xyz="0.0 0 0"/>
    <parent link="pod_shelf_i"/>
    <child link="pod_bin_1i"/>
  </joint>
  <link name="pod_bin_2i"/>
  <link name="pod_bin_2i_bottom">
    <inertial>
      <mass value="0.01"/>
      <inertia ixx="0.0002835" ixy="0.0" ixz="0.0" iyy="0.0002835" iyz="0.0" izz="0.000324"/>
    </inertial>
    <visual>
      <origin xyz="0.1143 0.07619999999999999 -0.0005"/>
      <geometry>
        <box size="0.2286 0.15239999999999998 0.001"/>
      </geometry>
      <material name="yellow_fabric"/>
    </visual>
    <collision>
      <origin xyz="0.1143 0.07619999999999999 -0.0005"/>
      <geometry>
        <box size="0.2286 0.15239999999999998 0.001"/>
      </geometry>
    </collision>
  </link>
  <link name="pod_bin_2i_left">
    <inertial>
      <mass value="0.01"/>
      <inertia ixx="0.0002835" ixy="0.0" ixz="0.0" iyy="0.0002835" iyz="0.0" izz="0.000324"/>
    </inertial>
    <visual>
      <origin xyz="0.07619999999999999 0.0635 -0.0005"/>
      <geometry>
        <box size="0.15239999999999998 0.127 0.001"/>
      </geometry>
      <material name="yellow_fabric"/>
    </visual>
    <collision>
      <origin xyz="0.07619999999999999 0.0635 -0.0005"/>
      <geometry>
        <box size="0.15239999999999998 0.127 0.001"/>
      </geometry>
    </collision>
  </link>
  <link name="pod_bin_2i_right">
    <inertial>
      <mass value="0.01"/>
      <inertia ixx="0.0002835" ixy="0.0" ixz="0.0" iyy="0.0002835" iyz="0.0" izz="0.000324"/>
    </inertial>
    <visual>
      <origin xyz="0.07619999999999999 0.0635 -0.0005"/>
      <geometry>
        <box size="0.15239999999999998 0.127 0.001"/>
      </geometry>
      <material name="yellow_fabric"/>
    </visual>
    <collision>
      <origin xyz="0.07619999999999999 0.0635 -0.0005"/>
      <geometry>
        <box size="0.15239999999999998 0.127 0.001"/>
      </geometry>
    </collision>
  </link>
  <link name="pod_bin_2i_top">
    <inertial>
      <mass value="0.01"/>
      <inertia ixx="0.0002835" ixy="0.0" ixz="0.0" iyy="0.0002835" iyz="0.0" izz="0.000324"/>
    </inertial>
    <visual>
      <origin xyz="0.1143 0.07619999999999999 -0.0005"/>
      <geometry>
        <box size="0.2286 0.15239999999999998 0.001"/>
      </geometry>
      <material name="yellow_fabric"/>
    </visual>
    <collision>
      <origin xyz="0.1143 0.07619999999999999 -0.0005"/>
      <geometry>
        <box size="0.2286 0.15239999999999998 0.001"/>
      </geometry>
    </collision>
  </link>
  <link name="pod_bin_2i_back">
    <inertial>
      <mass value="0.01"/>
      <inertia ixx="0.0002835" ixy="0.0" ixz="0.0" iyy="0.0002835" iyz="0.0" izz="0.000324"/>
    </inertial>
    <visual>
      <origin xyz="0.1143 0.0635 -0.0005"/>
      <geometry>
        <box size="0.2286 0.127 0.001"/>
      </geometry>
      <material name="yellow_fabric"/>
    </visual>
    <collision>
      <origin xyz="0.1143 0.0635 -0.0005"/>
      <geometry>
        <box size="0.2286 0.127 0.001"/>
      </geometry>
    </collision>
  </link>
  <link name="pod_bin_2i_flap">
    <inertial>
      <mass value="0.01"/>
      <inertia ixx="0.0002835" ixy="0.0" ixz="0.0" iyy="0.0002835" iyz="0.0" izz="0.000324"/>
    </inertial>
    <visual>
      <origin xyz="0.1143 0.0127 -0.0005"/>
      <geometry>
        <box size="0.2286 0.0254 0.001"/>
      </geometry>
      <material name="yellow_fabric"/>
    </visual>
    <collision>
      <origin xyz="0.1143 0.0127 -0.0005"/>
      <geometry>
        <box size="0.2286 0.0254 0.001"/>
      </geometry>
    </collision>
  </link>
  <joint name="pod_bin_2i_pod_bin_2i_bottom" type="fixed">
    <parent link="pod_bin_2i"/>
    <child link="pod_bin_2i_bottom"/>
  </joint>
  <joint name="pod_bin_2i_pod_bin_2i_left" type="fixed">
    <origin rpy="1.5707963267948966 0 1.5707963267948966 " xyz="0 0 0"/>
    <parent link="pod_bin_2i"/>
    <child link="pod_bin_2i_left"/>
  </joint>
  <joint name="pod_bin_2i_pod_bin_2i_right" type="fixed">
    <origin rpy="1.5707963267948966 0 1.5707963267948966 " xyz="0.2286 0 0"/>
    <parent link="pod_bin_2i"/>
    <child link="pod_bin_2i_right"/>
  </joint>
  <joint name="pod_bin_2i_pod_bin_2i_top" type="fixed">
    <origin rpy="0 0 0" xyz="0 0 0.127"/>
    <parent link="pod_bin_2i"/>
    <child link="pod_bin_2i_top"/>
  </joint>
  <joint name="pod_bin_2i_pod_bin_2i_back" type="fixed">
    <origin rpy="1.5707963267948966 0 0" xyz="0 0.15239999999999998 0"/>
    <parent link="pod_bin_2i"/>
    <child link="pod_bin_2i_back"/>
  </joint>
  <joint name="pod_bin_2i_pod_bin_2i_flap" type="fixed">
    <origin rpy="1.5707963267948966 0 0" xyz="0 0 0"/>
    <parent link="pod_bin_2i"/>
    <child link="pod_bin_2i_flap"/>
  </joint>
  <joint name="pod_shelf_i_pod_bin_2i_joint" type="fixed">
    <origin xyz="0.2286 0 0"/>
    <parent link="pod_shelf_i"/>
    <child link="pod_bin_2i"/>
  </joint>
  <link name="pod_bin_3i"/>
  <link name="pod_bin_3i_bottom">
    <inertial>
      <mass value="0.01"/>
      <inertia ixx="0.0002835" ixy="0.0" ixz="0.0" iyy="0.0002835" iyz="0.0" izz="0.000324"/>
    </inertial>
    <visual>
      <origin xyz="0.1143 0.07619999999999999 -0.0005"/>
      <geometry>
        <box size="0.2286 0.15239999999999998 0.001"/>
      </geometry>
      <material name="yellow_fabric"/>
    </visual>
    <collision>
      <origin xyz="0.1143 0.07619999999999999 -0.0005"/>
      <geometry>
        <box size="0.2286 0.15239999999999998 0.001"/>
      </geometry>
    </collision>
  </link>
  <link name="pod_bin_3i_left">
    <inertial>
      <mass value="0.01"/>
      <inertia ixx="0.0002835" ixy="0.0" ixz="0.0" iyy="0.0002835" iyz="0.0" izz="0.000324"/>
    </inertial>
    <visual>
      <origin xyz="0.07619999999999999 0.0635 -0.0005"/>
      <geometry>
        <box size="0.15239999999999998 0.127 0.001"/>
      </geometry>
      <material name="yellow_fabric"/>
    </visual>
    <collision>
      <origin xyz="0.07619999999999999 0.0635 -0.0005"/>
      <geometry>
        <box size="0.15239999999999998 0.127 0.001"/>
      </geometry>
    </collision>
  </link>
  <link name="pod_bin_3i_right">
    <inertial>
      <mass value="0.01"/>
      <inertia ixx="0.0002835" ixy="0.0" ixz="0.0" iyy="0.0002835" iyz="0.0" izz="0.000324"/>
    </inertial>
    <visual>
      <origin xyz="0.07619999999999999 0.0635 -0.0005"/>
      <geometry>
        <box size="0.15239999999999998 0.127 0.001"/>
      </geometry>
      <material name="yellow_fabric"/>
    </visual>
    <collision>
      <origin xyz="0.07619999999999999 0.0635 -0.0005"/>
      <geometry>
        <box size="0.15239999999999998 0.127 0.001"/>
      </geometry>
    </collision>
  </link>
  <link name="pod_bin_3i_top">
    <inertial>
      <mass value="0.01"/>
      <inertia ixx="0.0002835" ixy="0.0" ixz="0.0" iyy="0.0002835" iyz="0.0" izz="0.000324"/>
    </inertial>
    <visual>
      <origin xyz="0.1143 0.07619999999999999 -0.0005"/>
      <geometry>
        <box size="0.2286 0.15239999999999998 0.001"/>
      </geometry>
      <material name="yellow_fabric"/>
    </visual>
    <collision>
      <origin xyz="0.1143 0.07619999999999999 -0.0005"/>
      <geometry>
        <box size="0.2286 0.15239999999999998 0.001"/>
      </geometry>
    </collision>
  </link>
  <link name="pod_bin_3i_back">
    <inertial>
      <mass value="0.01"/>
      <inertia ixx="0.0002835" ixy="0.0" ixz="0.0" iyy="0.0002835" iyz="0.0" izz="0.000324"/>
    </inertial>
    <visual>
      <origin xyz="0.1143 0.0635 -0.0005"/>
      <geometry>
        <box size="0.2286 0.127 0.001"/>
      </geometry>
      <material name="yellow_fabric"/>
    </visual>
    <collision>
      <origin xyz="0.1143 0.0635 -0.0005"/>
      <geometry>
        <box size="0.2286 0.127 0.001"/>
      </geometry>
    </collision>
  </link>
  <link name="pod_bin_3i_flap">
    <inertial>
      <mass value="0.01"/>
      <inertia ixx="0.0002835" ixy="0.0" ixz="0.0" iyy="0.0002835" iyz="0.0" izz="0.000324"/>
    </inertial>
    <visual>
      <origin xyz="0.1143 0.0127 -0.0005"/>
      <geometry>
        <box size="0.2286 0.0254 0.001"/>
      </geometry>
      <material name="yellow_fabric"/>
    </visual>
    <collision>
      <origin xyz="0.1143 0.0127 -0.0005"/>
      <geometry>
        <box size="0.2286 0.0254 0.001"/>
      </geometry>
    </collision>
  </link>
  <joint name="pod_bin_3i_pod_bin_3i_bottom" type="fixed">
    <parent link="pod_bin_3i"/>
    <child link="pod_bin_3i_bottom"/>
  </joint>
  <joint name="pod_bin_3i_pod_bin_3i_left" type="fixed">
    <origin rpy="1.5707963267948966 0 1.5707963267948966 " xyz="0 0 0"/>
    <parent link="pod_bin_3i"/>
    <child link="pod_bin_3i_left"/>
  </joint>
  <joint name="pod_bin_3i_pod_bin_3i_right" type="fixed">
    <origin rpy="1.5707963267948966 0 1.5707963267948966 " xyz="0.2286 0 0"/>
    <parent link="pod_bin_3i"/>
    <child link="pod_bin_3i_right"/>
  </joint>
  <joint name="pod_bin_3i_pod_bin_3i_top" type="fixed">
    <origin rpy="0 0 0" xyz="0 0 0.127"/>
    <parent link="pod_bin_3i"/>
    <child link="pod_bin_3i_top"/>
  </joint>
  <joint name="pod_bin_3i_pod_bin_3i_back" type="fixed">
    <origin rpy="1.5707963267948966 0 0" xyz="0 0.15239999999999998 0"/>
    <parent link="pod_bin_3i"/>
    <child link="pod_bin_3i_back"/>
  </joint>
  <joint name="pod_bin_3i_pod_bin_3i_flap" type="fixed">
    <origin rpy="1.5707963267948966 0 0" xyz="0 0 0"/>
    <parent link="pod_bin_3i"/>
    <child link="pod_bin_3i_flap"/>
  </joint>
  <joint name="pod_shelf_i_pod_bin_3i_joint" type="fixed">
    <origin xyz="0.4572 0 0"/>
    <parent link="pod_shelf_i"/>
    <child link="pod_bin_3i"/>
  </joint>
  <link name="pod_bin_4i"/>
  <link name="pod_bin_4i_bottom">
    <inertial>
      <mass value="0.01"/>
      <inertia ixx="0.0002835" ixy="0.0" ixz="0.0" iyy="0.0002835" iyz="0.0" izz="0.000324"/>
    </inertial>
    <visual>
      <origin xyz="0.1143 0.07619999999999999 -0.0005"/>
      <geometry>
        <box size="0.2286 0.15239999999999998 0.001"/>
      </geometry>
      <material name="yellow_fabric"/>
    </visual>
    <collision>
      <origin xyz="0.1143 0.07619999999999999 -0.0005"/>
      <geometry>
        <box size="0.2286 0.15239999999999998 0.001"/>
      </geometry>
    </collision>
  </link>
  <link name="pod_bin_4i_left">
    <inertial>
      <mass value="0.01"/>
      <inertia ixx="0.0002835" ixy="0.0" ixz="0.0" iyy="0.0002835" iyz="0.0" izz="0.000324"/>
    </inertial>
    <visual>
      <origin xyz="0.07619999999999999 0.0635 -0.0005"/>
      <geometry>
        <box size="0.15239999999999998 0.127 0.001"/>
      </geometry>
      <material name="yellow_fabric"/>
    </visual>
    <collision>
      <origin xyz="0.07619999999999999 0.0635 -0.0005"/>
      <geometry>
        <box size="0.15239999999999998 0.127 0.001"/>
      </geometry>
    </collision>
  </link>
  <link name="pod_bin_4i_right">
    <inertial>
      <mass value="0.01"/>
      <inertia ixx="0.0002835" ixy="0.0" ixz="0.0" iyy="0.0002835" iyz="0.0" izz="0.000324"/>
    </inertial>
    <visual>
      <origin xyz="0.07619999999999999 0.0635 -0.0005"/>
      <geometry>
        <box size="0.15239999999999998 0.127 0.001"/>
      </geometry>
      <material name="yellow_fabric"/>
    </visual>
    <collision>
      <origin xyz="0.07619999999999999 0.0635 -0.0005"/>
      <geometry>
        <box size="0.15239999999999998 0.127 0.001"/>
      </geometry>
    </collision>
  </link>
  <link name="pod_bin_4i_top">
    <inertial>
      <mass value="0.01"/>
      <inertia ixx="0.0002835" ixy="0.0" ixz="0.0" iyy="0.0002835" iyz="0.0" izz="0.000324"/>
    </inertial>
    <visual>
      <origin xyz="0.1143 0.07619999999999999 -0.0005"/>
      <geometry>
        <box size="0.2286 0.15239999999999998 0.001"/>
      </geometry>
      <material name="yellow_fabric"/>
    </visual>
    <collision>
      <origin xyz="0.1143 0.07619999999999999 -0.0005"/>
      <geometry>
        <box size="0.2286 0.15239999999999998 0.001"/>
      </geometry>
    </collision>
  </link>
  <link name="pod_bin_4i_back">
    <inertial>
      <mass value="0.01"/>
      <inertia ixx="0.0002835" ixy="0.0" ixz="0.0" iyy="0.0002835" iyz="0.0" izz="0.000324"/>
    </inertial>
    <visual>
      <origin xyz="0.1143 0.0635 -0.0005"/>
      <geometry>
        <box size="0.2286 0.127 0.001"/>
      </geometry>
      <material name="yellow_fabric"/>
    </visual>
    <collision>
      <origin xyz="0.1143 0.0635 -0.0005"/>
      <geometry>
        <box size="0.2286 0.127 0.001"/>
      </geometry>
    </collision>
  </link>
  <link name="pod_bin_4i_flap">
    <inertial>
      <mass value="0.01"/>
      <inertia ixx="0.0002835" ixy="0.0" ixz="0.0" iyy="0.0002835" iyz="0.0" izz="0.000324"/>
    </inertial>
    <visual>
      <origin xyz="0.1143 0.0127 -0.0005"/>
      <geometry>
        <box size="0.2286 0.0254 0.001"/>
      </geometry>
      <material name="yellow_fabric"/>
    </visual>
    <collision>
      <origin xyz="0.1143 0.0127 -0.0005"/>
      <geometry>
        <box size="0.2286 0.0254 0.001"/>
      </geometry>
    </collision>
  </link>
  <joint name="pod_bin_4i_pod_bin_4i_bottom" type="fixed">
    <parent link="pod_bin_4i"/>
    <child link="pod_bin_4i_bottom"/>
  </joint>
  <joint name="pod_bin_4i_pod_bin_4i_left" type="fixed">
    <origin rpy="1.5707963267948966 0 1.5707963267948966 " xyz="0 0 0"/>
    <parent link="pod_bin_4i"/>
    <child link="pod_bin_4i_left"/>
  </joint>
  <joint name="pod_bin_4i_pod_bin_4i_right" type="fixed">
    <origin rpy="1.5707963267948966 0 1.5707963267948966 " xyz="0.2286 0 0"/>
    <parent link="pod_bin_4i"/>
    <child link="pod_bin_4i_right"/>
  </joint>
  <joint name="pod_bin_4i_pod_bin_4i_top" type="fixed">
    <origin rpy="0 0 0" xyz="0 0 0.127"/>
    <parent link="pod_bin_4i"/>
    <child link="pod_bin_4i_top"/>
  </joint>
  <joint name="pod_bin_4i_pod_bin_4i_back" type="fixed">
    <origin rpy="1.5707963267948966 0 0" xyz="0 0.15239999999999998 0"/>
    <parent link="pod_bin_4i"/>
    <child link="pod_bin_4i_back"/>
  </joint>
  <joint name="pod_bin_4i_pod_bin_4i_flap" type="fixed">
    <origin rpy="1.5707963267948966 0 0" xyz="0 0 0"/>
    <parent link="pod_bin_4i"/>
    <child link="pod_bin_4i_flap"/>
  </joint>
  <joint name="pod_shelf_i_pod_bin_4i_joint" type="fixed">
    <origin xyz="0.6858 0 0"/>
    <parent link="pod_shelf_i"/>
    <child link="pod_bin_4i"/>
  </joint>
  <joint name="pod_fabric_base_pod_shelf_i_joint" type="fixed">
    <origin xyz="0 0 1.3207999999999998"/>
    <parent link="pod_fabric_base"/>
    <child link="pod_shelf_i"/>
  </joint>
  <link name="pod_shelf_j"/>
  <link name="pod_bin_1j"/>
  <link name="pod_bin_1j_bottom">
    <inertial>
      <mass value="0.01"/>
      <inertia ixx="0.0002835" ixy="0.0" ixz="0.0" iyy="0.0002835" iyz="0.0" izz="0.000324"/>
    </inertial>
    <visual>
      <origin xyz="0.1143 0.07619999999999999 -0.0005"/>
      <geometry>
        <box size="0.2286 0.15239999999999998 0.001"/>
      </geometry>
      <material name="yellow_fabric"/>
    </visual>
    <collision>
      <origin xyz="0.1143 0.07619999999999999 -0.0005"/>
      <geometry>
        <box size="0.2286 0.15239999999999998 0.001"/>
      </geometry>
    </collision>
  </link>
  <link name="pod_bin_1j_left">
    <inertial>
      <mass value="0.01"/>
      <inertia ixx="0.0002835" ixy="0.0" ixz="0.0" iyy="0.0002835" iyz="0.0" izz="0.000324"/>
    </inertial>
    <visual>
      <origin xyz="0.07619999999999999 0.111125 -0.0005"/>
      <geometry>
        <box size="0.15239999999999998 0.22225 0.001"/>
      </geometry>
      <material name="yellow_fabric"/>
    </visual>
    <collision>
      <origin xyz="0.07619999999999999 0.111125 -0.0005"/>
      <geometry>
        <box size="0.15239999999999998 0.22225 0.001"/>
      </geometry>
    </collision>
  </link>
  <link name="pod_bin_1j_right">
    <inertial>
      <mass value="0.01"/>
      <inertia ixx="0.0002835" ixy="0.0" ixz="0.0" iyy="0.0002835" iyz="0.0" izz="0.000324"/>
    </inertial>
    <visual>
      <origin xyz="0.07619999999999999 0.111125 -0.0005"/>
      <geometry>
        <box size="0.15239999999999998 0.22225 0.001"/>
      </geometry>
      <material name="yellow_fabric"/>
    </visual>
    <collision>
      <origin xyz="0.07619999999999999 0.111125 -0.0005"/>
      <geometry>
        <box size="0.15239999999999998 0.22225 0.001"/>
      </geometry>
    </collision>
  </link>
  <link name="pod_bin_1j_top">
    <inertial>
      <mass value="0.01"/>
      <inertia ixx="0.0002835" ixy="0.0" ixz="0.0" iyy="0.0002835" iyz="0.0" izz="0.000324"/>
    </inertial>
    <visual>
      <origin xyz="0.1143 0.07619999999999999 -0.0005"/>
      <geometry>
        <box size="0.2286 0.15239999999999998 0.001"/>
      </geometry>
      <material name="yellow_fabric"/>
    </visual>
    <collision>
      <origin xyz="0.1143 0.07619999999999999 -0.0005"/>
      <geometry>
        <box size="0.2286 0.15239999999999998 0.001"/>
      </geometry>
    </collision>
  </link>
  <link name="pod_bin_1j_back">
    <inertial>
      <mass value="0.01"/>
      <inertia ixx="0.0002835" ixy="0.0" ixz="0.0" iyy="0.0002835" iyz="0.0" izz="0.000324"/>
    </inertial>
    <visual>
      <origin xyz="0.1143 0.111125 -0.0005"/>
      <geometry>
        <box size="0.2286 0.22225 0.001"/>
      </geometry>
      <material name="yellow_fabric"/>
    </visual>
    <collision>
      <origin xyz="0.1143 0.111125 -0.0005"/>
      <geometry>
        <box size="0.2286 0.22225 0.001"/>
      </geometry>
    </collision>
  </link>
  <link name="pod_bin_1j_flap">
    <inertial>
      <mass value="0.01"/>
      <inertia ixx="0.0002835" ixy="0.0" ixz="0.0" iyy="0.0002835" iyz="0.0" izz="0.000324"/>
    </inertial>
    <visual>
      <origin xyz="0.1143 0.0127 -0.0005"/>
      <geometry>
        <box size="0.2286 0.0254 0.001"/>
      </geometry>
      <material name="yellow_fabric"/>
    </visual>
    <collision>
      <origin xyz="0.1143 0.0127 -0.0005"/>
      <geometry>
        <box size="0.2286 0.0254 0.001"/>
      </geometry>
    </collision>
  </link>
  <joint name="pod_bin_1j_pod_bin_1j_bottom" type="fixed">
    <parent link="pod_bin_1j"/>
    <child link="pod_bin_1j_bottom"/>
  </joint>
  <joint name="pod_bin_1j_pod_bin_1j_left" type="fixed">
    <origin rpy="1.5707963267948966 0 1.5707963267948966 " xyz="0 0 0"/>
    <parent link="pod_bin_1j"/>
    <child link="pod_bin_1j_left"/>
  </joint>
  <joint name="pod_bin_1j_pod_bin_1j_right" type="fixed">
    <origin rpy="1.5707963267948966 0 1.5707963267948966 " xyz="0.2286 0 0"/>
    <parent link="pod_bin_1j"/>
    <child link="pod_bin_1j_right"/>
  </joint>
  <joint name="pod_bin_1j_pod_bin_1j_top" type="fixed">
    <origin rpy="0 0 0" xyz="0 0 0.22225"/>
    <parent link="pod_bin_1j"/>
    <child link="pod_bin_1j_top"/>
  </joint>
  <joint name="pod_bin_1j_pod_bin_1j_back" type="fixed">
    <origin rpy="1.5707963267948966 0 0" xyz="0 0.15239999999999998 0"/>
    <parent link="pod_bin_1j"/>
    <child link="pod_bin_1j_back"/>
  </joint>
  <joint name="pod_bin_1j_pod_bin_1j_flap" type="fixed">
    <origin rpy="1.5707963267948966 0 0" xyz="0 0 0"/>
    <parent link="pod_bin_1j"/>
    <child link="pod_bin_1j_flap"/>
  </joint>
  <joint name="pod_shelf_j_pod_bin_1j_joint" type="fixed">
    <origin xyz="0.0 0 0"/>
    <parent link="pod_shelf_j"/>
    <child link="pod_bin_1j"/>
  </joint>
  <link name="pod_bin_2j"/>
  <link name="pod_bin_2j_bottom">
    <inertial>
      <mass value="0.01"/>
      <inertia ixx="0.0002835" ixy="0.0" ixz="0.0" iyy="0.0002835" iyz="0.0" izz="0.000324"/>
    </inertial>
    <visual>
      <origin xyz="0.1143 0.07619999999999999 -0.0005"/>
      <geometry>
        <box size="0.2286 0.15239999999999998 0.001"/>
      </geometry>
      <material name="yellow_fabric"/>
    </visual>
    <collision>
      <origin xyz="0.1143 0.07619999999999999 -0.0005"/>
      <geometry>
        <box size="0.2286 0.15239999999999998 0.001"/>
      </geometry>
    </collision>
  </link>
  <link name="pod_bin_2j_left">
    <inertial>
      <mass value="0.01"/>
      <inertia ixx="0.0002835" ixy="0.0" ixz="0.0" iyy="0.0002835" iyz="0.0" izz="0.000324"/>
    </inertial>
    <visual>
      <origin xyz="0.07619999999999999 0.111125 -0.0005"/>
      <geometry>
        <box size="0.15239999999999998 0.22225 0.001"/>
      </geometry>
      <material name="yellow_fabric"/>
    </visual>
    <collision>
      <origin xyz="0.07619999999999999 0.111125 -0.0005"/>
      <geometry>
        <box size="0.15239999999999998 0.22225 0.001"/>
      </geometry>
    </collision>
  </link>
  <link name="pod_bin_2j_right">
    <inertial>
      <mass value="0.01"/>
      <inertia ixx="0.0002835" ixy="0.0" ixz="0.0" iyy="0.0002835" iyz="0.0" izz="0.000324"/>
    </inertial>
    <visual>
      <origin xyz="0.07619999999999999 0.111125 -0.0005"/>
      <geometry>
        <box size="0.15239999999999998 0.22225 0.001"/>
      </geometry>
      <material name="yellow_fabric"/>
    </visual>
    <collision>
      <origin xyz="0.07619999999999999 0.111125 -0.0005"/>
      <geometry>
        <box size="0.15239999999999998 0.22225 0.001"/>
      </geometry>
    </collision>
  </link>
  <link name="pod_bin_2j_top">
    <inertial>
      <mass value="0.01"/>
      <inertia ixx="0.0002835" ixy="0.0" ixz="0.0" iyy="0.0002835" iyz="0.0" izz="0.000324"/>
    </inertial>
    <visual>
      <origin xyz="0.1143 0.07619999999999999 -0.0005"/>
      <geometry>
        <box size="0.2286 0.15239999999999998 0.001"/>
      </geometry>
      <material name="yellow_fabric"/>
    </visual>
    <collision>
      <origin xyz="0.1143 0.07619999999999999 -0.0005"/>
      <geometry>
        <box size="0.2286 0.15239999999999998 0.001"/>
      </geometry>
    </collision>
  </link>
  <link name="pod_bin_2j_back">
    <inertial>
      <mass value="0.01"/>
      <inertia ixx="0.0002835" ixy="0.0" ixz="0.0" iyy="0.0002835" iyz="0.0" izz="0.000324"/>
    </inertial>
    <visual>
      <origin xyz="0.1143 0.111125 -0.0005"/>
      <geometry>
        <box size="0.2286 0.22225 0.001"/>
      </geometry>
      <material name="yellow_fabric"/>
    </visual>
    <collision>
      <origin xyz="0.1143 0.111125 -0.0005"/>
      <geometry>
        <box size="0.2286 0.22225 0.001"/>
      </geometry>
    </collision>
  </link>
  <link name="pod_bin_2j_flap">
    <inertial>
      <mass value="0.01"/>
      <inertia ixx="0.0002835" ixy="0.0" ixz="0.0" iyy="0.0002835" iyz="0.0" izz="0.000324"/>
    </inertial>
    <visual>
      <origin xyz="0.1143 0.0127 -0.0005"/>
      <geometry>
        <box size="0.2286 0.0254 0.001"/>
      </geometry>
      <material name="yellow_fabric"/>
    </visual>
    <collision>
      <origin xyz="0.1143 0.0127 -0.0005"/>
      <geometry>
        <box size="0.2286 0.0254 0.001"/>
      </geometry>
    </collision>
  </link>
  <joint name="pod_bin_2j_pod_bin_2j_bottom" type="fixed">
    <parent link="pod_bin_2j"/>
    <child link="pod_bin_2j_bottom"/>
  </joint>
  <joint name="pod_bin_2j_pod_bin_2j_left" type="fixed">
    <origin rpy="1.5707963267948966 0 1.5707963267948966 " xyz="0 0 0"/>
    <parent link="pod_bin_2j"/>
    <child link="pod_bin_2j_left"/>
  </joint>
  <joint name="pod_bin_2j_pod_bin_2j_right" type="fixed">
    <origin rpy="1.5707963267948966 0 1.5707963267948966 " xyz="0.2286 0 0"/>
    <parent link="pod_bin_2j"/>
    <child link="pod_bin_2j_right"/>
  </joint>
  <joint name="pod_bin_2j_pod_bin_2j_top" type="fixed">
    <origin rpy="0 0 0" xyz="0 0 0.22225"/>
    <parent link="pod_bin_2j"/>
    <child link="pod_bin_2j_top"/>
  </joint>
  <joint name="pod_bin_2j_pod_bin_2j_back" type="fixed">
    <origin rpy="1.5707963267948966 0 0" xyz="0 0.15239999999999998 0"/>
    <parent link="pod_bin_2j"/>
    <child link="pod_bin_2j_back"/>
  </joint>
  <joint name="pod_bin_2j_pod_bin_2j_flap" type="fixed">
    <origin rpy="1.5707963267948966 0 0" xyz="0 0 0"/>
    <parent link="pod_bin_2j"/>
    <child link="pod_bin_2j_flap"/>
  </joint>
  <joint name="pod_shelf_j_pod_bin_2j_joint" type="fixed">
    <origin xyz="0.2286 0 0"/>
    <parent link="pod_shelf_j"/>
    <child link="pod_bin_2j"/>
  </joint>
  <link name="pod_bin_3j"/>
  <link name="pod_bin_3j_bottom">
    <inertial>
      <mass value="0.01"/>
      <inertia ixx="0.0002835" ixy="0.0" ixz="0.0" iyy="0.0002835" iyz="0.0" izz="0.000324"/>
    </inertial>
    <visual>
      <origin xyz="0.1143 0.07619999999999999 -0.0005"/>
      <geometry>
        <box size="0.2286 0.15239999999999998 0.001"/>
      </geometry>
      <material name="yellow_fabric"/>
    </visual>
    <collision>
      <origin xyz="0.1143 0.07619999999999999 -0.0005"/>
      <geometry>
        <box size="0.2286 0.15239999999999998 0.001"/>
      </geometry>
    </collision>
  </link>
  <link name="pod_bin_3j_left">
    <inertial>
      <mass value="0.01"/>
      <inertia ixx="0.0002835" ixy="0.0" ixz="0.0" iyy="0.0002835" iyz="0.0" izz="0.000324"/>
    </inertial>
    <visual>
      <origin xyz="0.07619999999999999 0.111125 -0.0005"/>
      <geometry>
        <box size="0.15239999999999998 0.22225 0.001"/>
      </geometry>
      <material name="yellow_fabric"/>
    </visual>
    <collision>
      <origin xyz="0.07619999999999999 0.111125 -0.0005"/>
      <geometry>
        <box size="0.15239999999999998 0.22225 0.001"/>
      </geometry>
    </collision>
  </link>
  <link name="pod_bin_3j_right">
    <inertial>
      <mass value="0.01"/>
      <inertia ixx="0.0002835" ixy="0.0" ixz="0.0" iyy="0.0002835" iyz="0.0" izz="0.000324"/>
    </inertial>
    <visual>
      <origin xyz="0.07619999999999999 0.111125 -0.0005"/>
      <geometry>
        <box size="0.15239999999999998 0.22225 0.001"/>
      </geometry>
      <material name="yellow_fabric"/>
    </visual>
    <collision>
      <origin xyz="0.07619999999999999 0.111125 -0.0005"/>
      <geometry>
        <box size="0.15239999999999998 0.22225 0.001"/>
      </geometry>
    </collision>
  </link>
  <link name="pod_bin_3j_top">
    <inertial>
      <mass value="0.01"/>
      <inertia ixx="0.0002835" ixy="0.0" ixz="0.0" iyy="0.0002835" iyz="0.0" izz="0.000324"/>
    </inertial>
    <visual>
      <origin xyz="0.1143 0.07619999999999999 -0.0005"/>
      <geometry>
        <box size="0.2286 0.15239999999999998 0.001"/>
      </geometry>
      <material name="yellow_fabric"/>
    </visual>
    <collision>
      <origin xyz="0.1143 0.07619999999999999 -0.0005"/>
      <geometry>
        <box size="0.2286 0.15239999999999998 0.001"/>
      </geometry>
    </collision>
  </link>
  <link name="pod_bin_3j_back">
    <inertial>
      <mass value="0.01"/>
      <inertia ixx="0.0002835" ixy="0.0" ixz="0.0" iyy="0.0002835" iyz="0.0" izz="0.000324"/>
    </inertial>
    <visual>
      <origin xyz="0.1143 0.111125 -0.0005"/>
      <geometry>
        <box size="0.2286 0.22225 0.001"/>
      </geometry>
      <material name="yellow_fabric"/>
    </visual>
    <collision>
      <origin xyz="0.1143 0.111125 -0.0005"/>
      <geometry>
        <box size="0.2286 0.22225 0.001"/>
      </geometry>
    </collision>
  </link>
  <link name="pod_bin_3j_flap">
    <inertial>
      <mass value="0.01"/>
      <inertia ixx="0.0002835" ixy="0.0" ixz="0.0" iyy="0.0002835" iyz="0.0" izz="0.000324"/>
    </inertial>
    <visual>
      <origin xyz="0.1143 0.0127 -0.0005"/>
      <geometry>
        <box size="0.2286 0.0254 0.001"/>
      </geometry>
      <material name="yellow_fabric"/>
    </visual>
    <collision>
      <origin xyz="0.1143 0.0127 -0.0005"/>
      <geometry>
        <box size="0.2286 0.0254 0.001"/>
      </geometry>
    </collision>
  </link>
  <joint name="pod_bin_3j_pod_bin_3j_bottom" type="fixed">
    <parent link="pod_bin_3j"/>
    <child link="pod_bin_3j_bottom"/>
  </joint>
  <joint name="pod_bin_3j_pod_bin_3j_left" type="fixed">
    <origin rpy="1.5707963267948966 0 1.5707963267948966 " xyz="0 0 0"/>
    <parent link="pod_bin_3j"/>
    <child link="pod_bin_3j_left"/>
  </joint>
  <joint name="pod_bin_3j_pod_bin_3j_right" type="fixed">
    <origin rpy="1.5707963267948966 0 1.5707963267948966 " xyz="0.2286 0 0"/>
    <parent link="pod_bin_3j"/>
    <child link="pod_bin_3j_right"/>
  </joint>
  <joint name="pod_bin_3j_pod_bin_3j_top" type="fixed">
    <origin rpy="0 0 0" xyz="0 0 0.22225"/>
    <parent link="pod_bin_3j"/>
    <child link="pod_bin_3j_top"/>
  </joint>
  <joint name="pod_bin_3j_pod_bin_3j_back" type="fixed">
    <origin rpy="1.5707963267948966 0 0" xyz="0 0.15239999999999998 0"/>
    <parent link="pod_bin_3j"/>
    <child link="pod_bin_3j_back"/>
  </joint>
  <joint name="pod_bin_3j_pod_bin_3j_flap" type="fixed">
    <origin rpy="1.5707963267948966 0 0" xyz="0 0 0"/>
    <parent link="pod_bin_3j"/>
    <child link="pod_bin_3j_flap"/>
  </joint>
  <joint name="pod_shelf_j_pod_bin_3j_joint" type="fixed">
    <origin xyz="0.4572 0 0"/>
    <parent link="pod_shelf_j"/>
    <child link="pod_bin_3j"/>
  </joint>
  <link name="pod_bin_4j"/>
  <link name="pod_bin_4j_bottom">
    <inertial>
      <mass value="0.01"/>
      <inertia ixx="0.0002835" ixy="0.0" ixz="0.0" iyy="0.0002835" iyz="0.0" izz="0.000324"/>
    </inertial>
    <visual>
      <origin xyz="0.1143 0.07619999999999999 -0.0005"/>
      <geometry>
        <box size="0.2286 0.15239999999999998 0.001"/>
      </geometry>
      <material name="yellow_fabric"/>
    </visual>
    <collision>
      <origin xyz="0.1143 0.07619999999999999 -0.0005"/>
      <geometry>
        <box size="0.2286 0.15239999999999998 0.001"/>
      </geometry>
    </collision>
  </link>
  <link name="pod_bin_4j_left">
    <inertial>
      <mass value="0.01"/>
      <inertia ixx="0.0002835" ixy="0.0" ixz="0.0" iyy="0.0002835" iyz="0.0" izz="0.000324"/>
    </inertial>
    <visual>
      <origin xyz="0.07619999999999999 0.111125 -0.0005"/>
      <geometry>
        <box size="0.15239999999999998 0.22225 0.001"/>
      </geometry>
      <material name="yellow_fabric"/>
    </visual>
    <collision>
      <origin xyz="0.07619999999999999 0.111125 -0.0005"/>
      <geometry>
        <box size="0.15239999999999998 0.22225 0.001"/>
      </geometry>
    </collision>
  </link>
  <link name="pod_bin_4j_right">
    <inertial>
      <mass value="0.01"/>
      <inertia ixx="0.0002835" ixy="0.0" ixz="0.0" iyy="0.0002835" iyz="0.0" izz="0.000324"/>
    </inertial>
    <visual>
      <origin xyz="0.07619999999999999 0.111125 -0.0005"/>
      <geometry>
        <box size="0.15239999999999998 0.22225 0.001"/>
      </geometry>
      <material name="yellow_fabric"/>
    </visual>
    <collision>
      <origin xyz="0.07619999999999999 0.111125 -0.0005"/>
      <geometry>
        <box size="0.15239999999999998 0.22225 0.001"/>
      </geometry>
    </collision>
  </link>
  <link name="pod_bin_4j_top">
    <inertial>
      <mass value="0.01"/>
      <inertia ixx="0.0002835" ixy="0.0" ixz="0.0" iyy="0.0002835" iyz="0.0" izz="0.000324"/>
    </inertial>
    <visual>
      <origin xyz="0.1143 0.07619999999999999 -0.0005"/>
      <geometry>
        <box size="0.2286 0.15239999999999998 0.001"/>
      </geometry>
      <material name="yellow_fabric"/>
    </visual>
    <collision>
      <origin xyz="0.1143 0.07619999999999999 -0.0005"/>
      <geometry>
        <box size="0.2286 0.15239999999999998 0.001"/>
      </geometry>
    </collision>
  </link>
  <link name="pod_bin_4j_back">
    <inertial>
      <mass value="0.01"/>
      <inertia ixx="0.0002835" ixy="0.0" ixz="0.0" iyy="0.0002835" iyz="0.0" izz="0.000324"/>
    </inertial>
    <visual>
      <origin xyz="0.1143 0.111125 -0.0005"/>
      <geometry>
        <box size="0.2286 0.22225 0.001"/>
      </geometry>
      <material name="yellow_fabric"/>
    </visual>
    <collision>
      <origin xyz="0.1143 0.111125 -0.0005"/>
      <geometry>
        <box size="0.2286 0.22225 0.001"/>
      </geometry>
    </collision>
  </link>
  <link name="pod_bin_4j_flap">
    <inertial>
      <mass value="0.01"/>
      <inertia ixx="0.0002835" ixy="0.0" ixz="0.0" iyy="0.0002835" iyz="0.0" izz="0.000324"/>
    </inertial>
    <visual>
      <origin xyz="0.1143 0.0127 -0.0005"/>
      <geometry>
        <box size="0.2286 0.0254 0.001"/>
      </geometry>
      <material name="yellow_fabric"/>
    </visual>
    <collision>
      <origin xyz="0.1143 0.0127 -0.0005"/>
      <geometry>
        <box size="0.2286 0.0254 0.001"/>
      </geometry>
    </collision>
  </link>
  <joint name="pod_bin_4j_pod_bin_4j_bottom" type="fixed">
    <parent link="pod_bin_4j"/>
    <child link="pod_bin_4j_bottom"/>
  </joint>
  <joint name="pod_bin_4j_pod_bin_4j_left" type="fixed">
    <origin rpy="1.5707963267948966 0 1.5707963267948966 " xyz="0 0 0"/>
    <parent link="pod_bin_4j"/>
    <child link="pod_bin_4j_left"/>
  </joint>
  <joint name="pod_bin_4j_pod_bin_4j_right" type="fixed">
    <origin rpy="1.5707963267948966 0 1.5707963267948966 " xyz="0.2286 0 0"/>
    <parent link="pod_bin_4j"/>
    <child link="pod_bin_4j_right"/>
  </joint>
  <joint name="pod_bin_4j_pod_bin_4j_top" type="fixed">
    <origin rpy="0 0 0" xyz="0 0 0.22225"/>
    <parent link="pod_bin_4j"/>
    <child link="pod_bin_4j_top"/>
  </joint>
  <joint name="pod_bin_4j_pod_bin_4j_back" type="fixed">
    <origin rpy="1.5707963267948966 0 0" xyz="0 0.15239999999999998 0"/>
    <parent link="pod_bin_4j"/>
    <child link="pod_bin_4j_back"/>
  </joint>
  <joint name="pod_bin_4j_pod_bin_4j_flap" type="fixed">
    <origin rpy="1.5707963267948966 0 0" xyz="0 0 0"/>
    <parent link="pod_bin_4j"/>
    <child link="pod_bin_4j_flap"/>
  </joint>
  <joint name="pod_shelf_j_pod_bin_4j_joint" type="fixed">
    <origin xyz="0.6858 0 0"/>
    <parent link="pod_shelf_j"/>
    <child link="pod_bin_4j"/>
  </joint>
  <joint name="pod_fabric_base_pod_shelf_j_joint" type="fixed">
    <origin xyz="0 0 1.4477999999999998"/>
    <parent link="pod_fabric_base"/>
    <child link="pod_shelf_j"/>
  </joint>
  <link name="pod_shelf_k"/>
  <link name="pod_bin_1k"/>
  <link name="pod_bin_1k_bottom">
    <inertial>
      <mass value="0.01"/>
      <inertia ixx="0.0002835" ixy="0.0" ixz="0.0" iyy="0.0002835" iyz="0.0" izz="0.000324"/>
    </inertial>
    <visual>
      <origin xyz="0.1143 0.07619999999999999 -0.0005"/>
      <geometry>
        <box size="0.2286 0.15239999999999998 0.001"/>
      </geometry>
      <material name="yellow_fabric"/>
    </visual>
    <collision>
      <origin xyz="0.1143 0.07619999999999999 -0.0005"/>
      <geometry>
        <box size="0.2286 0.15239999999999998 0.001"/>
      </geometry>
    </collision>
  </link>
  <link name="pod_bin_1k_left">
    <inertial>
      <mass value="0.01"/>
      <inertia ixx="0.0002835" ixy="0.0" ixz="0.0" iyy="0.0002835" iyz="0.0" izz="0.000324"/>
    </inertial>
    <visual>
      <origin xyz="0.07619999999999999 0.0635 -0.0005"/>
      <geometry>
        <box size="0.15239999999999998 0.127 0.001"/>
      </geometry>
      <material name="yellow_fabric"/>
    </visual>
    <collision>
      <origin xyz="0.07619999999999999 0.0635 -0.0005"/>
      <geometry>
        <box size="0.15239999999999998 0.127 0.001"/>
      </geometry>
    </collision>
  </link>
  <link name="pod_bin_1k_right">
    <inertial>
      <mass value="0.01"/>
      <inertia ixx="0.0002835" ixy="0.0" ixz="0.0" iyy="0.0002835" iyz="0.0" izz="0.000324"/>
    </inertial>
    <visual>
      <origin xyz="0.07619999999999999 0.0635 -0.0005"/>
      <geometry>
        <box size="0.15239999999999998 0.127 0.001"/>
      </geometry>
      <material name="yellow_fabric"/>
    </visual>
    <collision>
      <origin xyz="0.07619999999999999 0.0635 -0.0005"/>
      <geometry>
        <box size="0.15239999999999998 0.127 0.001"/>
      </geometry>
    </collision>
  </link>
  <link name="pod_bin_1k_top">
    <inertial>
      <mass value="0.01"/>
      <inertia ixx="0.0002835" ixy="0.0" ixz="0.0" iyy="0.0002835" iyz="0.0" izz="0.000324"/>
    </inertial>
    <visual>
      <origin xyz="0.1143 0.07619999999999999 -0.0005"/>
      <geometry>
        <box size="0.2286 0.15239999999999998 0.001"/>
      </geometry>
      <material name="yellow_fabric"/>
    </visual>
    <collision>
      <origin xyz="0.1143 0.07619999999999999 -0.0005"/>
      <geometry>
        <box size="0.2286 0.15239999999999998 0.001"/>
      </geometry>
    </collision>
  </link>
  <link name="pod_bin_1k_back">
    <inertial>
      <mass value="0.01"/>
      <inertia ixx="0.0002835" ixy="0.0" ixz="0.0" iyy="0.0002835" iyz="0.0" izz="0.000324"/>
    </inertial>
    <visual>
      <origin xyz="0.1143 0.0635 -0.0005"/>
      <geometry>
        <box size="0.2286 0.127 0.001"/>
      </geometry>
      <material name="yellow_fabric"/>
    </visual>
    <collision>
      <origin xyz="0.1143 0.0635 -0.0005"/>
      <geometry>
        <box size="0.2286 0.127 0.001"/>
      </geometry>
    </collision>
  </link>
  <link name="pod_bin_1k_flap">
    <inertial>
      <mass value="0.01"/>
      <inertia ixx="0.0002835" ixy="0.0" ixz="0.0" iyy="0.0002835" iyz="0.0" izz="0.000324"/>
    </inertial>
    <visual>
      <origin xyz="0.1143 0.0127 -0.0005"/>
      <geometry>
        <box size="0.2286 0.0254 0.001"/>
      </geometry>
      <material name="yellow_fabric"/>
    </visual>
    <collision>
      <origin xyz="0.1143 0.0127 -0.0005"/>
      <geometry>
        <box size="0.2286 0.0254 0.001"/>
      </geometry>
    </collision>
  </link>
  <joint name="pod_bin_1k_pod_bin_1k_bottom" type="fixed">
    <parent link="pod_bin_1k"/>
    <child link="pod_bin_1k_bottom"/>
  </joint>
  <joint name="pod_bin_1k_pod_bin_1k_left" type="fixed">
    <origin rpy="1.5707963267948966 0 1.5707963267948966 " xyz="0 0 0"/>
    <parent link="pod_bin_1k"/>
    <child link="pod_bin_1k_left"/>
  </joint>
  <joint name="pod_bin_1k_pod_bin_1k_right" type="fixed">
    <origin rpy="1.5707963267948966 0 1.5707963267948966 " xyz="0.2286 0 0"/>
    <parent link="pod_bin_1k"/>
    <child link="pod_bin_1k_right"/>
  </joint>
  <joint name="pod_bin_1k_pod_bin_1k_top" type="fixed">
    <origin rpy="0 0 0" xyz="0 0 0.127"/>
    <parent link="pod_bin_1k"/>
    <child link="pod_bin_1k_top"/>
  </joint>
  <joint name="pod_bin_1k_pod_bin_1k_back" type="fixed">
    <origin rpy="1.5707963267948966 0 0" xyz="0 0.15239999999999998 0"/>
    <parent link="pod_bin_1k"/>
    <child link="pod_bin_1k_back"/>
  </joint>
  <joint name="pod_bin_1k_pod_bin_1k_flap" type="fixed">
    <origin rpy="1.5707963267948966 0 0" xyz="0 0 0"/>
    <parent link="pod_bin_1k"/>
    <child link="pod_bin_1k_flap"/>
  </joint>
  <joint name="pod_shelf_k_pod_bin_1k_joint" type="fixed">
    <origin xyz="0.0 0 0"/>
    <parent link="pod_shelf_k"/>
    <child link="pod_bin_1k"/>
  </joint>
  <link name="pod_bin_2k"/>
  <link name="pod_bin_2k_bottom">
    <inertial>
      <mass value="0.01"/>
      <inertia ixx="0.0002835" ixy="0.0" ixz="0.0" iyy="0.0002835" iyz="0.0" izz="0.000324"/>
    </inertial>
    <visual>
      <origin xyz="0.1143 0.07619999999999999 -0.0005"/>
      <geometry>
        <box size="0.2286 0.15239999999999998 0.001"/>
      </geometry>
      <material name="yellow_fabric"/>
    </visual>
    <collision>
      <origin xyz="0.1143 0.07619999999999999 -0.0005"/>
      <geometry>
        <box size="0.2286 0.15239999999999998 0.001"/>
      </geometry>
    </collision>
  </link>
  <link name="pod_bin_2k_left">
    <inertial>
      <mass value="0.01"/>
      <inertia ixx="0.0002835" ixy="0.0" ixz="0.0" iyy="0.0002835" iyz="0.0" izz="0.000324"/>
    </inertial>
    <visual>
      <origin xyz="0.07619999999999999 0.0635 -0.0005"/>
      <geometry>
        <box size="0.15239999999999998 0.127 0.001"/>
      </geometry>
      <material name="yellow_fabric"/>
    </visual>
    <collision>
      <origin xyz="0.07619999999999999 0.0635 -0.0005"/>
      <geometry>
        <box size="0.15239999999999998 0.127 0.001"/>
      </geometry>
    </collision>
  </link>
  <link name="pod_bin_2k_right">
    <inertial>
      <mass value="0.01"/>
      <inertia ixx="0.0002835" ixy="0.0" ixz="0.0" iyy="0.0002835" iyz="0.0" izz="0.000324"/>
    </inertial>
    <visual>
      <origin xyz="0.07619999999999999 0.0635 -0.0005"/>
      <geometry>
        <box size="0.15239999999999998 0.127 0.001"/>
      </geometry>
      <material name="yellow_fabric"/>
    </visual>
    <collision>
      <origin xyz="0.07619999999999999 0.0635 -0.0005"/>
      <geometry>
        <box size="0.15239999999999998 0.127 0.001"/>
      </geometry>
    </collision>
  </link>
  <link name="pod_bin_2k_top">
    <inertial>
      <mass value="0.01"/>
      <inertia ixx="0.0002835" ixy="0.0" ixz="0.0" iyy="0.0002835" iyz="0.0" izz="0.000324"/>
    </inertial>
    <visual>
      <origin xyz="0.1143 0.07619999999999999 -0.0005"/>
      <geometry>
        <box size="0.2286 0.15239999999999998 0.001"/>
      </geometry>
      <material name="yellow_fabric"/>
    </visual>
    <collision>
      <origin xyz="0.1143 0.07619999999999999 -0.0005"/>
      <geometry>
        <box size="0.2286 0.15239999999999998 0.001"/>
      </geometry>
    </collision>
  </link>
  <link name="pod_bin_2k_back">
    <inertial>
      <mass value="0.01"/>
      <inertia ixx="0.0002835" ixy="0.0" ixz="0.0" iyy="0.0002835" iyz="0.0" izz="0.000324"/>
    </inertial>
    <visual>
      <origin xyz="0.1143 0.0635 -0.0005"/>
      <geometry>
        <box size="0.2286 0.127 0.001"/>
      </geometry>
      <material name="yellow_fabric"/>
    </visual>
    <collision>
      <origin xyz="0.1143 0.0635 -0.0005"/>
      <geometry>
        <box size="0.2286 0.127 0.001"/>
      </geometry>
    </collision>
  </link>
  <link name="pod_bin_2k_flap">
    <inertial>
      <mass value="0.01"/>
      <inertia ixx="0.0002835" ixy="0.0" ixz="0.0" iyy="0.0002835" iyz="0.0" izz="0.000324"/>
    </inertial>
    <visual>
      <origin xyz="0.1143 0.0127 -0.0005"/>
      <geometry>
        <box size="0.2286 0.0254 0.001"/>
      </geometry>
      <material name="yellow_fabric"/>
    </visual>
    <collision>
      <origin xyz="0.1143 0.0127 -0.0005"/>
      <geometry>
        <box size="0.2286 0.0254 0.001"/>
      </geometry>
    </collision>
  </link>
  <joint name="pod_bin_2k_pod_bin_2k_bottom" type="fixed">
    <parent link="pod_bin_2k"/>
    <child link="pod_bin_2k_bottom"/>
  </joint>
  <joint name="pod_bin_2k_pod_bin_2k_left" type="fixed">
    <origin rpy="1.5707963267948966 0 1.5707963267948966 " xyz="0 0 0"/>
    <parent link="pod_bin_2k"/>
    <child link="pod_bin_2k_left"/>
  </joint>
  <joint name="pod_bin_2k_pod_bin_2k_right" type="fixed">
    <origin rpy="1.5707963267948966 0 1.5707963267948966 " xyz="0.2286 0 0"/>
    <parent link="pod_bin_2k"/>
    <child link="pod_bin_2k_right"/>
  </joint>
  <joint name="pod_bin_2k_pod_bin_2k_top" type="fixed">
    <origin rpy="0 0 0" xyz="0 0 0.127"/>
    <parent link="pod_bin_2k"/>
    <child link="pod_bin_2k_top"/>
  </joint>
  <joint name="pod_bin_2k_pod_bin_2k_back" type="fixed">
    <origin rpy="1.5707963267948966 0 0" xyz="0 0.15239999999999998 0"/>
    <parent link="pod_bin_2k"/>
    <child link="pod_bin_2k_back"/>
  </joint>
  <joint name="pod_bin_2k_pod_bin_2k_flap" type="fixed">
    <origin rpy="1.5707963267948966 0 0" xyz="0 0 0"/>
    <parent link="pod_bin_2k"/>
    <child link="pod_bin_2k_flap"/>
  </joint>
  <joint name="pod_shelf_k_pod_bin_2k_joint" type="fixed">
    <origin xyz="0.2286 0 0"/>
    <parent link="pod_shelf_k"/>
    <child link="pod_bin_2k"/>
  </joint>
  <link name="pod_bin_3k"/>
  <link name="pod_bin_3k_bottom">
    <inertial>
      <mass value="0.01"/>
      <inertia ixx="0.0002835" ixy="0.0" ixz="0.0" iyy="0.0002835" iyz="0.0" izz="0.000324"/>
    </inertial>
    <visual>
      <origin xyz="0.1143 0.07619999999999999 -0.0005"/>
      <geometry>
        <box size="0.2286 0.15239999999999998 0.001"/>
      </geometry>
      <material name="yellow_fabric"/>
    </visual>
    <collision>
      <origin xyz="0.1143 0.07619999999999999 -0.0005"/>
      <geometry>
        <box size="0.2286 0.15239999999999998 0.001"/>
      </geometry>
    </collision>
  </link>
  <link name="pod_bin_3k_left">
    <inertial>
      <mass value="0.01"/>
      <inertia ixx="0.0002835" ixy="0.0" ixz="0.0" iyy="0.0002835" iyz="0.0" izz="0.000324"/>
    </inertial>
    <visual>
      <origin xyz="0.07619999999999999 0.0635 -0.0005"/>
      <geometry>
        <box size="0.15239999999999998 0.127 0.001"/>
      </geometry>
      <material name="yellow_fabric"/>
    </visual>
    <collision>
      <origin xyz="0.07619999999999999 0.0635 -0.0005"/>
      <geometry>
        <box size="0.15239999999999998 0.127 0.001"/>
      </geometry>
    </collision>
  </link>
  <link name="pod_bin_3k_right">
    <inertial>
      <mass value="0.01"/>
      <inertia ixx="0.0002835" ixy="0.0" ixz="0.0" iyy="0.0002835" iyz="0.0" izz="0.000324"/>
    </inertial>
    <visual>
      <origin xyz="0.07619999999999999 0.0635 -0.0005"/>
      <geometry>
        <box size="0.15239999999999998 0.127 0.001"/>
      </geometry>
      <material name="yellow_fabric"/>
    </visual>
    <collision>
      <origin xyz="0.07619999999999999 0.0635 -0.0005"/>
      <geometry>
        <box size="0.15239999999999998 0.127 0.001"/>
      </geometry>
    </collision>
  </link>
  <link name="pod_bin_3k_top">
    <inertial>
      <mass value="0.01"/>
      <inertia ixx="0.0002835" ixy="0.0" ixz="0.0" iyy="0.0002835" iyz="0.0" izz="0.000324"/>
    </inertial>
    <visual>
      <origin xyz="0.1143 0.07619999999999999 -0.0005"/>
      <geometry>
        <box size="0.2286 0.15239999999999998 0.001"/>
      </geometry>
      <material name="yellow_fabric"/>
    </visual>
    <collision>
      <origin xyz="0.1143 0.07619999999999999 -0.0005"/>
      <geometry>
        <box size="0.2286 0.15239999999999998 0.001"/>
      </geometry>
    </collision>
  </link>
  <link name="pod_bin_3k_back">
    <inertial>
      <mass value="0.01"/>
      <inertia ixx="0.0002835" ixy="0.0" ixz="0.0" iyy="0.0002835" iyz="0.0" izz="0.000324"/>
    </inertial>
    <visual>
      <origin xyz="0.1143 0.0635 -0.0005"/>
      <geometry>
        <box size="0.2286 0.127 0.001"/>
      </geometry>
      <material name="yellow_fabric"/>
    </visual>
    <collision>
      <origin xyz="0.1143 0.0635 -0.0005"/>
      <geometry>
        <box size="0.2286 0.127 0.001"/>
      </geometry>
    </collision>
  </link>
  <link name="pod_bin_3k_flap">
    <inertial>
      <mass value="0.01"/>
      <inertia ixx="0.0002835" ixy="0.0" ixz="0.0" iyy="0.0002835" iyz="0.0" izz="0.000324"/>
    </inertial>
    <visual>
      <origin xyz="0.1143 0.0127 -0.0005"/>
      <geometry>
        <box size="0.2286 0.0254 0.001"/>
      </geometry>
      <material name="yellow_fabric"/>
    </visual>
    <collision>
      <origin xyz="0.1143 0.0127 -0.0005"/>
      <geometry>
        <box size="0.2286 0.0254 0.001"/>
      </geometry>
    </collision>
  </link>
  <joint name="pod_bin_3k_pod_bin_3k_bottom" type="fixed">
    <parent link="pod_bin_3k"/>
    <child link="pod_bin_3k_bottom"/>
  </joint>
  <joint name="pod_bin_3k_pod_bin_3k_left" type="fixed">
    <origin rpy="1.5707963267948966 0 1.5707963267948966 " xyz="0 0 0"/>
    <parent link="pod_bin_3k"/>
    <child link="pod_bin_3k_left"/>
  </joint>
  <joint name="pod_bin_3k_pod_bin_3k_right" type="fixed">
    <origin rpy="1.5707963267948966 0 1.5707963267948966 " xyz="0.2286 0 0"/>
    <parent link="pod_bin_3k"/>
    <child link="pod_bin_3k_right"/>
  </joint>
  <joint name="pod_bin_3k_pod_bin_3k_top" type="fixed">
    <origin rpy="0 0 0" xyz="0 0 0.127"/>
    <parent link="pod_bin_3k"/>
    <child link="pod_bin_3k_top"/>
  </joint>
  <joint name="pod_bin_3k_pod_bin_3k_back" type="fixed">
    <origin rpy="1.5707963267948966 0 0" xyz="0 0.15239999999999998 0"/>
    <parent link="pod_bin_3k"/>
    <child link="pod_bin_3k_back"/>
  </joint>
  <joint name="pod_bin_3k_pod_bin_3k_flap" type="fixed">
    <origin rpy="1.5707963267948966 0 0" xyz="0 0 0"/>
    <parent link="pod_bin_3k"/>
    <child link="pod_bin_3k_flap"/>
  </joint>
  <joint name="pod_shelf_k_pod_bin_3k_joint" type="fixed">
    <origin xyz="0.4572 0 0"/>
    <parent link="pod_shelf_k"/>
    <child link="pod_bin_3k"/>
  </joint>
  <link name="pod_bin_4k"/>
  <link name="pod_bin_4k_bottom">
    <inertial>
      <mass value="0.01"/>
      <inertia ixx="0.0002835" ixy="0.0" ixz="0.0" iyy="0.0002835" iyz="0.0" izz="0.000324"/>
    </inertial>
    <visual>
      <origin xyz="0.1143 0.07619999999999999 -0.0005"/>
      <geometry>
        <box size="0.2286 0.15239999999999998 0.001"/>
      </geometry>
      <material name="yellow_fabric"/>
    </visual>
    <collision>
      <origin xyz="0.1143 0.07619999999999999 -0.0005"/>
      <geometry>
        <box size="0.2286 0.15239999999999998 0.001"/>
      </geometry>
    </collision>
  </link>
  <link name="pod_bin_4k_left">
    <inertial>
      <mass value="0.01"/>
      <inertia ixx="0.0002835" ixy="0.0" ixz="0.0" iyy="0.0002835" iyz="0.0" izz="0.000324"/>
    </inertial>
    <visual>
      <origin xyz="0.07619999999999999 0.0635 -0.0005"/>
      <geometry>
        <box size="0.15239999999999998 0.127 0.001"/>
      </geometry>
      <material name="yellow_fabric"/>
    </visual>
    <collision>
      <origin xyz="0.07619999999999999 0.0635 -0.0005"/>
      <geometry>
        <box size="0.15239999999999998 0.127 0.001"/>
      </geometry>
    </collision>
  </link>
  <link name="pod_bin_4k_right">
    <inertial>
      <mass value="0.01"/>
      <inertia ixx="0.0002835" ixy="0.0" ixz="0.0" iyy="0.0002835" iyz="0.0" izz="0.000324"/>
    </inertial>
    <visual>
      <origin xyz="0.07619999999999999 0.0635 -0.0005"/>
      <geometry>
        <box size="0.15239999999999998 0.127 0.001"/>
      </geometry>
      <material name="yellow_fabric"/>
    </visual>
    <collision>
      <origin xyz="0.07619999999999999 0.0635 -0.0005"/>
      <geometry>
        <box size="0.15239999999999998 0.127 0.001"/>
      </geometry>
    </collision>
  </link>
  <link name="pod_bin_4k_top">
    <inertial>
      <mass value="0.01"/>
      <inertia ixx="0.0002835" ixy="0.0" ixz="0.0" iyy="0.0002835" iyz="0.0" izz="0.000324"/>
    </inertial>
    <visual>
      <origin xyz="0.1143 0.07619999999999999 -0.0005"/>
      <geometry>
        <box size="0.2286 0.15239999999999998 0.001"/>
      </geometry>
      <material name="yellow_fabric"/>
    </visual>
    <collision>
      <origin xyz="0.1143 0.07619999999999999 -0.0005"/>
      <geometry>
        <box size="0.2286 0.15239999999999998 0.001"/>
      </geometry>
    </collision>
  </link>
  <link name="pod_bin_4k_back">
    <inertial>
      <mass value="0.01"/>
      <inertia ixx="0.0002835" ixy="0.0" ixz="0.0" iyy="0.0002835" iyz="0.0" izz="0.000324"/>
    </inertial>
    <visual>
      <origin xyz="0.1143 0.0635 -0.0005"/>
      <geometry>
        <box size="0.2286 0.127 0.001"/>
      </geometry>
      <material name="yellow_fabric"/>
    </visual>
    <collision>
      <origin xyz="0.1143 0.0635 -0.0005"/>
      <geometry>
        <box size="0.2286 0.127 0.001"/>
      </geometry>
    </collision>
  </link>
  <link name="pod_bin_4k_flap">
    <inertial>
      <mass value="0.01"/>
      <inertia ixx="0.0002835" ixy="0.0" ixz="0.0" iyy="0.0002835" iyz="0.0" izz="0.000324"/>
    </inertial>
    <visual>
      <origin xyz="0.1143 0.0127 -0.0005"/>
      <geometry>
        <box size="0.2286 0.0254 0.001"/>
      </geometry>
      <material name="yellow_fabric"/>
    </visual>
    <collision>
      <origin xyz="0.1143 0.0127 -0.0005"/>
      <geometry>
        <box size="0.2286 0.0254 0.001"/>
      </geometry>
    </collision>
  </link>
  <joint name="pod_bin_4k_pod_bin_4k_bottom" type="fixed">
    <parent link="pod_bin_4k"/>
    <child link="pod_bin_4k_bottom"/>
  </joint>
  <joint name="pod_bin_4k_pod_bin_4k_left" type="fixed">
    <origin rpy="1.5707963267948966 0 1.5707963267948966 " xyz="0 0 0"/>
    <parent link="pod_bin_4k"/>
    <child link="pod_bin_4k_left"/>
  </joint>
  <joint name="pod_bin_4k_pod_bin_4k_right" type="fixed">
    <origin rpy="1.5707963267948966 0 1.5707963267948966 " xyz="0.2286 0 0"/>
    <parent link="pod_bin_4k"/>
    <child link="pod_bin_4k_right"/>
  </joint>
  <joint name="pod_bin_4k_pod_bin_4k_top" type="fixed">
    <origin rpy="0 0 0" xyz="0 0 0.127"/>
    <parent link="pod_bin_4k"/>
    <child link="pod_bin_4k_top"/>
  </joint>
  <joint name="pod_bin_4k_pod_bin_4k_back" type="fixed">
    <origin rpy="1.5707963267948966 0 0" xyz="0 0.15239999999999998 0"/>
    <parent link="pod_bin_4k"/>
    <child link="pod_bin_4k_back"/>
  </joint>
  <joint name="pod_bin_4k_pod_bin_4k_flap" type="fixed">
    <origin rpy="1.5707963267948966 0 0" xyz="0 0 0"/>
    <parent link="pod_bin_4k"/>
    <child link="pod_bin_4k_flap"/>
  </joint>
  <joint name="pod_shelf_k_pod_bin_4k_joint" type="fixed">
    <origin xyz="0.6858 0 0"/>
    <parent link="pod_shelf_k"/>
    <child link="pod_bin_4k"/>
  </joint>
  <joint name="pod_fabric_base_pod_shelf_k_joint" type="fixed">
    <origin xyz="0 0 1.6700499999999998"/>
    <parent link="pod_fabric_base"/>
    <child link="pod_shelf_k"/>
  </joint>
  <link name="pod_shelf_l"/>
  <link name="pod_bin_1l"/>
  <link name="pod_bin_1l_bottom">
    <inertial>
      <mass value="0.01"/>
      <inertia ixx="0.0002835" ixy="0.0" ixz="0.0" iyy="0.0002835" iyz="0.0" izz="0.000324"/>
    </inertial>
    <visual>
      <origin xyz="0.1143 0.07619999999999999 -0.0005"/>
      <geometry>
        <box size="0.2286 0.15239999999999998 0.001"/>
      </geometry>
      <material name="yellow_fabric"/>
    </visual>
    <collision>
      <origin xyz="0.1143 0.07619999999999999 -0.0005"/>
      <geometry>
        <box size="0.2286 0.15239999999999998 0.001"/>
      </geometry>
    </collision>
  </link>
  <link name="pod_bin_1l_left">
    <inertial>
      <mass value="0.01"/>
      <inertia ixx="0.0002835" ixy="0.0" ixz="0.0" iyy="0.0002835" iyz="0.0" izz="0.000324"/>
    </inertial>
    <visual>
      <origin xyz="0.07619999999999999 0.07619999999999999 -0.0005"/>
      <geometry>
        <box size="0.15239999999999998 0.15239999999999998 0.001"/>
      </geometry>
      <material name="yellow_fabric"/>
    </visual>
    <collision>
      <origin xyz="0.07619999999999999 0.07619999999999999 -0.0005"/>
      <geometry>
        <box size="0.15239999999999998 0.15239999999999998 0.001"/>
      </geometry>
    </collision>
  </link>
  <link name="pod_bin_1l_right">
    <inertial>
      <mass value="0.01"/>
      <inertia ixx="0.0002835" ixy="0.0" ixz="0.0" iyy="0.0002835" iyz="0.0" izz="0.000324"/>
    </inertial>
    <visual>
      <origin xyz="0.07619999999999999 0.07619999999999999 -0.0005"/>
      <geometry>
        <box size="0.15239999999999998 0.15239999999999998 0.001"/>
      </geometry>
      <material name="yellow_fabric"/>
    </visual>
    <collision>
      <origin xyz="0.07619999999999999 0.07619999999999999 -0.0005"/>
      <geometry>
        <box size="0.15239999999999998 0.15239999999999998 0.001"/>
      </geometry>
    </collision>
  </link>
  <link name="pod_bin_1l_top">
    <inertial>
      <mass value="0.01"/>
      <inertia ixx="0.0002835" ixy="0.0" ixz="0.0" iyy="0.0002835" iyz="0.0" izz="0.000324"/>
    </inertial>
    <visual>
      <origin xyz="0.1143 0.07619999999999999 -0.0005"/>
      <geometry>
        <box size="0.2286 0.15239999999999998 0.001"/>
      </geometry>
      <material name="yellow_fabric"/>
    </visual>
    <collision>
      <origin xyz="0.1143 0.07619999999999999 -0.0005"/>
      <geometry>
        <box size="0.2286 0.15239999999999998 0.001"/>
      </geometry>
    </collision>
  </link>
  <link name="pod_bin_1l_back">
    <inertial>
      <mass value="0.01"/>
      <inertia ixx="0.0002835" ixy="0.0" ixz="0.0" iyy="0.0002835" iyz="0.0" izz="0.000324"/>
    </inertial>
    <visual>
      <origin xyz="0.1143 0.07619999999999999 -0.0005"/>
      <geometry>
        <box size="0.2286 0.15239999999999998 0.001"/>
      </geometry>
      <material name="yellow_fabric"/>
    </visual>
    <collision>
      <origin xyz="0.1143 0.07619999999999999 -0.0005"/>
      <geometry>
        <box size="0.2286 0.15239999999999998 0.001"/>
      </geometry>
    </collision>
  </link>
  <link name="pod_bin_1l_flap">
    <inertial>
      <mass value="0.01"/>
      <inertia ixx="0.0002835" ixy="0.0" ixz="0.0" iyy="0.0002835" iyz="0.0" izz="0.000324"/>
    </inertial>
    <visual>
      <origin xyz="0.1143 0.0127 -0.0005"/>
      <geometry>
        <box size="0.2286 0.0254 0.001"/>
      </geometry>
      <material name="yellow_fabric"/>
    </visual>
    <collision>
      <origin xyz="0.1143 0.0127 -0.0005"/>
      <geometry>
        <box size="0.2286 0.0254 0.001"/>
      </geometry>
    </collision>
  </link>
  <joint name="pod_bin_1l_pod_bin_1l_bottom" type="fixed">
    <parent link="pod_bin_1l"/>
    <child link="pod_bin_1l_bottom"/>
  </joint>
  <joint name="pod_bin_1l_pod_bin_1l_left" type="fixed">
    <origin rpy="1.5707963267948966 0 1.5707963267948966 " xyz="0 0 0"/>
    <parent link="pod_bin_1l"/>
    <child link="pod_bin_1l_left"/>
  </joint>
  <joint name="pod_bin_1l_pod_bin_1l_right" type="fixed">
    <origin rpy="1.5707963267948966 0 1.5707963267948966 " xyz="0.2286 0 0"/>
    <parent link="pod_bin_1l"/>
    <child link="pod_bin_1l_right"/>
  </joint>
  <joint name="pod_bin_1l_pod_bin_1l_top" type="fixed">
    <origin rpy="0 0 0" xyz="0 0 0.15239999999999998"/>
    <parent link="pod_bin_1l"/>
    <child link="pod_bin_1l_top"/>
  </joint>
  <joint name="pod_bin_1l_pod_bin_1l_back" type="fixed">
    <origin rpy="1.5707963267948966 0 0" xyz="0 0.15239999999999998 0"/>
    <parent link="pod_bin_1l"/>
    <child link="pod_bin_1l_back"/>
  </joint>
  <joint name="pod_bin_1l_pod_bin_1l_flap" type="fixed">
    <origin rpy="1.5707963267948966 0 0" xyz="0 0 0"/>
    <parent link="pod_bin_1l"/>
    <child link="pod_bin_1l_flap"/>
  </joint>
  <joint name="pod_shelf_l_pod_bin_1l_joint" type="fixed">
    <origin xyz="0.0 0 0"/>
    <parent link="pod_shelf_l"/>
    <child link="pod_bin_1l"/>
  </joint>
  <link name="pod_bin_2l"/>
  <link name="pod_bin_2l_bottom">
    <inertial>
      <mass value="0.01"/>
      <inertia ixx="0.0002835" ixy="0.0" ixz="0.0" iyy="0.0002835" iyz="0.0" izz="0.000324"/>
    </inertial>
    <visual>
      <origin xyz="0.1143 0.07619999999999999 -0.0005"/>
      <geometry>
        <box size="0.2286 0.15239999999999998 0.001"/>
      </geometry>
      <material name="yellow_fabric"/>
    </visual>
    <collision>
      <origin xyz="0.1143 0.07619999999999999 -0.0005"/>
      <geometry>
        <box size="0.2286 0.15239999999999998 0.001"/>
      </geometry>
    </collision>
  </link>
  <link name="pod_bin_2l_left">
    <inertial>
      <mass value="0.01"/>
      <inertia ixx="0.0002835" ixy="0.0" ixz="0.0" iyy="0.0002835" iyz="0.0" izz="0.000324"/>
    </inertial>
    <visual>
      <origin xyz="0.07619999999999999 0.07619999999999999 -0.0005"/>
      <geometry>
        <box size="0.15239999999999998 0.15239999999999998 0.001"/>
      </geometry>
      <material name="yellow_fabric"/>
    </visual>
    <collision>
      <origin xyz="0.07619999999999999 0.07619999999999999 -0.0005"/>
      <geometry>
        <box size="0.15239999999999998 0.15239999999999998 0.001"/>
      </geometry>
    </collision>
  </link>
  <link name="pod_bin_2l_right">
    <inertial>
      <mass value="0.01"/>
      <inertia ixx="0.0002835" ixy="0.0" ixz="0.0" iyy="0.0002835" iyz="0.0" izz="0.000324"/>
    </inertial>
    <visual>
      <origin xyz="0.07619999999999999 0.07619999999999999 -0.0005"/>
      <geometry>
        <box size="0.15239999999999998 0.15239999999999998 0.001"/>
      </geometry>
      <material name="yellow_fabric"/>
    </visual>
    <collision>
      <origin xyz="0.07619999999999999 0.07619999999999999 -0.0005"/>
      <geometry>
        <box size="0.15239999999999998 0.15239999999999998 0.001"/>
      </geometry>
    </collision>
  </link>
  <link name="pod_bin_2l_top">
    <inertial>
      <mass value="0.01"/>
      <inertia ixx="0.0002835" ixy="0.0" ixz="0.0" iyy="0.0002835" iyz="0.0" izz="0.000324"/>
    </inertial>
    <visual>
      <origin xyz="0.1143 0.07619999999999999 -0.0005"/>
      <geometry>
        <box size="0.2286 0.15239999999999998 0.001"/>
      </geometry>
      <material name="yellow_fabric"/>
    </visual>
    <collision>
      <origin xyz="0.1143 0.07619999999999999 -0.0005"/>
      <geometry>
        <box size="0.2286 0.15239999999999998 0.001"/>
      </geometry>
    </collision>
  </link>
  <link name="pod_bin_2l_back">
    <inertial>
      <mass value="0.01"/>
      <inertia ixx="0.0002835" ixy="0.0" ixz="0.0" iyy="0.0002835" iyz="0.0" izz="0.000324"/>
    </inertial>
    <visual>
      <origin xyz="0.1143 0.07619999999999999 -0.0005"/>
      <geometry>
        <box size="0.2286 0.15239999999999998 0.001"/>
      </geometry>
      <material name="yellow_fabric"/>
    </visual>
    <collision>
      <origin xyz="0.1143 0.07619999999999999 -0.0005"/>
      <geometry>
        <box size="0.2286 0.15239999999999998 0.001"/>
      </geometry>
    </collision>
  </link>
  <link name="pod_bin_2l_flap">
    <inertial>
      <mass value="0.01"/>
      <inertia ixx="0.0002835" ixy="0.0" ixz="0.0" iyy="0.0002835" iyz="0.0" izz="0.000324"/>
    </inertial>
    <visual>
      <origin xyz="0.1143 0.0127 -0.0005"/>
      <geometry>
        <box size="0.2286 0.0254 0.001"/>
      </geometry>
      <material name="yellow_fabric"/>
    </visual>
    <collision>
      <origin xyz="0.1143 0.0127 -0.0005"/>
      <geometry>
        <box size="0.2286 0.0254 0.001"/>
      </geometry>
    </collision>
  </link>
  <joint name="pod_bin_2l_pod_bin_2l_bottom" type="fixed">
    <parent link="pod_bin_2l"/>
    <child link="pod_bin_2l_bottom"/>
  </joint>
  <joint name="pod_bin_2l_pod_bin_2l_left" type="fixed">
    <origin rpy="1.5707963267948966 0 1.5707963267948966 " xyz="0 0 0"/>
    <parent link="pod_bin_2l"/>
    <child link="pod_bin_2l_left"/>
  </joint>
  <joint name="pod_bin_2l_pod_bin_2l_right" type="fixed">
    <origin rpy="1.5707963267948966 0 1.5707963267948966 " xyz="0.2286 0 0"/>
    <parent link="pod_bin_2l"/>
    <child link="pod_bin_2l_right"/>
  </joint>
  <joint name="pod_bin_2l_pod_bin_2l_top" type="fixed">
    <origin rpy="0 0 0" xyz="0 0 0.15239999999999998"/>
    <parent link="pod_bin_2l"/>
    <child link="pod_bin_2l_top"/>
  </joint>
  <joint name="pod_bin_2l_pod_bin_2l_back" type="fixed">
    <origin rpy="1.5707963267948966 0 0" xyz="0 0.15239999999999998 0"/>
    <parent link="pod_bin_2l"/>
    <child link="pod_bin_2l_back"/>
  </joint>
  <joint name="pod_bin_2l_pod_bin_2l_flap" type="fixed">
    <origin rpy="1.5707963267948966 0 0" xyz="0 0 0"/>
    <parent link="pod_bin_2l"/>
    <child link="pod_bin_2l_flap"/>
  </joint>
  <joint name="pod_shelf_l_pod_bin_2l_joint" type="fixed">
    <origin xyz="0.2286 0 0"/>
    <parent link="pod_shelf_l"/>
    <child link="pod_bin_2l"/>
  </joint>
  <link name="pod_bin_3l"/>
  <link name="pod_bin_3l_bottom">
    <inertial>
      <mass value="0.01"/>
      <inertia ixx="0.0002835" ixy="0.0" ixz="0.0" iyy="0.0002835" iyz="0.0" izz="0.000324"/>
    </inertial>
    <visual>
      <origin xyz="0.1143 0.07619999999999999 -0.0005"/>
      <geometry>
        <box size="0.2286 0.15239999999999998 0.001"/>
      </geometry>
      <material name="yellow_fabric"/>
    </visual>
    <collision>
      <origin xyz="0.1143 0.07619999999999999 -0.0005"/>
      <geometry>
        <box size="0.2286 0.15239999999999998 0.001"/>
      </geometry>
    </collision>
  </link>
  <link name="pod_bin_3l_left">
    <inertial>
      <mass value="0.01"/>
      <inertia ixx="0.0002835" ixy="0.0" ixz="0.0" iyy="0.0002835" iyz="0.0" izz="0.000324"/>
    </inertial>
    <visual>
      <origin xyz="0.07619999999999999 0.07619999999999999 -0.0005"/>
      <geometry>
        <box size="0.15239999999999998 0.15239999999999998 0.001"/>
      </geometry>
      <material name="yellow_fabric"/>
    </visual>
    <collision>
      <origin xyz="0.07619999999999999 0.07619999999999999 -0.0005"/>
      <geometry>
        <box size="0.15239999999999998 0.15239999999999998 0.001"/>
      </geometry>
    </collision>
  </link>
  <link name="pod_bin_3l_right">
    <inertial>
      <mass value="0.01"/>
      <inertia ixx="0.0002835" ixy="0.0" ixz="0.0" iyy="0.0002835" iyz="0.0" izz="0.000324"/>
    </inertial>
    <visual>
      <origin xyz="0.07619999999999999 0.07619999999999999 -0.0005"/>
      <geometry>
        <box size="0.15239999999999998 0.15239999999999998 0.001"/>
      </geometry>
      <material name="yellow_fabric"/>
    </visual>
    <collision>
      <origin xyz="0.07619999999999999 0.07619999999999999 -0.0005"/>
      <geometry>
        <box size="0.15239999999999998 0.15239999999999998 0.001"/>
      </geometry>
    </collision>
  </link>
  <link name="pod_bin_3l_top">
    <inertial>
      <mass value="0.01"/>
      <inertia ixx="0.0002835" ixy="0.0" ixz="0.0" iyy="0.0002835" iyz="0.0" izz="0.000324"/>
    </inertial>
    <visual>
      <origin xyz="0.1143 0.07619999999999999 -0.0005"/>
      <geometry>
        <box size="0.2286 0.15239999999999998 0.001"/>
      </geometry>
      <material name="yellow_fabric"/>
    </visual>
    <collision>
      <origin xyz="0.1143 0.07619999999999999 -0.0005"/>
      <geometry>
        <box size="0.2286 0.15239999999999998 0.001"/>
      </geometry>
    </collision>
  </link>
  <link name="pod_bin_3l_back">
    <inertial>
      <mass value="0.01"/>
      <inertia ixx="0.0002835" ixy="0.0" ixz="0.0" iyy="0.0002835" iyz="0.0" izz="0.000324"/>
    </inertial>
    <visual>
      <origin xyz="0.1143 0.07619999999999999 -0.0005"/>
      <geometry>
        <box size="0.2286 0.15239999999999998 0.001"/>
      </geometry>
      <material name="yellow_fabric"/>
    </visual>
    <collision>
      <origin xyz="0.1143 0.07619999999999999 -0.0005"/>
      <geometry>
        <box size="0.2286 0.15239999999999998 0.001"/>
      </geometry>
    </collision>
  </link>
  <link name="pod_bin_3l_flap">
    <inertial>
      <mass value="0.01"/>
      <inertia ixx="0.0002835" ixy="0.0" ixz="0.0" iyy="0.0002835" iyz="0.0" izz="0.000324"/>
    </inertial>
    <visual>
      <origin xyz="0.1143 0.0127 -0.0005"/>
      <geometry>
        <box size="0.2286 0.0254 0.001"/>
      </geometry>
      <material name="yellow_fabric"/>
    </visual>
    <collision>
      <origin xyz="0.1143 0.0127 -0.0005"/>
      <geometry>
        <box size="0.2286 0.0254 0.001"/>
      </geometry>
    </collision>
  </link>
  <joint name="pod_bin_3l_pod_bin_3l_bottom" type="fixed">
    <parent link="pod_bin_3l"/>
    <child link="pod_bin_3l_bottom"/>
  </joint>
  <joint name="pod_bin_3l_pod_bin_3l_left" type="fixed">
    <origin rpy="1.5707963267948966 0 1.5707963267948966 " xyz="0 0 0"/>
    <parent link="pod_bin_3l"/>
    <child link="pod_bin_3l_left"/>
  </joint>
  <joint name="pod_bin_3l_pod_bin_3l_right" type="fixed">
    <origin rpy="1.5707963267948966 0 1.5707963267948966 " xyz="0.2286 0 0"/>
    <parent link="pod_bin_3l"/>
    <child link="pod_bin_3l_right"/>
  </joint>
  <joint name="pod_bin_3l_pod_bin_3l_top" type="fixed">
    <origin rpy="0 0 0" xyz="0 0 0.15239999999999998"/>
    <parent link="pod_bin_3l"/>
    <child link="pod_bin_3l_top"/>
  </joint>
  <joint name="pod_bin_3l_pod_bin_3l_back" type="fixed">
    <origin rpy="1.5707963267948966 0 0" xyz="0 0.15239999999999998 0"/>
    <parent link="pod_bin_3l"/>
    <child link="pod_bin_3l_back"/>
  </joint>
  <joint name="pod_bin_3l_pod_bin_3l_flap" type="fixed">
    <origin rpy="1.5707963267948966 0 0" xyz="0 0 0"/>
    <parent link="pod_bin_3l"/>
    <child link="pod_bin_3l_flap"/>
  </joint>
  <joint name="pod_shelf_l_pod_bin_3l_joint" type="fixed">
    <origin xyz="0.4572 0 0"/>
    <parent link="pod_shelf_l"/>
    <child link="pod_bin_3l"/>
  </joint>
  <link name="pod_bin_4l"/>
  <link name="pod_bin_4l_bottom">
    <inertial>
      <mass value="0.01"/>
      <inertia ixx="0.0002835" ixy="0.0" ixz="0.0" iyy="0.0002835" iyz="0.0" izz="0.000324"/>
    </inertial>
    <visual>
      <origin xyz="0.1143 0.07619999999999999 -0.0005"/>
      <geometry>
        <box size="0.2286 0.15239999999999998 0.001"/>
      </geometry>
      <material name="yellow_fabric"/>
    </visual>
    <collision>
      <origin xyz="0.1143 0.07619999999999999 -0.0005"/>
      <geometry>
        <box size="0.2286 0.15239999999999998 0.001"/>
      </geometry>
    </collision>
  </link>
  <link name="pod_bin_4l_left">
    <inertial>
      <mass value="0.01"/>
      <inertia ixx="0.0002835" ixy="0.0" ixz="0.0" iyy="0.0002835" iyz="0.0" izz="0.000324"/>
    </inertial>
    <visual>
      <origin xyz="0.07619999999999999 0.07619999999999999 -0.0005"/>
      <geometry>
        <box size="0.15239999999999998 0.15239999999999998 0.001"/>
      </geometry>
      <material name="yellow_fabric"/>
    </visual>
    <collision>
      <origin xyz="0.07619999999999999 0.07619999999999999 -0.0005"/>
      <geometry>
        <box size="0.15239999999999998 0.15239999999999998 0.001"/>
      </geometry>
    </collision>
  </link>
  <link name="pod_bin_4l_right">
    <inertial>
      <mass value="0.01"/>
      <inertia ixx="0.0002835" ixy="0.0" ixz="0.0" iyy="0.0002835" iyz="0.0" izz="0.000324"/>
    </inertial>
    <visual>
      <origin xyz="0.07619999999999999 0.07619999999999999 -0.0005"/>
      <geometry>
        <box size="0.15239999999999998 0.15239999999999998 0.001"/>
      </geometry>
      <material name="yellow_fabric"/>
    </visual>
    <collision>
      <origin xyz="0.07619999999999999 0.07619999999999999 -0.0005"/>
      <geometry>
        <box size="0.15239999999999998 0.15239999999999998 0.001"/>
      </geometry>
    </collision>
  </link>
  <link name="pod_bin_4l_top">
    <inertial>
      <mass value="0.01"/>
      <inertia ixx="0.0002835" ixy="0.0" ixz="0.0" iyy="0.0002835" iyz="0.0" izz="0.000324"/>
    </inertial>
    <visual>
      <origin xyz="0.1143 0.07619999999999999 -0.0005"/>
      <geometry>
        <box size="0.2286 0.15239999999999998 0.001"/>
      </geometry>
      <material name="yellow_fabric"/>
    </visual>
    <collision>
      <origin xyz="0.1143 0.07619999999999999 -0.0005"/>
      <geometry>
        <box size="0.2286 0.15239999999999998 0.001"/>
      </geometry>
    </collision>
  </link>
  <link name="pod_bin_4l_back">
    <inertial>
      <mass value="0.01"/>
      <inertia ixx="0.0002835" ixy="0.0" ixz="0.0" iyy="0.0002835" iyz="0.0" izz="0.000324"/>
    </inertial>
    <visual>
      <origin xyz="0.1143 0.07619999999999999 -0.0005"/>
      <geometry>
        <box size="0.2286 0.15239999999999998 0.001"/>
      </geometry>
      <material name="yellow_fabric"/>
    </visual>
    <collision>
      <origin xyz="0.1143 0.07619999999999999 -0.0005"/>
      <geometry>
        <box size="0.2286 0.15239999999999998 0.001"/>
      </geometry>
    </collision>
  </link>
  <link name="pod_bin_4l_flap">
    <inertial>
      <mass value="0.01"/>
      <inertia ixx="0.0002835" ixy="0.0" ixz="0.0" iyy="0.0002835" iyz="0.0" izz="0.000324"/>
    </inertial>
    <visual>
      <origin xyz="0.1143 0.0127 -0.0005"/>
      <geometry>
        <box size="0.2286 0.0254 0.001"/>
      </geometry>
      <material name="yellow_fabric"/>
    </visual>
    <collision>
      <origin xyz="0.1143 0.0127 -0.0005"/>
      <geometry>
        <box size="0.2286 0.0254 0.001"/>
      </geometry>
    </collision>
  </link>
  <joint name="pod_bin_4l_pod_bin_4l_bottom" type="fixed">
    <parent link="pod_bin_4l"/>
    <child link="pod_bin_4l_bottom"/>
  </joint>
  <joint name="pod_bin_4l_pod_bin_4l_left" type="fixed">
    <origin rpy="1.5707963267948966 0 1.5707963267948966 " xyz="0 0 0"/>
    <parent link="pod_bin_4l"/>
    <child link="pod_bin_4l_left"/>
  </joint>
  <joint name="pod_bin_4l_pod_bin_4l_right" type="fixed">
    <origin rpy="1.5707963267948966 0 1.5707963267948966 " xyz="0.2286 0 0"/>
    <parent link="pod_bin_4l"/>
    <child link="pod_bin_4l_right"/>
  </joint>
  <joint name="pod_bin_4l_pod_bin_4l_top" type="fixed">
    <origin rpy="0 0 0" xyz="0 0 0.15239999999999998"/>
    <parent link="pod_bin_4l"/>
    <child link="pod_bin_4l_top"/>
  </joint>
  <joint name="pod_bin_4l_pod_bin_4l_back" type="fixed">
    <origin rpy="1.5707963267948966 0 0" xyz="0 0.15239999999999998 0"/>
    <parent link="pod_bin_4l"/>
    <child link="pod_bin_4l_back"/>
  </joint>
  <joint name="pod_bin_4l_pod_bin_4l_flap" type="fixed">
    <origin rpy="1.5707963267948966 0 0" xyz="0 0 0"/>
    <parent link="pod_bin_4l"/>
    <child link="pod_bin_4l_flap"/>
  </joint>
  <joint name="pod_shelf_l_pod_bin_4l_joint" type="fixed">
    <origin xyz="0.6858 0 0"/>
    <parent link="pod_shelf_l"/>
    <child link="pod_bin_4l"/>
  </joint>
  <joint name="pod_fabric_base_pod_shelf_l_joint" type="fixed">
    <origin xyz="0 0 1.7970499999999998"/>
    <parent link="pod_fabric_base"/>
    <child link="pod_shelf_l"/>
  </joint>
  <link name="pod_shelf_m"/>
  <link name="pod_bin_1m"/>
  <link name="pod_bin_1m_bottom">
    <inertial>
      <mass value="0.01"/>
      <inertia ixx="0.0002835" ixy="0.0" ixz="0.0" iyy="0.0002835" iyz="0.0" izz="0.000324"/>
    </inertial>
    <visual>
      <origin xyz="0.1143 0.07619999999999999 -0.0005"/>
      <geometry>
        <box size="0.2286 0.15239999999999998 0.001"/>
      </geometry>
      <material name="yellow_fabric"/>
    </visual>
    <collision>
      <origin xyz="0.1143 0.07619999999999999 -0.0005"/>
      <geometry>
        <box size="0.2286 0.15239999999999998 0.001"/>
      </geometry>
    </collision>
  </link>
  <link name="pod_bin_1m_left">
    <inertial>
      <mass value="0.01"/>
      <inertia ixx="0.0002835" ixy="0.0" ixz="0.0" iyy="0.0002835" iyz="0.0" izz="0.000324"/>
    </inertial>
    <visual>
      <origin xyz="0.07619999999999999 0.1397 -0.0005"/>
      <geometry>
        <box size="0.15239999999999998 0.2794 0.001"/>
      </geometry>
      <material name="yellow_fabric"/>
    </visual>
    <collision>
      <origin xyz="0.07619999999999999 0.1397 -0.0005"/>
      <geometry>
        <box size="0.15239999999999998 0.2794 0.001"/>
      </geometry>
    </collision>
  </link>
  <link name="pod_bin_1m_right">
    <inertial>
      <mass value="0.01"/>
      <inertia ixx="0.0002835" ixy="0.0" ixz="0.0" iyy="0.0002835" iyz="0.0" izz="0.000324"/>
    </inertial>
    <visual>
      <origin xyz="0.07619999999999999 0.1397 -0.0005"/>
      <geometry>
        <box size="0.15239999999999998 0.2794 0.001"/>
      </geometry>
      <material name="yellow_fabric"/>
    </visual>
    <collision>
      <origin xyz="0.07619999999999999 0.1397 -0.0005"/>
      <geometry>
        <box size="0.15239999999999998 0.2794 0.001"/>
      </geometry>
    </collision>
  </link>
  <link name="pod_bin_1m_top">
    <inertial>
      <mass value="0.01"/>
      <inertia ixx="0.0002835" ixy="0.0" ixz="0.0" iyy="0.0002835" iyz="0.0" izz="0.000324"/>
    </inertial>
    <visual>
      <origin xyz="0.1143 0.07619999999999999 -0.0005"/>
      <geometry>
        <box size="0.2286 0.15239999999999998 0.001"/>
      </geometry>
      <material name="yellow_fabric"/>
    </visual>
    <collision>
      <origin xyz="0.1143 0.07619999999999999 -0.0005"/>
      <geometry>
        <box size="0.2286 0.15239999999999998 0.001"/>
      </geometry>
    </collision>
  </link>
  <link name="pod_bin_1m_back">
    <inertial>
      <mass value="0.01"/>
      <inertia ixx="0.0002835" ixy="0.0" ixz="0.0" iyy="0.0002835" iyz="0.0" izz="0.000324"/>
    </inertial>
    <visual>
      <origin xyz="0.1143 0.1397 -0.0005"/>
      <geometry>
        <box size="0.2286 0.2794 0.001"/>
      </geometry>
      <material name="yellow_fabric"/>
    </visual>
    <collision>
      <origin xyz="0.1143 0.1397 -0.0005"/>
      <geometry>
        <box size="0.2286 0.2794 0.001"/>
      </geometry>
    </collision>
  </link>
  <link name="pod_bin_1m_flap">
    <inertial>
      <mass value="0.01"/>
      <inertia ixx="0.0002835" ixy="0.0" ixz="0.0" iyy="0.0002835" iyz="0.0" izz="0.000324"/>
    </inertial>
    <visual>
      <origin xyz="0.1143 0.0127 -0.0005"/>
      <geometry>
        <box size="0.2286 0.0254 0.001"/>
      </geometry>
      <material name="yellow_fabric"/>
    </visual>
    <collision>
      <origin xyz="0.1143 0.0127 -0.0005"/>
      <geometry>
        <box size="0.2286 0.0254 0.001"/>
      </geometry>
    </collision>
  </link>
  <joint name="pod_bin_1m_pod_bin_1m_bottom" type="fixed">
    <parent link="pod_bin_1m"/>
    <child link="pod_bin_1m_bottom"/>
  </joint>
  <joint name="pod_bin_1m_pod_bin_1m_left" type="fixed">
    <origin rpy="1.5707963267948966 0 1.5707963267948966 " xyz="0 0 0"/>
    <parent link="pod_bin_1m"/>
    <child link="pod_bin_1m_left"/>
  </joint>
  <joint name="pod_bin_1m_pod_bin_1m_right" type="fixed">
    <origin rpy="1.5707963267948966 0 1.5707963267948966 " xyz="0.2286 0 0"/>
    <parent link="pod_bin_1m"/>
    <child link="pod_bin_1m_right"/>
  </joint>
  <joint name="pod_bin_1m_pod_bin_1m_top" type="fixed">
    <origin rpy="0 0 0" xyz="0 0 0.2794"/>
    <parent link="pod_bin_1m"/>
    <child link="pod_bin_1m_top"/>
  </joint>
  <joint name="pod_bin_1m_pod_bin_1m_back" type="fixed">
    <origin rpy="1.5707963267948966 0 0" xyz="0 0.15239999999999998 0"/>
    <parent link="pod_bin_1m"/>
    <child link="pod_bin_1m_back"/>
  </joint>
  <joint name="pod_bin_1m_pod_bin_1m_flap" type="fixed">
    <origin rpy="1.5707963267948966 0 0" xyz="0 0 0"/>
    <parent link="pod_bin_1m"/>
    <child link="pod_bin_1m_flap"/>
  </joint>
  <joint name="pod_shelf_m_pod_bin_1m_joint" type="fixed">
    <origin xyz="0.0 0 0"/>
    <parent link="pod_shelf_m"/>
    <child link="pod_bin_1m"/>
  </joint>
  <link name="pod_bin_2m"/>
  <link name="pod_bin_2m_bottom">
    <inertial>
      <mass value="0.01"/>
      <inertia ixx="0.0002835" ixy="0.0" ixz="0.0" iyy="0.0002835" iyz="0.0" izz="0.000324"/>
    </inertial>
    <visual>
      <origin xyz="0.1143 0.07619999999999999 -0.0005"/>
      <geometry>
        <box size="0.2286 0.15239999999999998 0.001"/>
      </geometry>
      <material name="yellow_fabric"/>
    </visual>
    <collision>
      <origin xyz="0.1143 0.07619999999999999 -0.0005"/>
      <geometry>
        <box size="0.2286 0.15239999999999998 0.001"/>
      </geometry>
    </collision>
  </link>
  <link name="pod_bin_2m_left">
    <inertial>
      <mass value="0.01"/>
      <inertia ixx="0.0002835" ixy="0.0" ixz="0.0" iyy="0.0002835" iyz="0.0" izz="0.000324"/>
    </inertial>
    <visual>
      <origin xyz="0.07619999999999999 0.1397 -0.0005"/>
      <geometry>
        <box size="0.15239999999999998 0.2794 0.001"/>
      </geometry>
      <material name="yellow_fabric"/>
    </visual>
    <collision>
      <origin xyz="0.07619999999999999 0.1397 -0.0005"/>
      <geometry>
        <box size="0.15239999999999998 0.2794 0.001"/>
      </geometry>
    </collision>
  </link>
  <link name="pod_bin_2m_right">
    <inertial>
      <mass value="0.01"/>
      <inertia ixx="0.0002835" ixy="0.0" ixz="0.0" iyy="0.0002835" iyz="0.0" izz="0.000324"/>
    </inertial>
    <visual>
      <origin xyz="0.07619999999999999 0.1397 -0.0005"/>
      <geometry>
        <box size="0.15239999999999998 0.2794 0.001"/>
      </geometry>
      <material name="yellow_fabric"/>
    </visual>
    <collision>
      <origin xyz="0.07619999999999999 0.1397 -0.0005"/>
      <geometry>
        <box size="0.15239999999999998 0.2794 0.001"/>
      </geometry>
    </collision>
  </link>
  <link name="pod_bin_2m_top">
    <inertial>
      <mass value="0.01"/>
      <inertia ixx="0.0002835" ixy="0.0" ixz="0.0" iyy="0.0002835" iyz="0.0" izz="0.000324"/>
    </inertial>
    <visual>
      <origin xyz="0.1143 0.07619999999999999 -0.0005"/>
      <geometry>
        <box size="0.2286 0.15239999999999998 0.001"/>
      </geometry>
      <material name="yellow_fabric"/>
    </visual>
    <collision>
      <origin xyz="0.1143 0.07619999999999999 -0.0005"/>
      <geometry>
        <box size="0.2286 0.15239999999999998 0.001"/>
      </geometry>
    </collision>
  </link>
  <link name="pod_bin_2m_back">
    <inertial>
      <mass value="0.01"/>
      <inertia ixx="0.0002835" ixy="0.0" ixz="0.0" iyy="0.0002835" iyz="0.0" izz="0.000324"/>
    </inertial>
    <visual>
      <origin xyz="0.1143 0.1397 -0.0005"/>
      <geometry>
        <box size="0.2286 0.2794 0.001"/>
      </geometry>
      <material name="yellow_fabric"/>
    </visual>
    <collision>
      <origin xyz="0.1143 0.1397 -0.0005"/>
      <geometry>
        <box size="0.2286 0.2794 0.001"/>
      </geometry>
    </collision>
  </link>
  <link name="pod_bin_2m_flap">
    <inertial>
      <mass value="0.01"/>
      <inertia ixx="0.0002835" ixy="0.0" ixz="0.0" iyy="0.0002835" iyz="0.0" izz="0.000324"/>
    </inertial>
    <visual>
      <origin xyz="0.1143 0.0127 -0.0005"/>
      <geometry>
        <box size="0.2286 0.0254 0.001"/>
      </geometry>
      <material name="yellow_fabric"/>
    </visual>
    <collision>
      <origin xyz="0.1143 0.0127 -0.0005"/>
      <geometry>
        <box size="0.2286 0.0254 0.001"/>
      </geometry>
    </collision>
  </link>
  <joint name="pod_bin_2m_pod_bin_2m_bottom" type="fixed">
    <parent link="pod_bin_2m"/>
    <child link="pod_bin_2m_bottom"/>
  </joint>
  <joint name="pod_bin_2m_pod_bin_2m_left" type="fixed">
    <origin rpy="1.5707963267948966 0 1.5707963267948966 " xyz="0 0 0"/>
    <parent link="pod_bin_2m"/>
    <child link="pod_bin_2m_left"/>
  </joint>
  <joint name="pod_bin_2m_pod_bin_2m_right" type="fixed">
    <origin rpy="1.5707963267948966 0 1.5707963267948966 " xyz="0.2286 0 0"/>
    <parent link="pod_bin_2m"/>
    <child link="pod_bin_2m_right"/>
  </joint>
  <joint name="pod_bin_2m_pod_bin_2m_top" type="fixed">
    <origin rpy="0 0 0" xyz="0 0 0.2794"/>
    <parent link="pod_bin_2m"/>
    <child link="pod_bin_2m_top"/>
  </joint>
  <joint name="pod_bin_2m_pod_bin_2m_back" type="fixed">
    <origin rpy="1.5707963267948966 0 0" xyz="0 0.15239999999999998 0"/>
    <parent link="pod_bin_2m"/>
    <child link="pod_bin_2m_back"/>
  </joint>
  <joint name="pod_bin_2m_pod_bin_2m_flap" type="fixed">
    <origin rpy="1.5707963267948966 0 0" xyz="0 0 0"/>
    <parent link="pod_bin_2m"/>
    <child link="pod_bin_2m_flap"/>
  </joint>
  <joint name="pod_shelf_m_pod_bin_2m_joint" type="fixed">
    <origin xyz="0.2286 0 0"/>
    <parent link="pod_shelf_m"/>
    <child link="pod_bin_2m"/>
  </joint>
  <link name="pod_bin_3m"/>
  <link name="pod_bin_3m_bottom">
    <inertial>
      <mass value="0.01"/>
      <inertia ixx="0.0002835" ixy="0.0" ixz="0.0" iyy="0.0002835" iyz="0.0" izz="0.000324"/>
    </inertial>
    <visual>
      <origin xyz="0.1143 0.07619999999999999 -0.0005"/>
      <geometry>
        <box size="0.2286 0.15239999999999998 0.001"/>
      </geometry>
      <material name="yellow_fabric"/>
    </visual>
    <collision>
      <origin xyz="0.1143 0.07619999999999999 -0.0005"/>
      <geometry>
        <box size="0.2286 0.15239999999999998 0.001"/>
      </geometry>
    </collision>
  </link>
  <link name="pod_bin_3m_left">
    <inertial>
      <mass value="0.01"/>
      <inertia ixx="0.0002835" ixy="0.0" ixz="0.0" iyy="0.0002835" iyz="0.0" izz="0.000324"/>
    </inertial>
    <visual>
      <origin xyz="0.07619999999999999 0.1397 -0.0005"/>
      <geometry>
        <box size="0.15239999999999998 0.2794 0.001"/>
      </geometry>
      <material name="yellow_fabric"/>
    </visual>
    <collision>
      <origin xyz="0.07619999999999999 0.1397 -0.0005"/>
      <geometry>
        <box size="0.15239999999999998 0.2794 0.001"/>
      </geometry>
    </collision>
  </link>
  <link name="pod_bin_3m_right">
    <inertial>
      <mass value="0.01"/>
      <inertia ixx="0.0002835" ixy="0.0" ixz="0.0" iyy="0.0002835" iyz="0.0" izz="0.000324"/>
    </inertial>
    <visual>
      <origin xyz="0.07619999999999999 0.1397 -0.0005"/>
      <geometry>
        <box size="0.15239999999999998 0.2794 0.001"/>
      </geometry>
      <material name="yellow_fabric"/>
    </visual>
    <collision>
      <origin xyz="0.07619999999999999 0.1397 -0.0005"/>
      <geometry>
        <box size="0.15239999999999998 0.2794 0.001"/>
      </geometry>
    </collision>
  </link>
  <link name="pod_bin_3m_top">
    <inertial>
      <mass value="0.01"/>
      <inertia ixx="0.0002835" ixy="0.0" ixz="0.0" iyy="0.0002835" iyz="0.0" izz="0.000324"/>
    </inertial>
    <visual>
      <origin xyz="0.1143 0.07619999999999999 -0.0005"/>
      <geometry>
        <box size="0.2286 0.15239999999999998 0.001"/>
      </geometry>
      <material name="yellow_fabric"/>
    </visual>
    <collision>
      <origin xyz="0.1143 0.07619999999999999 -0.0005"/>
      <geometry>
        <box size="0.2286 0.15239999999999998 0.001"/>
      </geometry>
    </collision>
  </link>
  <link name="pod_bin_3m_back">
    <inertial>
      <mass value="0.01"/>
      <inertia ixx="0.0002835" ixy="0.0" ixz="0.0" iyy="0.0002835" iyz="0.0" izz="0.000324"/>
    </inertial>
    <visual>
      <origin xyz="0.1143 0.1397 -0.0005"/>
      <geometry>
        <box size="0.2286 0.2794 0.001"/>
      </geometry>
      <material name="yellow_fabric"/>
    </visual>
    <collision>
      <origin xyz="0.1143 0.1397 -0.0005"/>
      <geometry>
        <box size="0.2286 0.2794 0.001"/>
      </geometry>
    </collision>
  </link>
  <link name="pod_bin_3m_flap">
    <inertial>
      <mass value="0.01"/>
      <inertia ixx="0.0002835" ixy="0.0" ixz="0.0" iyy="0.0002835" iyz="0.0" izz="0.000324"/>
    </inertial>
    <visual>
      <origin xyz="0.1143 0.0127 -0.0005"/>
      <geometry>
        <box size="0.2286 0.0254 0.001"/>
      </geometry>
      <material name="yellow_fabric"/>
    </visual>
    <collision>
      <origin xyz="0.1143 0.0127 -0.0005"/>
      <geometry>
        <box size="0.2286 0.0254 0.001"/>
      </geometry>
    </collision>
  </link>
  <joint name="pod_bin_3m_pod_bin_3m_bottom" type="fixed">
    <parent link="pod_bin_3m"/>
    <child link="pod_bin_3m_bottom"/>
  </joint>
  <joint name="pod_bin_3m_pod_bin_3m_left" type="fixed">
    <origin rpy="1.5707963267948966 0 1.5707963267948966 " xyz="0 0 0"/>
    <parent link="pod_bin_3m"/>
    <child link="pod_bin_3m_left"/>
  </joint>
  <joint name="pod_bin_3m_pod_bin_3m_right" type="fixed">
    <origin rpy="1.5707963267948966 0 1.5707963267948966 " xyz="0.2286 0 0"/>
    <parent link="pod_bin_3m"/>
    <child link="pod_bin_3m_right"/>
  </joint>
  <joint name="pod_bin_3m_pod_bin_3m_top" type="fixed">
    <origin rpy="0 0 0" xyz="0 0 0.2794"/>
    <parent link="pod_bin_3m"/>
    <child link="pod_bin_3m_top"/>
  </joint>
  <joint name="pod_bin_3m_pod_bin_3m_back" type="fixed">
    <origin rpy="1.5707963267948966 0 0" xyz="0 0.15239999999999998 0"/>
    <parent link="pod_bin_3m"/>
    <child link="pod_bin_3m_back"/>
  </joint>
  <joint name="pod_bin_3m_pod_bin_3m_flap" type="fixed">
    <origin rpy="1.5707963267948966 0 0" xyz="0 0 0"/>
    <parent link="pod_bin_3m"/>
    <child link="pod_bin_3m_flap"/>
  </joint>
  <joint name="pod_shelf_m_pod_bin_3m_joint" type="fixed">
    <origin xyz="0.4572 0 0"/>
    <parent link="pod_shelf_m"/>
    <child link="pod_bin_3m"/>
  </joint>
  <link name="pod_bin_4m"/>
  <link name="pod_bin_4m_bottom">
    <inertial>
      <mass value="0.01"/>
      <inertia ixx="0.0002835" ixy="0.0" ixz="0.0" iyy="0.0002835" iyz="0.0" izz="0.000324"/>
    </inertial>
    <visual>
      <origin xyz="0.1143 0.07619999999999999 -0.0005"/>
      <geometry>
        <box size="0.2286 0.15239999999999998 0.001"/>
      </geometry>
      <material name="yellow_fabric"/>
    </visual>
    <collision>
      <origin xyz="0.1143 0.07619999999999999 -0.0005"/>
      <geometry>
        <box size="0.2286 0.15239999999999998 0.001"/>
      </geometry>
    </collision>
  </link>
  <link name="pod_bin_4m_left">
    <inertial>
      <mass value="0.01"/>
      <inertia ixx="0.0002835" ixy="0.0" ixz="0.0" iyy="0.0002835" iyz="0.0" izz="0.000324"/>
    </inertial>
    <visual>
      <origin xyz="0.07619999999999999 0.1397 -0.0005"/>
      <geometry>
        <box size="0.15239999999999998 0.2794 0.001"/>
      </geometry>
      <material name="yellow_fabric"/>
    </visual>
    <collision>
      <origin xyz="0.07619999999999999 0.1397 -0.0005"/>
      <geometry>
        <box size="0.15239999999999998 0.2794 0.001"/>
      </geometry>
    </collision>
  </link>
  <link name="pod_bin_4m_right">
    <inertial>
      <mass value="0.01"/>
      <inertia ixx="0.0002835" ixy="0.0" ixz="0.0" iyy="0.0002835" iyz="0.0" izz="0.000324"/>
    </inertial>
    <visual>
      <origin xyz="0.07619999999999999 0.1397 -0.0005"/>
      <geometry>
        <box size="0.15239999999999998 0.2794 0.001"/>
      </geometry>
      <material name="yellow_fabric"/>
    </visual>
    <collision>
      <origin xyz="0.07619999999999999 0.1397 -0.0005"/>
      <geometry>
        <box size="0.15239999999999998 0.2794 0.001"/>
      </geometry>
    </collision>
  </link>
  <link name="pod_bin_4m_top">
    <inertial>
      <mass value="0.01"/>
      <inertia ixx="0.0002835" ixy="0.0" ixz="0.0" iyy="0.0002835" iyz="0.0" izz="0.000324"/>
    </inertial>
    <visual>
      <origin xyz="0.1143 0.07619999999999999 -0.0005"/>
      <geometry>
        <box size="0.2286 0.15239999999999998 0.001"/>
      </geometry>
      <material name="yellow_fabric"/>
    </visual>
    <collision>
      <origin xyz="0.1143 0.07619999999999999 -0.0005"/>
      <geometry>
        <box size="0.2286 0.15239999999999998 0.001"/>
      </geometry>
    </collision>
  </link>
  <link name="pod_bin_4m_back">
    <inertial>
      <mass value="0.01"/>
      <inertia ixx="0.0002835" ixy="0.0" ixz="0.0" iyy="0.0002835" iyz="0.0" izz="0.000324"/>
    </inertial>
    <visual>
      <origin xyz="0.1143 0.1397 -0.0005"/>
      <geometry>
        <box size="0.2286 0.2794 0.001"/>
      </geometry>
      <material name="yellow_fabric"/>
    </visual>
    <collision>
      <origin xyz="0.1143 0.1397 -0.0005"/>
      <geometry>
        <box size="0.2286 0.2794 0.001"/>
      </geometry>
    </collision>
  </link>
  <link name="pod_bin_4m_flap">
    <inertial>
      <mass value="0.01"/>
      <inertia ixx="0.0002835" ixy="0.0" ixz="0.0" iyy="0.0002835" iyz="0.0" izz="0.000324"/>
    </inertial>
    <visual>
      <origin xyz="0.1143 0.0127 -0.0005"/>
      <geometry>
        <box size="0.2286 0.0254 0.001"/>
      </geometry>
      <material name="yellow_fabric"/>
    </visual>
    <collision>
      <origin xyz="0.1143 0.0127 -0.0005"/>
      <geometry>
        <box size="0.2286 0.0254 0.001"/>
      </geometry>
    </collision>
  </link>
  <joint name="pod_bin_4m_pod_bin_4m_bottom" type="fixed">
    <parent link="pod_bin_4m"/>
    <child link="pod_bin_4m_bottom"/>
  </joint>
  <joint name="pod_bin_4m_pod_bin_4m_left" type="fixed">
    <origin rpy="1.5707963267948966 0 1.5707963267948966 " xyz="0 0 0"/>
    <parent link="pod_bin_4m"/>
    <child link="pod_bin_4m_left"/>
  </joint>
  <joint name="pod_bin_4m_pod_bin_4m_right" type="fixed">
    <origin rpy="1.5707963267948966 0 1.5707963267948966 " xyz="0.2286 0 0"/>
    <parent link="pod_bin_4m"/>
    <child link="pod_bin_4m_right"/>
  </joint>
  <joint name="pod_bin_4m_pod_bin_4m_top" type="fixed">
    <origin rpy="0 0 0" xyz="0 0 0.2794"/>
    <parent link="pod_bin_4m"/>
    <child link="pod_bin_4m_top"/>
  </joint>
  <joint name="pod_bin_4m_pod_bin_4m_back" type="fixed">
    <origin rpy="1.5707963267948966 0 0" xyz="0 0.15239999999999998 0"/>
    <parent link="pod_bin_4m"/>
    <child link="pod_bin_4m_back"/>
  </joint>
  <joint name="pod_bin_4m_pod_bin_4m_flap" type="fixed">
    <origin rpy="1.5707963267948966 0 0" xyz="0 0 0"/>
    <parent link="pod_bin_4m"/>
    <child link="pod_bin_4m_flap"/>
  </joint>
  <joint name="pod_shelf_m_pod_bin_4m_joint" type="fixed">
    <origin xyz="0.6858 0 0"/>
    <parent link="pod_shelf_m"/>
    <child link="pod_bin_4m"/>
  </joint>
  <joint name="pod_fabric_base_pod_shelf_m_joint" type="fixed">
    <origin xyz="0 0 1.9494499999999997"/>
    <parent link="pod_fabric_base"/>
    <child link="pod_shelf_m"/>
  </joint>
  <!-- Front left corner -->
  <!-- Layers, frame at bottom left of each bin -->
</robot>
